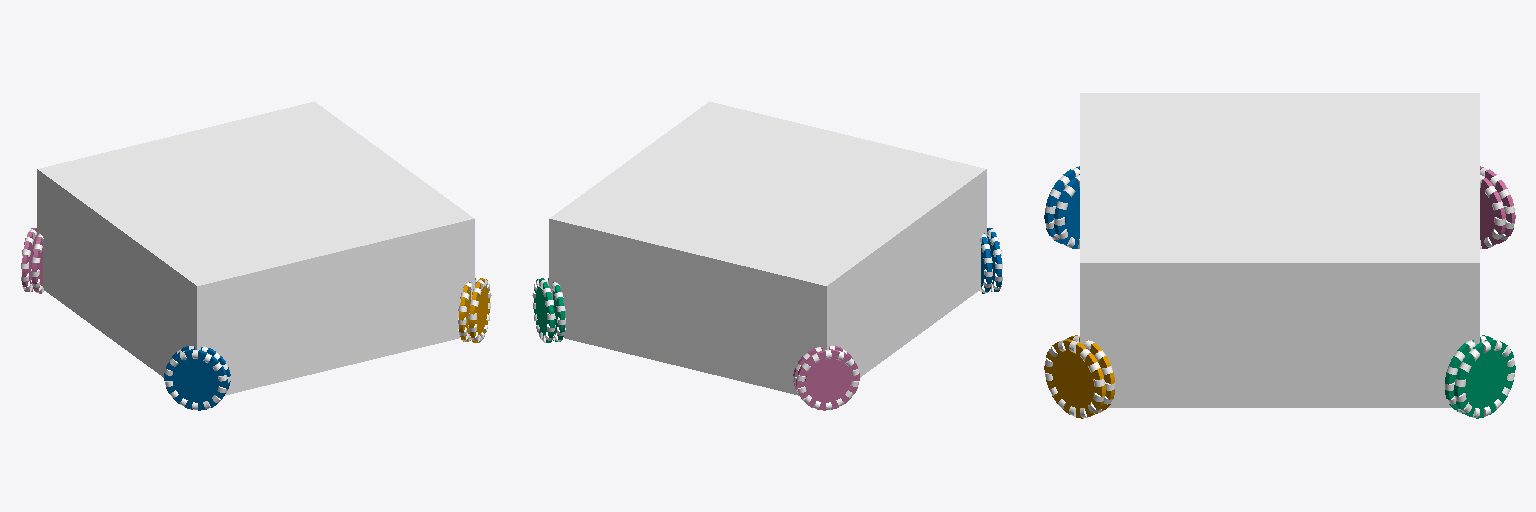
--- What the picture shows (computed from the rendered views, not written in the file) ---
3 views of the same robot in one strip: view 1: azimuth 30°, elevation 25°; view 2: azimuth 150°, elevation 25°; view 3: azimuth 270°, elevation 25° (orthographic).
Model ul_omnibot with 122 links and 121 joints (116 continuous, 5 fixed), rooted at base_link, posed every joint at zero.
Visible links, largest first — view 1: chassis, RR_wheel_link, FR_wheel_link, RL_wheel_link; view 2: chassis, RL_wheel_link, FL_wheel_link, RR_wheel_link; view 3: chassis, FL_wheel_link, FR_wheel_link, RL_wheel_link, RR_wheel_link.
Link boxes in pixels (left/top/right/bottom): chassis: left=37, top=101, right=474, bottom=395; RR_wheel_link: left=164, top=346, right=230, bottom=410; FR_wheel_link: left=459, top=278, right=489, bottom=342; RL_wheel_link: left=22, top=228, right=42, bottom=293; chassis: left=549, top=101, right=986, bottom=395; RL_wheel_link: left=793, top=346, right=859, bottom=410; FL_wheel_link: left=534, top=278, right=564, bottom=342; RR_wheel_link: left=981, top=228, right=1001, bottom=293; chassis: left=1080, top=93, right=1479, bottom=407; FL_wheel_link: left=1445, top=335, right=1515, bottom=418; FR_wheel_link: left=1044, top=335, right=1114, bottom=418; RL_wheel_link: left=1480, top=166, right=1515, bottom=248; RR_wheel_link: left=1044, top=166, right=1079, bottom=248.
Bounding box of the posed robot: 0.8828 × 0.8828 × 0.3127 m (x, y, z).
Meshes: 2 distinct files referenced, 116 mesh visuals loaded (2 Collada DAE).

URDF robot description (ul_omnibot):
<?xml version="1.0" ?>
<!-- =================================================================================== -->
<!-- |    This document was autogenerated by xacro from ul_omnibot.urdf.xacro          | -->
<!-- |    EDITING THIS FILE BY HAND IS NOT RECOMMENDED                                 | -->
<!-- =================================================================================== -->
<robot name="ul_omnibot" xmlns:xacro="http://www.ros.org/wiki/xacro">
  <!-- Specify some standard inertial calculations https://en.wikipedia.org/wiki/List_of_moments_of_inertia -->
  <!-- These make use of xacro's mathematical functionality -->
  <!--materials-->
  <material name="white">
    <color rgba="1. 1. 1. 1."/>
  </material>
  <material name="red">
    <color rgba="1 0.2 0.2 1"/>
  </material>
  <material name="blue">
    <color rgba="0.2 0.2 1 1"/>
  </material>
  <material name="grey">
    <color rgba="0.5 0.5 0.5 1."/>
  </material>
  <!---->
  <!--BASE-->
  <link name="base_link">
        </link>
  <!--CHASSIS-->
  <joint name="chassis_joint" type="fixed">
    <parent link="base_link"/>
    <child link="chassis"/>
    <origin xyz="-0.375 0.0 0.0"/>
  </joint>
  <link name="chassis">
    <visual>
      <origin xyz="0.375 0.0 0.15"/>
      <geometry>
        <box size="0.75 0.75 0.3"/>
      </geometry>
      <material name="white"/>
    </visual>
    <collision>
      <origin xyz="0.375 0.0 0.15"/>
      <geometry>
        <box size="0.75 0.75 0.3"/>
      </geometry>
    </collision>
    <inertial>
      <origin rpy="0.0 0.0 0.0" xyz="0.375 0.0 0.15"/>
      <mass value="100"/>
      <inertia ixx="5.437499999999999" ixy="0.0" ixz="0.0" iyy="5.437499999999999" iyz="0.0" izz="9.374999999999998"/>
    </inertial>
  </link>
  <!-- Gazebo colors -->
  <gazebo reference="chassis">
    <material>Gazebo/White</material>
  </gazebo>
  <joint name="FL_wheel_joint" type="continuous">
    <origin rpy="1.5707963267948966 0.0 2.356194490192345" xyz="0.375 0.375 0.0635"/>
    <parent link="base_link"/>
    <child link="FL_wheel_link"/>
    <limit effort="100" velocity="100"/>
    <axis xyz="0.0 0.0 -1."/>
  </joint>
  <link name="FL_wheel_link">
    <visual>
      <geometry>
        <mesh filename="package://ul_omnibot/description/meshes/hub.dae"/>
      </geometry>
    </visual>
    <collision>
      <geometry>
        <mesh filename="package://ul_omnibot/description/meshes/hub.stl"/>
      </geometry>
    </collision>
    <inertial>
      <origin xyz="0.0 -0.011 -0.0"/>
      <mass value="0.5"/>
      <inertia ixx="0.166667" ixy="0" ixz="0" iyy="0.166667" iyz="0" izz="0.166667"/>
    </inertial>
    <surface>
      <friction>
        <ode>
          <mu1>1</mu1>
          <mu2>1</mu2>
          <kp>1e15</kp>
          <kd>1e13</kd>
        </ode>
      </friction>
      <bounce>
        <restitution_coefficient>0</restitution_coefficient>
        <threshold>1e+06</threshold>
      </bounce>
      <contact>
        <ode>
          <max_vel>10</max_vel>
        </ode>
      </contact>
    </surface>
  </link>
  <joint name="FL_roller_group_joint" type="fixed">
    <origin rpy="-1.5707963267948966 0.0 0" xyz="0 0 0"/>
    <!-- <limit effort="1000.0" lower="0.0" upper="0.0" velocity="0.0"/>
                <axis xyz="0 0 0"/> -->
    <parent link="FL_wheel_link"/>
    <child link="FL_roller_group_link"/>
  </joint>
  <link name="FL_roller_group_link">
    <inertial>
      <mass value="0.00001"/>
      <inertia ixx="4.000000000000001e-12" ixy="0.0" ixz="0.0" iyy="4.000000000000001e-12" iyz="0.0" izz="4.000000000000001e-12"/>
      <origin xyz="0.0 0.0 0.0"/>
    </inertial>
  </link>
  <gazebo reference="FL_roller_group_link">
    <selfCollide>false</selfCollide>
    <material>Gazebo/Red</material>
  </gazebo>
  <joint name="FL_r1_roller_joint" type="continuous">
    <origin rpy="0 0 0" xyz="0 -0.0127 0.066041"/>
    <parent link="FL_roller_group_link"/>
    <child link="FL_r1_roller_link"/>
    <axis xyz="1 0 0"/>
  </joint>
  <link name="FL_r1_roller_link">
    <visual>
      <geometry>
        <mesh filename="package://ul_omnibot/description/meshes/roller.dae"/>
      </geometry>
      <material name="white"/>
    </visual>
    <collision>
      <max_contacts>10</max_contacts>
      <geometry>
        <mesh filename="package://ul_omnibot/description/meshes/roller.stl"/>
      </geometry>
    </collision>
    <inertial>
      <origin xyz="0.0 0.0 0.0"/>
      <mass value="0.009"/>
      <inertia ixx="0.166667" ixy="0" ixz="0" iyy="0.166667" iyz="0" izz="0.166667"/>
    </inertial>
    <surface>
      <friction>
        <ode>
          <mu>1</mu>
          <mu2>1</mu2>
          <kp>1e15</kp>
          <kd>1e13</kd>
        </ode>
        <torsional>
          <coefficient>1</coefficient>
          <patch_radius>0</patch_radius>
          <surface_radius>0</surface_radius>
          <use_patch_radius>1</use_patch_radius>
          <ode>
            <slip>0</slip>
          </ode>
        </torsional>
      </friction>
      <bounce>
        <restitution_coefficient>0</restitution_coefficient>
        <threshold>1e+06</threshold>
      </bounce>
      <contact>
        <ode>
          <max_vel>10</max_vel>
        </ode>
      </contact>
    </surface>
  </link>
  <joint name="FL_r2_roller_joint" type="continuous">
    <origin rpy="-3.14106 1.34635 -3.14117" xyz="0.064262 -0.0127 -0.014731"/>
    <parent link="FL_roller_group_link"/>
    <child link="FL_r2_roller_link"/>
    <axis xyz="1 0 0"/>
  </joint>
  <link name="FL_r2_roller_link">
    <visual>
      <geometry>
        <mesh filename="package://ul_omnibot/description/meshes/roller.dae"/>
      </geometry>
      <material name="white"/>
    </visual>
    <collision>
      <max_contacts>10</max_contacts>
      <geometry>
        <mesh filename="package://ul_omnibot/description/meshes/roller.stl"/>
      </geometry>
    </collision>
    <inertial>
      <origin xyz="0.0 0.0 0.0"/>
      <mass value="0.009"/>
      <inertia ixx="0.166667" ixy="0" ixz="0" iyy="0.166667" iyz="0" izz="0.166667"/>
    </inertial>
    <surface>
      <friction>
        <ode>
          <mu>1</mu>
          <mu2>1</mu2>
          <kp>1e15</kp>
          <kd>1e13</kd>
        </ode>
        <torsional>
          <coefficient>1</coefficient>
          <patch_radius>0</patch_radius>
          <surface_radius>0</surface_radius>
          <use_patch_radius>1</use_patch_radius>
          <ode>
            <slip>0</slip>
          </ode>
        </torsional>
      </friction>
      <bounce>
        <restitution_coefficient>0</restitution_coefficient>
        <threshold>1e+06</threshold>
      </bounce>
      <contact>
        <ode>
          <max_vel>10</max_vel>
        </ode>
      </contact>
    </surface>
  </link>
  <joint name="FL_r3_roller_joint" type="continuous">
    <origin rpy="-3.14106 -1.346396852 3.14117" xyz="-0.064262 -0.0127 -0.014731"/>
    <parent link="FL_roller_group_link"/>
    <child link="FL_r3_roller_link"/>
    <axis xyz="1 0 0"/>
  </joint>
  <link name="FL_r3_roller_link">
    <visual>
      <geometry>
        <mesh filename="package://ul_omnibot/description/meshes/roller.dae"/>
      </geometry>
      <material name="white"/>
    </visual>
    <collision>
      <max_contacts>10</max_contacts>
      <geometry>
        <mesh filename="package://ul_omnibot/description/meshes/roller.stl"/>
      </geometry>
    </collision>
    <inertial>
      <origin xyz="0.0 0.0 0.0"/>
      <mass value="0.009"/>
      <inertia ixx="0.166667" ixy="0" ixz="0" iyy="0.166667" iyz="0" izz="0.166667"/>
    </inertial>
    <surface>
      <friction>
        <ode>
          <mu>1</mu>
          <mu2>1</mu2>
          <kp>1e15</kp>
          <kd>1e13</kd>
        </ode>
        <torsional>
          <coefficient>1</coefficient>
          <patch_radius>0</patch_radius>
          <surface_radius>0</surface_radius>
          <use_patch_radius>1</use_patch_radius>
          <ode>
            <slip>0</slip>
          </ode>
        </torsional>
      </friction>
      <bounce>
        <restitution_coefficient>0</restitution_coefficient>
        <threshold>1e+06</threshold>
      </bounce>
      <contact>
        <ode>
          <max_vel>10</max_vel>
        </ode>
      </contact>
    </surface>
  </link>
  <joint name="FL_r4_roller_joint" type="continuous">
    <origin rpy="-3.14134 -0.897624 3.14147" xyz="-0.051562 -0.0127 -0.041147"/>
    <parent link="FL_roller_group_link"/>
    <child link="FL_r4_roller_link"/>
    <axis xyz="1 0 0"/>
  </joint>
  <link name="FL_r4_roller_link">
    <visual>
      <geometry>
        <mesh filename="package://ul_omnibot/description/meshes/roller.dae"/>
      </geometry>
      <material name="white"/>
    </visual>
    <collision>
      <max_contacts>10</max_contacts>
      <geometry>
        <mesh filename="package://ul_omnibot/description/meshes/roller.stl"/>
      </geometry>
    </collision>
    <inertial>
      <origin xyz="0.0 0.0 0.0"/>
      <mass value="0.009"/>
      <inertia ixx="0.166667" ixy="0" ixz="0" iyy="0.166667" iyz="0" izz="0.166667"/>
    </inertial>
    <surface>
      <friction>
        <ode>
          <mu>1</mu>
          <mu2>1</mu2>
          <kp>1e15</kp>
          <kd>1e13</kd>
        </ode>
        <torsional>
          <coefficient>1</coefficient>
          <patch_radius>0</patch_radius>
          <surface_radius>0</surface_radius>
          <use_patch_radius>1</use_patch_radius>
          <ode>
            <slip>0</slip>
          </ode>
        </torsional>
      </friction>
      <bounce>
        <restitution_coefficient>0</restitution_coefficient>
        <threshold>1e+06</threshold>
      </bounce>
      <contact>
        <ode>
          <max_vel>10</max_vel>
        </ode>
      </contact>
    </surface>
  </link>
  <joint name="FL_r5_roller_joint" type="continuous">
    <origin rpy="-3.14134 0.897624 -3.14147" xyz="0.051562 -0.0127 -0.041147"/>
    <parent link="FL_roller_group_link"/>
    <child link="FL_r5_roller_link"/>
    <axis xyz="1 0 0"/>
  </joint>
  <link name="FL_r5_roller_link">
    <visual>
      <geometry>
        <mesh filename="package://ul_omnibot/description/meshes/roller.dae"/>
      </geometry>
      <material name="white"/>
    </visual>
    <collision>
      <max_contacts>10</max_contacts>
      <geometry>
        <mesh filename="package://ul_omnibot/description/meshes/roller.stl"/>
      </geometry>
    </collision>
    <inertial>
      <origin xyz="0.0 0.0 0.0"/>
      <mass value="0.009"/>
      <inertia ixx="0.166667" ixy="0" ixz="0" iyy="0.166667" iyz="0" izz="0.166667"/>
    </inertial>
    <surface>
      <friction>
        <ode>
          <mu>1</mu>
          <mu2>1</mu2>
          <kp>1e15</kp>
          <kd>1e13</kd>
        </ode>
        <torsional>
          <coefficient>1</coefficient>
          <patch_radius>0</patch_radius>
          <surface_radius>0</surface_radius>
          <use_patch_radius>1</use_patch_radius>
          <ode>
            <slip>0</slip>
          </ode>
        </torsional>
      </friction>
      <bounce>
        <restitution_coefficient>0</restitution_coefficient>
        <threshold>1e+06</threshold>
      </bounce>
      <contact>
        <ode>
          <max_vel>10</max_vel>
        </ode>
      </contact>
    </surface>
  </link>
  <joint name="FL_r6_roller_joint" type="continuous">
    <origin rpy="-3.14139 -0.448725 3.14155" xyz="-0.028702 -0.0127 -0.059435"/>
    <parent link="FL_roller_group_link"/>
    <child link="FL_r6_roller_link"/>
    <axis xyz="1 0 0"/>
  </joint>
  <link name="FL_r6_roller_link">
    <visual>
      <geometry>
        <mesh filename="package://ul_omnibot/description/meshes/roller.dae"/>
      </geometry>
      <material name="white"/>
    </visual>
    <collision>
      <max_contacts>10</max_contacts>
      <geometry>
        <mesh filename="package://ul_omnibot/description/meshes/roller.stl"/>
      </geometry>
    </collision>
    <inertial>
      <origin xyz="0.0 0.0 0.0"/>
      <mass value="0.009"/>
      <inertia ixx="0.166667" ixy="0" ixz="0" iyy="0.166667" iyz="0" izz="0.166667"/>
    </inertial>
    <surface>
      <friction>
        <ode>
          <mu>1</mu>
          <mu2>1</mu2>
          <kp>1e15</kp>
          <kd>1e13</kd>
        </ode>
        <torsional>
          <coefficient>1</coefficient>
          <patch_radius>0</patch_radius>
          <surface_radius>0</surface_radius>
          <use_patch_radius>1</use_patch_radius>
          <ode>
            <slip>0</slip>
          </ode>
        </torsional>
      </friction>
      <bounce>
        <restitution_coefficient>0</restitution_coefficient>
        <threshold>1e+06</threshold>
      </bounce>
      <contact>
        <ode>
          <max_vel>10</max_vel>
        </ode>
      </contact>
    </surface>
  </link>
  <joint name="FL_r7_roller_joint" type="continuous">
    <origin rpy="-3.14139 0.448793 -3.14155" xyz="0.028702 -0.0127 -0.059435"/>
    <parent link="FL_roller_group_link"/>
    <child link="FL_r7_roller_link"/>
    <axis xyz="1 0 0"/>
  </joint>
  <link name="FL_r7_roller_link">
    <visual>
      <geometry>
        <mesh filename="package://ul_omnibot/description/meshes/roller.dae"/>
      </geometry>
      <material name="white"/>
    </visual>
    <collision>
      <max_contacts>10</max_contacts>
      <geometry>
        <mesh filename="package://ul_omnibot/description/meshes/roller.stl"/>
      </geometry>
    </collision>
    <inertial>
      <origin xyz="0.0 0.0 0.0"/>
      <mass value="0.009"/>
      <inertia ixx="0.166667" ixy="0" ixz="0" iyy="0.166667" iyz="0" izz="0.166667"/>
    </inertial>
    <surface>
      <friction>
        <ode>
          <mu>1</mu>
          <mu2>1</mu2>
          <kp>1e15</kp>
          <kd>1e13</kd>
        </ode>
        <torsional>
          <coefficient>1</coefficient>
          <patch_radius>0</patch_radius>
          <surface_radius>0</surface_radius>
          <use_patch_radius>1</use_patch_radius>
          <ode>
            <slip>0</slip>
          </ode>
        </torsional>
      </friction>
      <bounce>
        <restitution_coefficient>0</restitution_coefficient>
        <threshold>1e+06</threshold>
      </bounce>
      <contact>
        <ode>
          <max_vel>10</max_vel>
        </ode>
      </contact>
    </surface>
  </link>
  <joint name="FL_r8_roller_joint" type="continuous">
    <origin rpy="0 0.220958 0" xyz="0.014478 0.0127 0.064515"/>
    <parent link="FL_roller_group_link"/>
    <child link="FL_r8_roller_link"/>
    <axis xyz="1 0 0"/>
  </joint>
  <link name="FL_r8_roller_link">
    <visual>
      <geometry>
        <mesh filename="package://ul_omnibot/description/meshes/roller.dae"/>
      </geometry>
      <material name="white"/>
    </visual>
    <collision>
      <max_contacts>10</max_contacts>
      <geometry>
        <mesh filename="package://ul_omnibot/description/meshes/roller.stl"/>
      </geometry>
    </collision>
    <inertial>
      <origin xyz="0.0 0.0 0.0"/>
      <mass value="0.009"/>
      <inertia ixx="0.166667" ixy="0" ixz="0" iyy="0.166667" iyz="0" izz="0.166667"/>
    </inertial>
    <surface>
      <friction>
        <ode>
          <mu>1</mu>
          <mu2>1</mu2>
          <kp>1e15</kp>
          <kd>1e13</kd>
        </ode>
        <torsional>
          <coefficient>1</coefficient>
          <patch_radius>0</patch_radius>
          <surface_radius>0</surface_radius>
          <use_patch_radius>1</use_patch_radius>
          <ode>
            <slip>0</slip>
          </ode>
        </torsional>
      </friction>
      <bounce>
        <restitution_coefficient>0</restitution_coefficient>
        <threshold>1e+06</threshold>
      </bounce>
      <contact>
        <ode>
          <max_vel>10</max_vel>
        </ode>
      </contact>
    </surface>
  </link>
  <joint name="FL_r9_roller_joint" type="continuous">
    <origin rpy="-3.1414 -0.220957 3.14157" xyz="-0.014478 0.0127 -0.064517"/>
    <parent link="FL_roller_group_link"/>
    <child link="FL_r9_roller_link"/>
    <axis xyz="1 0 0"/>
  </joint>
  <link name="FL_r9_roller_link">
    <visual>
      <geometry>
        <mesh filename="package://ul_omnibot/description/meshes/roller.dae"/>
      </geometry>
      <material name="white"/>
    </visual>
    <collision>
      <max_contacts>10</max_contacts>
      <geometry>
        <mesh filename="package://ul_omnibot/description/meshes/roller.stl"/>
      </geometry>
    </collision>
    <inertial>
      <origin xyz="0.0 0.0 0.0"/>
      <mass value="0.009"/>
      <inertia ixx="0.166667" ixy="0" ixz="0" iyy="0.166667" iyz="0" izz="0.166667"/>
    </inertial>
    <surface>
      <friction>
        <ode>
          <mu>1</mu>
          <mu2>1</mu2>
          <kp>1e15</kp>
          <kd>1e13</kd>
        </ode>
        <torsional>
          <coefficient>1</coefficient>
          <patch_radius>0</patch_radius>
          <surface_radius>0</surface_radius>
          <use_patch_radius>1</use_patch_radius>
          <ode>
            <slip>0</slip>
          </ode>
        </torsional>
      </friction>
      <bounce>
        <restitution_coefficient>0</restitution_coefficient>
        <threshold>1e+06</threshold>
      </bounce>
      <contact>
        <ode>
          <max_vel>10</max_vel>
        </ode>
      </contact>
    </surface>
  </link>
  <joint name="FL_r10_roller_joint" type="continuous">
    <origin rpy="-2.7e-05 0.669682 -7.6e-05" xyz="0.040894 0.0127 0.051815"/>
    <parent link="FL_roller_group_link"/>
    <child link="FL_r10_roller_link"/>
    <axis xyz="1 0 0"/>
  </joint>
  <link name="FL_r10_roller_link">
    <visual>
      <geometry>
        <mesh filename="package://ul_omnibot/description/meshes/roller.dae"/>
      </geometry>
      <material name="white"/>
    </visual>
    <collision>
      <max_contacts>10</max_contacts>
      <geometry>
        <mesh filename="package://ul_omnibot/description/meshes/roller.stl"/>
      </geometry>
    </collision>
    <inertial>
      <origin xyz="0.0 0.0 0.0"/>
      <mass value="0.009"/>
      <inertia ixx="0.166667" ixy="0" ixz="0" iyy="0.166667" iyz="0" izz="0.166667"/>
    </inertial>
    <surface>
      <friction>
        <ode>
          <mu>1</mu>
          <mu2>1</mu2>
          <kp>1e15</kp>
          <kd>1e13</kd>
        </ode>
        <torsional>
          <coefficient>1</coefficient>
          <patch_radius>0</patch_radius>
          <surface_radius>0</surface_radius>
          <use_patch_radius>1</use_patch_radius>
          <ode>
            <slip>0</slip>
          </ode>
        </torsional>
      </friction>
      <bounce>
        <restitution_coefficient>0</restitution_coefficient>
        <threshold>1e+06</threshold>
      </bounce>
      <contact>
        <ode>
          <max_vel>10</max_vel>
        </ode>
      </contact>
    </surface>
  </link>
  <joint name="FL_r11_roller_joint" type="continuous">
    <origin rpy="-3.14137 -0.669677 3.14152" xyz="-0.040894 0.0127 -0.051817"/>
    <parent link="FL_roller_group_link"/>
    <child link="FL_r11_roller_link"/>
    <axis xyz="1 0 0"/>
  </joint>
  <link name="FL_r11_roller_link">
    <visual>
      <geometry>
        <mesh filename="package://ul_omnibot/description/meshes/roller.dae"/>
      </geometry>
      <material name="white"/>
    </visual>
    <collision>
      <max_contacts>10</max_contacts>
      <geometry>
        <mesh filename="package://ul_omnibot/description/meshes/roller.stl"/>
      </geometry>
    </collision>
    <inertial>
      <origin xyz="0.0 0.0 0.0"/>
      <mass value="0.009"/>
      <inertia ixx="0.166667" ixy="0" ixz="0" iyy="0.166667" iyz="0" izz="0.166667"/>
    </inertial>
    <surface>
      <friction>
        <ode>
          <mu>1</mu>
          <mu2>1</mu2>
          <kp>1e15</kp>
          <kd>1e13</kd>
        </ode>
        <torsional>
          <coefficient>1</coefficient>
          <patch_radius>0</patch_radius>
          <surface_radius>0</surface_radius>
          <use_patch_radius>1</use_patch_radius>
          <ode>
            <slip>0</slip>
          </ode>
        </torsional>
      </friction>
      <bounce>
        <restitution_coefficient>0</restitution_coefficient>
        <threshold>1e+06</threshold>
      </bounce>
      <contact>
        <ode>
          <max_vel>10</max_vel>
        </ode>
      </contact>
    </surface>
  </link>
  <joint name="FL_r12_roller_joint" type="continuous">
    <origin rpy="-0.000124 1.11858 -0.000198" xyz="0.059436 0.0127 0.028955"/>
    <parent link="FL_roller_group_link"/>
    <child link="FL_r12_roller_link"/>
    <axis xyz="1 0 0"/>
  </joint>
  <link name="FL_r12_roller_link">
    <visual>
      <geometry>
        <mesh filename="package://ul_omnibot/description/meshes/roller.dae"/>
      </geometry>
      <material name="white"/>
    </visual>
    <collision>
      <max_contacts>10</max_contacts>
      <geometry>
        <mesh filename="package://ul_omnibot/description/meshes/roller.stl"/>
      </geometry>
    </collision>
    <inertial>
      <origin xyz="0.0 0.0 0.0"/>
      <mass value="0.009"/>
      <inertia ixx="0.166667" ixy="0" ixz="0" iyy="0.166667" iyz="0" izz="0.166667"/>
    </inertial>
    <surface>
      <friction>
        <ode>
          <mu>1</mu>
          <mu2>1</mu2>
          <kp>1e15</kp>
          <kd>1e13</kd>
        </ode>
        <torsional>
          <coefficient>1</coefficient>
          <patch_radius>0</patch_radius>
          <surface_radius>0</surface_radius>
          <use_patch_radius>1</use_patch_radius>
          <ode>
            <slip>0</slip>
          </ode>
        </torsional>
      </friction>
      <bounce>
        <restitution_coefficient>0</restitution_coefficient>
        <threshold>1e+06</threshold>
      </bounce>
      <contact>
        <ode>
          <max_vel>10</max_vel>
        </ode>
      </contact>
    </surface>
  </link>
  <joint name="FL_r13_roller_joint" type="continuous">
    <origin rpy="-3.14128 -1.11858 3.14139" xyz="-0.059436 0.0127 -0.028957"/>
    <parent link="FL_roller_group_link"/>
    <child link="FL_r13_roller_link"/>
    <axis xyz="1 0 0"/>
  </joint>
  <link name="FL_r13_roller_link">
    <visual>
      <geometry>
        <mesh filename="package://ul_omnibot/description/meshes/roller.dae"/>
      </geometry>
      <material name="white"/>
    </visual>
    <collision>
      <max_contacts>10</max_contacts>
      <geometry>
        <mesh filename="package://ul_omnibot/description/meshes/roller.stl"/>
      </geometry>
    </collision>
    <inertial>
      <origin xyz="0.0 0.0 0.0"/>
      <mass value="0.009"/>
      <inertia ixx="0.166667" ixy="0" ixz="0" iyy="0.166667" iyz="0" izz="0.166667"/>
    </inertial>
    <surface>
      <friction>
        <ode>
          <mu>1</mu>
          <mu2>1</mu2>
          <kp>1e15</kp>
          <kd>1e13</kd>
        </ode>
        <torsional>
          <coefficient>1</coefficient>
          <patch_radius>0</patch_radius>
          <surface_radius>0</surface_radius>
          <use_patch_radius>1</use_patch_radius>
          <ode>
            <slip>0</slip>
          </ode>
        </torsional>
      </friction>
      <bounce>
        <restitution_coefficient>0</restitution_coefficient>
        <threshold>1e+06</threshold>
      </bounce>
      <contact>
        <ode>
          <max_vel>10</max_vel>
        </ode>
      </contact>
    </surface>
  </link>
  <joint name="FL_r14_roller_joint" type="continuous">
    <origin rpy="-0.785326 1.57066 -0.785422" xyz="0.06604 0.0127 -0.000001"/>
    <parent link="FL_roller_group_link"/>
    <child link="FL_r14_roller_link"/>
    <axis xyz="1 0 0"/>
  </joint>
  <link name="FL_r14_roller_link">
    <visual>
      <geometry>
        <mesh filename="package://ul_omnibot/description/meshes/roller.dae"/>
      </geometry>
      <material name="white"/>
    </visual>
    <collision>
      <max_contacts>10</max_contacts>
      <geometry>
        <mesh filename="package://ul_omnibot/description/meshes/roller.stl"/>
      </geometry>
    </collision>
    <inertial>
      <origin xyz="0.0 0.0 0.0"/>
      <mass value="0.009"/>
      <inertia ixx="0.166667" ixy="0" ixz="0" iyy="0.166667" iyz="0" izz="0.166667"/>
    </inertial>
    <surface>
      <friction>
        <ode>
          <mu>1</mu>
          <mu2>1</mu2>
          <kp>1e15</kp>
          <kd>1e13</kd>
        </ode>
        <torsional>
          <coefficient>1</coefficient>
          <patch_radius>0</patch_radius>
          <surface_radius>0</surface_radius>
          <use_patch_radius>1</use_patch_radius>
          <ode>
            <slip>0</slip>
          </ode>
        </torsional>
      </friction>
      <bounce>
        <restitution_coefficient>0</restitution_coefficient>
        <threshold>1e+06</threshold>
      </bounce>
      <contact>
        <ode>
          <max_vel>10</max_vel>
        </ode>
      </contact>
    </surface>
  </link>
  <joint name="FL_r15_roller_joint" type="continuous">
    <origin rpy="-0.785326 -1.57066 0.785422" xyz="-0.06604 0.0127 -0.000001"/>
    <parent link="FL_roller_group_link"/>
    <child link="FL_r15_roller_link"/>
    <axis xyz="1 0 0"/>
  </joint>
  <link name="FL_r15_roller_link">
    <visual>
      <geometry>
        <mesh filename="package://ul_omnibot/description/meshes/roller.dae"/>
      </geometry>
      <material name="white"/>
    </visual>
    <collision>
      <max_contacts>10</max_contacts>
      <geometry>
        <mesh filename="package://ul_omnibot/description/meshes/roller.stl"/>
      </geometry>
    </collision>
    <inertial>
      <origin xyz="0.0 0.0 0.0"/>
      <mass value="0.009"/>
      <inertia ixx="0.166667" ixy="0" ixz="0" iyy="0.166667" iyz="0" izz="0.166667"/>
    </inertial>
    <surface>
      <friction>
        <ode>
          <mu>1</mu>
          <mu2>1</mu2>
          <kp>1e15</kp>
          <kd>1e13</kd>
        </ode>
        <torsional>
          <coefficient>1</coefficient>
          <patch_radius>0</patch_radius>
          <surface_radius>0</surface_radius>
          <use_patch_radius>1</use_patch_radius>
          <ode>
            <slip>0</slip>
          </ode>
        </torsional>
      </friction>
      <bounce>
        <restitution_coefficient>0</restitution_coefficient>
        <threshold>1e+06</threshold>
      </bounce>
      <contact>
        <ode>
          <max_vel>10</max_vel>
        </ode>
      </contact>
    </surface>
  </link>
  <joint name="FL_r16_roller_joint" type="continuous">
    <origin rpy="-3e-06 -0.22794 2.2e-05" xyz="-0.014986 0.0127 0.064261"/>
    <parent link="FL_roller_group_link"/>
    <child link="FL_r16_roller_link"/>
    <axis xyz="1 0 0"/>
  </joint>
  <link name="FL_r16_roller_link">
    <visual>
      <geometry>
        <mesh filename="package://ul_omnibot/description/meshes/roller.dae"/>
      </geometry>
      <material name="white"/>
    </visual>
    <collision>
      <max_contacts>10</max_contacts>
      <geometry>
        <mesh filename="package://ul_omnibot/description/meshes/roller.stl"/>
      </geometry>
    </collision>
    <inertial>
      <origin xyz="0.0 0.0 0.0"/>
      <mass value="0.009"/>
      <inertia ixx="0.166667" ixy="0" ixz="0" iyy="0.166667" iyz="0" izz="0.166667"/>
    </inertial>
    <surface>
      <friction>
        <ode>
          <mu>1</mu>
          <mu2>1</mu2>
          <kp>1e15</kp>
          <kd>1e13</kd>
        </ode>
        <torsional>
          <coefficient>1</coefficient>
          <patch_radius>0</patch_radius>
          <surface_radius>0</surface_radius>
          <use_patch_radius>1</use_patch_radius>
          <ode>
            <slip>0</slip>
          </ode>
        </torsional>
      </friction>
      <bounce>
        <restitution_coefficient>0</restitution_coefficient>
        <threshold>1e+06</threshold>
      </bounce>
      <contact>
        <ode>
          <max_vel>10</max_vel>
        </ode>
      </contact>
    </surface>
  </link>
  <joint name="FL_r17_roller_joint" type="continuous">
    <origin rpy="-3.1414 0.227937 -3.14157" xyz="0.014986 0.0127 -0.064263"/>
    <parent link="FL_roller_group_link"/>
    <child link="FL_r17_roller_link"/>
    <axis xyz="1 0 0"/>
  </joint>
  <link name="FL_r17_roller_link">
    <visual>
      <geometry>
        <mesh filename="package://ul_omnibot/description/meshes/roller.dae"/>
      </geometry>
      <material name="white"/>
    </visual>
    <collision>
      <max_contacts>10</max_contacts>
      <geometry>
        <mesh filename="package://ul_omnibot/description/meshes/roller.stl"/>
      </geometry>
    </collision>
    <inertial>
      <origin xyz="0.0 0.0 0.0"/>
      <mass value="0.009"/>
      <inertia ixx="0.166667" ixy="0" ixz="0" iyy="0.166667" iyz="0" izz="0.166667"/>
    </inertial>
    <surface>
      <friction>
        <ode>
          <mu>1</mu>
          <mu2>1</mu2>
          <kp>1e15</kp>
          <kd>1e13</kd>
        </ode>
        <torsional>
          <coefficient>1</coefficient>
          <patch_radius>0</patch_radius>
          <surface_radius>0</surface_radius>
          <use_patch_radius>1</use_patch_radius>
          <ode>
            <slip>0</slip>
          </ode>
        </torsional>
      </friction>
      <bounce>
        <restitution_coefficient>0</restitution_coefficient>
        <threshold>1e+06</threshold>
      </bounce>
      <contact>
        <ode>
          <max_vel>10</max_vel>
        </ode>
      </contact>
    </surface>
  </link>
  <joint name="FL_r18_roller_joint" type="continuous">
    <origin rpy="-2.7e-05 -0.676664 7.7e-05" xyz="-0.041402 0.0127 0.051561"/>
    <parent link="FL_roller_group_link"/>
    <child link="FL_r18_roller_link"/>
    <axis xyz="1 0 0"/>
  </joint>
  <link name="FL_r18_roller_link">
    <visual>
      <geometry>
        <mesh filename="package://ul_omnibot/description/meshes/roller.dae"/>
      </geometry>
      <material name="white"/>
    </visual>
    <collision>
      <max_contacts>10</max_contacts>
      <geometry>
        <mesh filename="package://ul_omnibot/description/meshes/roller.stl"/>
      </geometry>
    </collision>
    <inertial>
      <origin xyz="0.0 0.0 0.0"/>
      <mass value="0.009"/>
      <inertia ixx="0.166667" ixy="0" ixz="0" iyy="0.166667" iyz="0" izz="0.166667"/>
    </inertial>
    <surface>
      <friction>
        <ode>
          <mu>1</mu>
          <mu2>1</mu2>
          <kp>1e15</kp>
          <kd>1e13</kd>
        </ode>
        <torsional>
          <coefficient>1</coefficient>
          <patch_radius>0</patch_radius>
          <surface_radius>0</surface_radius>
          <use_patch_radius>1</use_patch_radius>
          <ode>
            <slip>0</slip>
          </ode>
        </torsional>
      </friction>
      <bounce>
        <restitution_coefficient>0</restitution_coefficient>
        <threshold>1e+06</threshold>
      </bounce>
      <contact>
        <ode>
          <max_vel>10</max_vel>
        </ode>
      </contact>
    </surface>
  </link>
  <joint name="FL_r19_roller_joint" type="continuous">
    <origin rpy="-3.14137 0.676607 -3.14152" xyz="0.041402 0.0127 -0.051563"/>
    <parent link="FL_roller_group_link"/>
    <child link="FL_r19_roller_link"/>
    <axis xyz="1 0 0"/>
  </joint>
  <link name="FL_r19_roller_link">
    <visual>
      <geometry>
        <mesh filename="package://ul_omnibot/description/meshes/roller.dae"/>
      </geometry>
      <material name="white"/>
    </visual>
    <collision>
      <max_contacts>10</max_contacts>
      <geometry>
        <mesh filename="package://ul_omnibot/description/meshes/roller.stl"/>
      </geometry>
    </collision>
    <inertial>
      <origin xyz="0.0 0.0 0.0"/>
      <mass value="0.009"/>
      <inertia ixx="0.166667" ixy="0" ixz="0" iyy="0.166667" iyz="0" izz="0.166667"/>
    </inertial>
    <surface>
      <friction>
        <ode>
          <mu>1</mu>
          <mu2>1</mu2>
          <kp>1e15</kp>
          <kd>1e13</kd>
        </ode>
        <torsional>
          <coefficient>1</coefficient>
          <patch_radius>0</patch_radius>
          <surface_radius>0</surface_radius>
          <use_patch_radius>1</use_patch_radius>
          <ode>
            <slip>0</slip>
          </ode>
        </torsional>
      </friction>
      <bounce>
        <restitution_coefficient>0</restitution_coefficient>
        <threshold>1e+06</threshold>
      </bounce>
      <contact>
        <ode>
          <max_vel>10</max_vel>
        </ode>
      </contact>
    </surface>
  </link>
  <joint name="FL_r20_roller_joint" type="continuous">
    <origin rpy="-3.14123 1.1952 -3.14135" xyz="0.05969 0.0127 -0.028449"/>
    <parent link="FL_roller_group_link"/>
    <child link="FL_r20_roller_link"/>
    <axis xyz="1 0 0"/>
  </joint>
  <link name="FL_r20_roller_link">
    <visual>
      <geometry>
        <mesh filename="package://ul_omnibot/description/meshes/roller.dae"/>
      </geometry>
      <material name="white"/>
    </visual>
    <collision>
      <max_contacts>10</max_contacts>
      <geometry>
        <mesh filename="package://ul_omnibot/description/meshes/roller.stl"/>
      </geometry>
    </collision>
    <inertial>
      <origin xyz="0.0 0.0 0.0"/>
      <mass value="0.009"/>
      <inertia ixx="0.166667" ixy="0" ixz="0" iyy="0.166667" iyz="0" izz="0.166667"/>
    </inertial>
    <surface>
      <friction>
        <ode>
          <mu>1</mu>
          <mu2>1</mu2>
          <kp>1e15</kp>
          <kd>1e13</kd>
        </ode>
        <torsional>
          <coefficient>1</coefficient>
          <patch_radius>0</patch_radius>
          <surface_radius>0</surface_radius>
          <use_patch_radius>1</use_patch_radius>
          <ode>
            <slip>0</slip>
          </ode>
        </torsional>
      </friction>
      <bounce>
        <restitution_coefficient>0</restitution_coefficient>
        <threshold>1e+06</threshold>
      </bounce>
      <contact>
        <ode>
          <max_vel>10</max_vel>
        </ode>
      </contact>
    </surface>
  </link>
  <joint name="FL_r21_roller_joint" type="continuous">
    <origin rpy="-1.1e-05 -0.448724 4.6e-05" xyz="-0.028702 -0.0127 0.059437"/>
    <parent link="FL_roller_group_link"/>
    <child link="FL_r21_roller_link"/>
    <axis xyz="1 0 0"/>
  </joint>
  <link name="FL_r21_roller_link">
    <visual>
      <geometry>
        <mesh filename="package://ul_omnibot/description/meshes/roller.dae"/>
      </geometry>
      <material name="white"/>
    </visual>
    <collision>
      <max_contacts>10</max_contacts>
      <geometry>
        <mesh filename="package://ul_omnibot/description/meshes/roller.stl"/>
      </geometry>
    </collision>
    <inertial>
      <origin xyz="0.0 0.0 0.0"/>
      <mass value="0.009"/>
      <inertia ixx="0.166667" ixy="0" ixz="0" iyy="0.166667" iyz="0" izz="0.166667"/>
    </inertial>
    <surface>
      <friction>
        <ode>
          <mu>1</mu>
          <mu2>1</mu2>
          <kp>1e15</kp>
          <kd>1e13</kd>
        </ode>
        <torsional>
          <coefficient>1</coefficient>
          <patch_radius>0</patch_radius>
          <surface_radius>0</surface_radius>
          <use_patch_radius>1</use_patch_radius>
          <ode>
            <slip>0</slip>
          </ode>
        </torsional>
      </friction>
      <bounce>
        <restitution_coefficient>0</restitution_coefficient>
        <threshold>1e+06</threshold>
      </bounce>
      <contact>
        <ode>
          <max_vel>10</max_vel>
        </ode>
      </contact>
    </surface>
  </link>
  <joint name="FL_r22_roller_joint" type="continuous">
    <origin rpy="-0.000123 -1.11701 0.000198" xyz="-0.05969 0.0127 0.028447"/>
    <parent link="FL_roller_group_link"/>
    <child link="FL_r22_roller_link"/>
    <axis xyz="1 0 0"/>
  </joint>
  <link name="FL_r22_roller_link">
    <visual>
      <geometry>
        <mesh filename="package://ul_omnibot/description/meshes/roller.dae"/>
      </geometry>
      <material name="white"/>
    </visual>
    <collision>
      <max_contacts>10</max_contacts>
      <geometry>
        <mesh filename="package://ul_omnibot/description/meshes/roller.stl"/>
      </geometry>
    </collision>
    <inertial>
      <origin xyz="0.0 0.0 0.0"/>
      <mass value="0.009"/>
      <inertia ixx="0.166667" ixy="0" ixz="0" iyy="0.166667" iyz="0" izz="0.166667"/>
    </inertial>
    <surface>
      <friction>
        <ode>
          <mu>1</mu>
          <mu2>1</mu2>
          <kp>1e15</kp>
          <kd>1e13</kd>
        </ode>
        <torsional>
          <coefficient>1</coefficient>
          <patch_radius>0</patch_radius>
          <surface_radius>0</surface_radius>
          <use_patch_radius>1</use_patch_radius>
          <ode>
            <slip>0</slip>
          </ode>
        </torsional>
      </friction>
      <bounce>
        <restitution_coefficient>0</restitution_coefficient>
        <threshold>1e+06</threshold>
      </bounce>
      <contact>
        <ode>
          <max_vel>10</max_vel>
        </ode>
      </contact>
    </surface>
  </link>
  <joint name="FL_r23_roller_joint" type="continuous">
    <origin rpy="-1.1e-05 0.448724 -4.6e-05" xyz="0.028702 -0.0127 0.059437"/>
    <parent link="FL_roller_group_link"/>
    <child link="FL_r23_roller_link"/>
    <axis xyz="1 0 0"/>
  </joint>
  <link name="FL_r23_roller_link">
    <visual>
      <geometry>
        <mesh filename="package://ul_omnibot/description/meshes/roller.dae"/>
      </geometry>
      <material name="white"/>
    </visual>
    <collision>
      <max_contacts>10</max_contacts>
      <geometry>
        <mesh filename="package://ul_omnibot/description/meshes/roller.stl"/>
      </geometry>
    </collision>
    <inertial>
      <origin xyz="0.0 0.0 0.0"/>
      <mass value="0.009"/>
      <inertia ixx="0.166667" ixy="0" ixz="0" iyy="0.166667" iyz="0" izz="0.166667"/>
    </inertial>
    <surface>
      <friction>
        <ode>
          <mu>1</mu>
          <mu2>1</mu2>
          <kp>1e15</kp>
          <kd>1e13</kd>
        </ode>
        <torsional>
          <coefficient>1</coefficient>
          <patch_radius>0</patch_radius>
          <surface_radius>0</surface_radius>
          <use_patch_radius>1</use_patch_radius>
          <ode>
            <slip>0</slip>
          </ode>
        </torsional>
      </friction>
      <bounce>
        <restitution_coefficient>0</restitution_coefficient>
        <threshold>1e+06</threshold>
      </bounce>
      <contact>
        <ode>
          <max_vel>10</max_vel>
        </ode>
      </contact>
    </surface>
  </link>
  <joint name="FL_r24_roller_joint" type="continuous">
    <origin rpy="-5.8e-05 -0.897622 0.000121" xyz="-0.051562 -0.0127 0.041149"/>
    <parent link="FL_roller_group_link"/>
    <child link="FL_r24_roller_link"/>
    <axis xyz="1 0 0"/>
  </joint>
  <link name="FL_r24_roller_link">
    <visual>
      <geometry>
        <mesh filename="package://ul_omnibot/description/meshes/roller.dae"/>
      </geometry>
      <material name="white"/>
    </visual>
    <collision>
      <max_contacts>10</max_contacts>
      <geometry>
        <mesh filename="package://ul_omnibot/description/meshes/roller.stl"/>
      </geometry>
    </collision>
    <inertial>
      <origin xyz="0.0 0.0 0.0"/>
      <mass value="0.009"/>
      <inertia ixx="0.166667" ixy="0" ixz="0" iyy="0.166667" iyz="0" izz="0.166667"/>
    </inertial>
    <surface>
      <friction>
        <ode>
          <mu>1</mu>
          <mu2>1</mu2>
          <kp>1e15</kp>
          <kd>1e13</kd>
        </ode>
        <torsional>
          <coefficient>1</coefficient>
          <patch_radius>0</patch_radius>
          <surface_radius>0</surface_radius>
          <use_patch_radius>1</use_patch_radius>
          <ode>
            <slip>0</slip>
          </ode>
        </torsional>
      </friction>
      <bounce>
        <restitution_coefficient>0</restitution_coefficient>
        <threshold>1e+06</threshold>
      </bounce>
      <contact>
        <ode>
          <max_vel>10</max_vel>
        </ode>
      </contact>
    </surface>
  </link>
  <joint name="FL_r25_roller_joint" type="continuous">
    <origin rpy="-5.8e-05 0.897622 -0.000121" xyz="0.051562 -0.0127 0.041149"/>
    <parent link="FL_roller_group_link"/>
    <child link="FL_r25_roller_link"/>
    <axis xyz="1 0 0"/>
  </joint>
  <link name="FL_r25_roller_link">
    <visual>
      <geometry>
        <mesh filename="package://ul_omnibot/description/meshes/roller.dae"/>
      </geometry>
      <material name="white"/>
    </visual>
    <collision>
      <max_contacts>10</max_contacts>
      <geometry>
        <mesh filename="package://ul_omnibot/description/meshes/roller.stl"/>
      </geometry>
    </collision>
    <inertial>
      <origin xyz="0.0 0.0 0.0"/>
      <mass value="0.009"/>
      <inertia ixx="0.166667" ixy="0" ixz="0" iyy="0.166667" iyz="0" izz="0.166667"/>
    </inertial>
    <surface>
      <friction>
        <ode>
          <mu>1</mu>
          <mu2>1</mu2>
          <kp>1e15</kp>
          <kd>1e13</kd>
        </ode>
        <torsional>
          <coefficient>1</coefficient>
          <patch_radius>0</patch_radius>
          <surface_radius>0</surface_radius>
          <use_patch_radius>1</use_patch_radius>
          <ode>
            <slip>0</slip>
          </ode>
        </torsional>
      </friction>
      <bounce>
        <restitution_coefficient>0</restitution_coefficient>
        <threshold>1e+06</threshold>
      </bounce>
      <contact>
        <ode>
          <max_vel>10</max_vel>
        </ode>
      </contact>
    </surface>
  </link>
  <joint name="FL_r26_roller_joint" type="continuous">
    <origin rpy="-0.000337 -1.34635 0.000422" xyz="-0.064262 -0.0127 0.014733"/>
    <parent link="FL_roller_group_link"/>
    <child link="FL_r26_roller_link"/>
    <axis xyz="1 0 0"/>
  </joint>
  <link name="FL_r26_roller_link">
    <visual>
      <geometry>
        <mesh filename="package://ul_omnibot/description/meshes/roller.dae"/>
      </geometry>
      <material name="white"/>
    </visual>
    <collision>
      <max_contacts>10</max_contacts>
      <geometry>
        <mesh filename="package://ul_omnibot/description/meshes/roller.stl"/>
      </geometry>
    </collision>
    <inertial>
      <origin xyz="0.0 0.0 0.0"/>
      <mass value="0.009"/>
      <inertia ixx="0.166667" ixy="0" ixz="0" iyy="0.166667" iyz="0" izz="0.166667"/>
    </inertial>
    <surface>
      <friction>
        <ode>
          <mu>1</mu>
          <mu2>1</mu2>
          <kp>1e15</kp>
          <kd>1e13</kd>
        </ode>
        <torsional>
          <coefficient>1</coefficient>
          <patch_radius>0</patch_radius>
          <surface_radius>0</surface_radius>
          <use_patch_radius>1</use_patch_radius>
          <ode>
            <slip>0</slip>
          </ode>
        </torsional>
      </friction>
      <bounce>
        <restitution_coefficient>0</restitution_coefficient>
        <threshold>1e+06</threshold>
      </bounce>
      <contact>
        <ode>
          <max_vel>10</max_vel>
        </ode>
      </contact>
    </surface>
  </link>
  <joint name="FL_r27_roller_joint" type="continuous">
    <origin rpy="-0.000337 1.34635 -0.000422" xyz="0.064262 -0.0127 0.014733"/>
    <parent link="FL_roller_group_link"/>
    <child link="FL_r27_roller_link"/>
    <axis xyz="1 0 0"/>
  </joint>
  <link name="FL_r27_roller_link">
    <visual>
      <geometry>
        <mesh filename="package://ul_omnibot/description/meshes/roller.dae"/>
      </geometry>
      <material name="white"/>
    </visual>
    <collision>
      <max_contacts>10</max_contacts>
      <geometry>
        <mesh filename="package://ul_omnibot/description/meshes/roller.stl"/>
      </geometry>
    </collision>
    <inertial>
      <origin xyz="0.0 0.0 0.0"/>
      <mass value="0.009"/>
      <inertia ixx="0.166667" ixy="0" ixz="0" iyy="0.166667" iyz="0" izz="0.166667"/>
    </inertial>
    <surface>
      <friction>
        <ode>
          <mu>1</mu>
          <mu2>1</mu2>
          <kp>1e15</kp>
          <kd>1e13</kd>
        </ode>
        <torsional>
          <coefficient>1</coefficient>
          <patch_radius>0</patch_radius>
          <surface_radius>0</surface_radius>
          <use_patch_radius>1</use_patch_radius>
          <ode>
            <slip>0</slip>
          </ode>
        </torsional>
      </friction>
      <bounce>
        <restitution_coefficient>0</restitution_coefficient>
        <threshold>1e+06</threshold>
      </bounce>
      <contact>
        <ode>
          <max_vel>10</max_vel>
        </ode>
      </contact>
    </surface>
  </link>
  <joint name="FL_r28_roller_joint" type="continuous">
    <origin rpy="-3.1414 3e-06 -3.14159" xyz="0 -0.0127 -0.066039"/>
    <parent link="FL_roller_group_link"/>
    <child link="FL_r28_roller_link"/>
    <axis xyz="1 0 0"/>
  </joint>
  <link name="FL_r28_roller_link">
    <visual>
      <geometry>
        <mesh filename="package://ul_omnibot/description/meshes/roller.dae"/>
      </geometry>
      <material name="white"/>
    </visual>
    <collision>
      <max_contacts>10</max_contacts>
      <geometry>
        <mesh filename="package://ul_omnibot/description/meshes/roller.stl"/>
      </geometry>
    </collision>
    <inertial>
      <origin xyz="0.0 0.0 0.0"/>
      <mass value="0.009"/>
      <inertia ixx="0.166667" ixy="0" ixz="0" iyy="0.166667" iyz="0" izz="0.166667"/>
    </inertial>
    <surface>
      <friction>
        <ode>
          <mu>1</mu>
          <mu2>1</mu2>
          <kp>1e15</kp>
          <kd>1e13</kd>
        </ode>
        <torsional>
          <coefficient>1</coefficient>
          <patch_radius>0</patch_radius>
          <surface_radius>0</surface_radius>
          <use_patch_radius>1</use_patch_radius>
          <ode>
            <slip>0</slip>
          </ode>
        </torsional>
      </friction>
      <bounce>
        <restitution_coefficient>0</restitution_coefficient>
        <threshold>1e+06</threshold>
      </bounce>
      <contact>
        <ode>
          <max_vel>10</max_vel>
        </ode>
      </contact>
    </surface>
  </link>
  <transmission name="FL_wheel_trans">
    <type>transmission_interface/SimpleTransmission</type>
    <joint name="FL_wheel_joint">
      <hardware_interface>hardware_interface/VelocityJointInterface</hardware_interface>
    </joint>
    <actuator name="FL_wheel_motor">
      <hardware_interface>hardware_interface/VelocityJointInterface</hardware_interface>
      <mechanicalReduction>30</mechanicalReduction>
    </actuator>
  </transmission>
  <gazebo reference="FL_wheel_link">
    <selfCollide>false</selfCollide>
    <mu1 value="0.8"/>
    <mu2 value="0.8"/>
    <material>Gazebo/Red</material>
  </gazebo>
  <joint name="FR_wheel_joint" type="continuous">
    <origin rpy="1.5707963267948966 0.0 0.7853981633974483" xyz="0.375 -0.375 0.0635"/>
    <parent link="base_link"/>
    <child link="FR_wheel_link"/>
    <limit effort="100" velocity="100"/>
    <axis xyz="0.0 0.0 -1."/>
  </joint>
  <link name="FR_wheel_link">
    <visual>
      <geometry>
        <mesh filename="package://ul_omnibot/description/meshes/hub.dae"/>
      </geometry>
    </visual>
    <collision>
      <geometry>
        <mesh filename="package://ul_omnibot/description/meshes/hub.stl"/>
      </geometry>
    </collision>
    <inertial>
      <origin xyz="0.0 -0.011 -0.0"/>
      <mass value="0.5"/>
      <inertia ixx="0.166667" ixy="0" ixz="0" iyy="0.166667" iyz="0" izz="0.166667"/>
    </inertial>
    <surface>
      <friction>
        <ode>
          <mu1>1</mu1>
          <mu2>1</mu2>
          <kp>1e15</kp>
          <kd>1e13</kd>
        </ode>
      </friction>
      <bounce>
        <restitution_coefficient>0</restitution_coefficient>
        <threshold>1e+06</threshold>
      </bounce>
      <contact>
        <ode>
          <max_vel>10</max_vel>
        </ode>
      </contact>
    </surface>
  </link>
  <joint name="FR_roller_group_joint" type="fixed">
    <origin rpy="-1.5707963267948966 0.0 0" xyz="0 0 0"/>
    <!-- <limit effort="1000.0" lower="0.0" upper="0.0" velocity="0.0"/>
                <axis xyz="0 0 0"/> -->
    <parent link="FR_wheel_link"/>
    <child link="FR_roller_group_link"/>
  </joint>
  <link name="FR_roller_group_link">
    <inertial>
      <mass value="0.00001"/>
      <inertia ixx="4.000000000000001e-12" ixy="0.0" ixz="0.0" iyy="4.000000000000001e-12" iyz="0.0" izz="4.000000000000001e-12"/>
      <origin xyz="0.0 0.0 0.0"/>
    </inertial>
  </link>
  <gazebo reference="FR_roller_group_link">
    <selfCollide>false</selfCollide>
    <material>Gazebo/Red</material>
  </gazebo>
  <joint name="FR_r1_roller_joint" type="continuous">
    <origin rpy="0 0 0" xyz="0 -0.0127 0.066041"/>
    <parent link="FR_roller_group_link"/>
    <child link="FR_r1_roller_link"/>
    <axis xyz="1 0 0"/>
  </joint>
  <link name="FR_r1_roller_link">
    <visual>
      <geometry>
        <mesh filename="package://ul_omnibot/description/meshes/roller.dae"/>
      </geometry>
      <material name="white"/>
    </visual>
    <collision>
      <max_contacts>10</max_contacts>
      <geometry>
        <mesh filename="package://ul_omnibot/description/meshes/roller.stl"/>
      </geometry>
    </collision>
    <inertial>
      <origin xyz="0.0 0.0 0.0"/>
      <mass value="0.009"/>
      <inertia ixx="0.166667" ixy="0" ixz="0" iyy="0.166667" iyz="0" izz="0.166667"/>
    </inertial>
    <surface>
      <friction>
        <ode>
          <mu>1</mu>
          <mu2>1</mu2>
          <kp>1e15</kp>
          <kd>1e13</kd>
        </ode>
        <torsional>
          <coefficient>1</coefficient>
          <patch_radius>0</patch_radius>
          <surface_radius>0</surface_radius>
          <use_patch_radius>1</use_patch_radius>
          <ode>
            <slip>0</slip>
          </ode>
        </torsional>
      </friction>
      <bounce>
        <restitution_coefficient>0</restitution_coefficient>
        <threshold>1e+06</threshold>
      </bounce>
      <contact>
        <ode>
          <max_vel>10</max_vel>
        </ode>
      </contact>
    </surface>
  </link>
  <joint name="FR_r2_roller_joint" type="continuous">
    <origin rpy="-3.14106 1.34635 -3.14117" xyz="0.064262 -0.0127 -0.014731"/>
    <parent link="FR_roller_group_link"/>
    <child link="FR_r2_roller_link"/>
    <axis xyz="1 0 0"/>
  </joint>
  <link name="FR_r2_roller_link">
    <visual>
      <geometry>
        <mesh filename="package://ul_omnibot/description/meshes/roller.dae"/>
      </geometry>
      <material name="white"/>
    </visual>
    <collision>
      <max_contacts>10</max_contacts>
      <geometry>
        <mesh filename="package://ul_omnibot/description/meshes/roller.stl"/>
      </geometry>
    </collision>
    <inertial>
      <origin xyz="0.0 0.0 0.0"/>
      <mass value="0.009"/>
      <inertia ixx="0.166667" ixy="0" ixz="0" iyy="0.166667" iyz="0" izz="0.166667"/>
    </inertial>
    <surface>
      <friction>
        <ode>
          <mu>1</mu>
          <mu2>1</mu2>
          <kp>1e15</kp>
          <kd>1e13</kd>
        </ode>
        <torsional>
          <coefficient>1</coefficient>
          <patch_radius>0</patch_radius>
          <surface_radius>0</surface_radius>
          <use_patch_radius>1</use_patch_radius>
          <ode>
            <slip>0</slip>
          </ode>
        </torsional>
      </friction>
      <bounce>
        <restitution_coefficient>0</restitution_coefficient>
        <threshold>1e+06</threshold>
      </bounce>
      <contact>
        <ode>
          <max_vel>10</max_vel>
        </ode>
      </contact>
    </surface>
  </link>
  <joint name="FR_r3_roller_joint" type="continuous">
    <origin rpy="-3.14106 -1.346396852 3.14117" xyz="-0.064262 -0.0127 -0.014731"/>
    <parent link="FR_roller_group_link"/>
    <child link="FR_r3_roller_link"/>
    <axis xyz="1 0 0"/>
  </joint>
  <link name="FR_r3_roller_link">
    <visual>
      <geometry>
        <mesh filename="package://ul_omnibot/description/meshes/roller.dae"/>
      </geometry>
      <material name="white"/>
    </visual>
    <collision>
      <max_contacts>10</max_contacts>
      <geometry>
        <mesh filename="package://ul_omnibot/description/meshes/roller.stl"/>
      </geometry>
    </collision>
    <inertial>
      <origin xyz="0.0 0.0 0.0"/>
      <mass value="0.009"/>
      <inertia ixx="0.166667" ixy="0" ixz="0" iyy="0.166667" iyz="0" izz="0.166667"/>
    </inertial>
    <surface>
      <friction>
        <ode>
          <mu>1</mu>
          <mu2>1</mu2>
          <kp>1e15</kp>
          <kd>1e13</kd>
        </ode>
        <torsional>
          <coefficient>1</coefficient>
          <patch_radius>0</patch_radius>
          <surface_radius>0</surface_radius>
          <use_patch_radius>1</use_patch_radius>
          <ode>
            <slip>0</slip>
          </ode>
        </torsional>
      </friction>
      <bounce>
        <restitution_coefficient>0</restitution_coefficient>
        <threshold>1e+06</threshold>
      </bounce>
      <contact>
        <ode>
          <max_vel>10</max_vel>
        </ode>
      </contact>
    </surface>
  </link>
  <joint name="FR_r4_roller_joint" type="continuous">
    <origin rpy="-3.14134 -0.897624 3.14147" xyz="-0.051562 -0.0127 -0.041147"/>
    <parent link="FR_roller_group_link"/>
    <child link="FR_r4_roller_link"/>
    <axis xyz="1 0 0"/>
  </joint>
  <link name="FR_r4_roller_link">
    <visual>
      <geometry>
        <mesh filename="package://ul_omnibot/description/meshes/roller.dae"/>
      </geometry>
      <material name="white"/>
    </visual>
    <collision>
      <max_contacts>10</max_contacts>
      <geometry>
        <mesh filename="package://ul_omnibot/description/meshes/roller.stl"/>
      </geometry>
    </collision>
    <inertial>
      <origin xyz="0.0 0.0 0.0"/>
      <mass value="0.009"/>
      <inertia ixx="0.166667" ixy="0" ixz="0" iyy="0.166667" iyz="0" izz="0.166667"/>
    </inertial>
    <surface>
      <friction>
        <ode>
          <mu>1</mu>
          <mu2>1</mu2>
          <kp>1e15</kp>
          <kd>1e13</kd>
        </ode>
        <torsional>
          <coefficient>1</coefficient>
          <patch_radius>0</patch_radius>
          <surface_radius>0</surface_radius>
          <use_patch_radius>1</use_patch_radius>
          <ode>
            <slip>0</slip>
          </ode>
        </torsional>
      </friction>
      <bounce>
        <restitution_coefficient>0</restitution_coefficient>
        <threshold>1e+06</threshold>
      </bounce>
      <contact>
        <ode>
          <max_vel>10</max_vel>
        </ode>
      </contact>
    </surface>
  </link>
  <joint name="FR_r5_roller_joint" type="continuous">
    <origin rpy="-3.14134 0.897624 -3.14147" xyz="0.051562 -0.0127 -0.041147"/>
    <parent link="FR_roller_group_link"/>
    <child link="FR_r5_roller_link"/>
    <axis xyz="1 0 0"/>
  </joint>
  <link name="FR_r5_roller_link">
    <visual>
      <geometry>
        <mesh filename="package://ul_omnibot/description/meshes/roller.dae"/>
      </geometry>
      <material name="white"/>
    </visual>
    <collision>
      <max_contacts>10</max_contacts>
      <geometry>
        <mesh filename="package://ul_omnibot/description/meshes/roller.stl"/>
      </geometry>
    </collision>
    <inertial>
      <origin xyz="0.0 0.0 0.0"/>
      <mass value="0.009"/>
      <inertia ixx="0.166667" ixy="0" ixz="0" iyy="0.166667" iyz="0" izz="0.166667"/>
    </inertial>
    <surface>
      <friction>
        <ode>
          <mu>1</mu>
          <mu2>1</mu2>
          <kp>1e15</kp>
          <kd>1e13</kd>
        </ode>
        <torsional>
          <coefficient>1</coefficient>
          <patch_radius>0</patch_radius>
          <surface_radius>0</surface_radius>
          <use_patch_radius>1</use_patch_radius>
          <ode>
            <slip>0</slip>
          </ode>
        </torsional>
      </friction>
      <bounce>
        <restitution_coefficient>0</restitution_coefficient>
        <threshold>1e+06</threshold>
      </bounce>
      <contact>
        <ode>
          <max_vel>10</max_vel>
        </ode>
      </contact>
    </surface>
  </link>
  <joint name="FR_r6_roller_joint" type="continuous">
    <origin rpy="-3.14139 -0.448725 3.14155" xyz="-0.028702 -0.0127 -0.059435"/>
    <parent link="FR_roller_group_link"/>
    <child link="FR_r6_roller_link"/>
    <axis xyz="1 0 0"/>
  </joint>
  <link name="FR_r6_roller_link">
    <visual>
      <geometry>
        <mesh filename="package://ul_omnibot/description/meshes/roller.dae"/>
      </geometry>
      <material name="white"/>
    </visual>
    <collision>
      <max_contacts>10</max_contacts>
      <geometry>
        <mesh filename="package://ul_omnibot/description/meshes/roller.stl"/>
      </geometry>
    </collision>
    <inertial>
      <origin xyz="0.0 0.0 0.0"/>
      <mass value="0.009"/>
      <inertia ixx="0.166667" ixy="0" ixz="0" iyy="0.166667" iyz="0" izz="0.166667"/>
    </inertial>
    <surface>
      <friction>
        <ode>
          <mu>1</mu>
          <mu2>1</mu2>
          <kp>1e15</kp>
          <kd>1e13</kd>
        </ode>
        <torsional>
          <coefficient>1</coefficient>
          <patch_radius>0</patch_radius>
          <surface_radius>0</surface_radius>
          <use_patch_radius>1</use_patch_radius>
          <ode>
            <slip>0</slip>
          </ode>
        </torsional>
      </friction>
      <bounce>
        <restitution_coefficient>0</restitution_coefficient>
        <threshold>1e+06</threshold>
      </bounce>
      <contact>
        <ode>
          <max_vel>10</max_vel>
        </ode>
      </contact>
    </surface>
  </link>
  <joint name="FR_r7_roller_joint" type="continuous">
    <origin rpy="-3.14139 0.448793 -3.14155" xyz="0.028702 -0.0127 -0.059435"/>
    <parent link="FR_roller_group_link"/>
    <child link="FR_r7_roller_link"/>
    <axis xyz="1 0 0"/>
  </joint>
  <link name="FR_r7_roller_link">
    <visual>
      <geometry>
        <mesh filename="package://ul_omnibot/description/meshes/roller.dae"/>
      </geometry>
      <material name="white"/>
    </visual>
    <collision>
      <max_contacts>10</max_contacts>
      <geometry>
        <mesh filename="package://ul_omnibot/description/meshes/roller.stl"/>
      </geometry>
    </collision>
    <inertial>
      <origin xyz="0.0 0.0 0.0"/>
      <mass value="0.009"/>
      <inertia ixx="0.166667" ixy="0" ixz="0" iyy="0.166667" iyz="0" izz="0.166667"/>
    </inertial>
    <surface>
      <friction>
        <ode>
          <mu>1</mu>
          <mu2>1</mu2>
          <kp>1e15</kp>
          <kd>1e13</kd>
        </ode>
        <torsional>
          <coefficient>1</coefficient>
          <patch_radius>0</patch_radius>
          <surface_radius>0</surface_radius>
          <use_patch_radius>1</use_patch_radius>
          <ode>
            <slip>0</slip>
          </ode>
        </torsional>
      </friction>
      <bounce>
        <restitution_coefficient>0</restitution_coefficient>
        <threshold>1e+06</threshold>
      </bounce>
      <contact>
        <ode>
          <max_vel>10</max_vel>
        </ode>
      </contact>
    </surface>
  </link>
  <joint name="FR_r8_roller_joint" type="continuous">
    <origin rpy="0 0.220958 0" xyz="0.014478 0.0127 0.064515"/>
    <parent link="FR_roller_group_link"/>
    <child link="FR_r8_roller_link"/>
    <axis xyz="1 0 0"/>
  </joint>
  <link name="FR_r8_roller_link">
    <visual>
      <geometry>
        <mesh filename="package://ul_omnibot/description/meshes/roller.dae"/>
      </geometry>
      <material name="white"/>
    </visual>
    <collision>
      <max_contacts>10</max_contacts>
      <geometry>
        <mesh filename="package://ul_omnibot/description/meshes/roller.stl"/>
      </geometry>
    </collision>
    <inertial>
      <origin xyz="0.0 0.0 0.0"/>
      <mass value="0.009"/>
      <inertia ixx="0.166667" ixy="0" ixz="0" iyy="0.166667" iyz="0" izz="0.166667"/>
    </inertial>
    <surface>
      <friction>
        <ode>
          <mu>1</mu>
          <mu2>1</mu2>
          <kp>1e15</kp>
          <kd>1e13</kd>
        </ode>
        <torsional>
          <coefficient>1</coefficient>
          <patch_radius>0</patch_radius>
          <surface_radius>0</surface_radius>
          <use_patch_radius>1</use_patch_radius>
          <ode>
            <slip>0</slip>
          </ode>
        </torsional>
      </friction>
      <bounce>
        <restitution_coefficient>0</restitution_coefficient>
        <threshold>1e+06</threshold>
      </bounce>
      <contact>
        <ode>
          <max_vel>10</max_vel>
        </ode>
      </contact>
    </surface>
  </link>
  <joint name="FR_r9_roller_joint" type="continuous">
    <origin rpy="-3.1414 -0.220957 3.14157" xyz="-0.014478 0.0127 -0.064517"/>
    <parent link="FR_roller_group_link"/>
    <child link="FR_r9_roller_link"/>
    <axis xyz="1 0 0"/>
  </joint>
  <link name="FR_r9_roller_link">
    <visual>
      <geometry>
        <mesh filename="package://ul_omnibot/description/meshes/roller.dae"/>
      </geometry>
      <material name="white"/>
    </visual>
    <collision>
      <max_contacts>10</max_contacts>
      <geometry>
        <mesh filename="package://ul_omnibot/description/meshes/roller.stl"/>
      </geometry>
    </collision>
    <inertial>
      <origin xyz="0.0 0.0 0.0"/>
      <mass value="0.009"/>
      <inertia ixx="0.166667" ixy="0" ixz="0" iyy="0.166667" iyz="0" izz="0.166667"/>
    </inertial>
    <surface>
      <friction>
        <ode>
          <mu>1</mu>
          <mu2>1</mu2>
          <kp>1e15</kp>
          <kd>1e13</kd>
        </ode>
        <torsional>
          <coefficient>1</coefficient>
          <patch_radius>0</patch_radius>
          <surface_radius>0</surface_radius>
          <use_patch_radius>1</use_patch_radius>
          <ode>
            <slip>0</slip>
          </ode>
        </torsional>
      </friction>
      <bounce>
        <restitution_coefficient>0</restitution_coefficient>
        <threshold>1e+06</threshold>
      </bounce>
      <contact>
        <ode>
          <max_vel>10</max_vel>
        </ode>
      </contact>
    </surface>
  </link>
  <joint name="FR_r10_roller_joint" type="continuous">
    <origin rpy="-2.7e-05 0.669682 -7.6e-05" xyz="0.040894 0.0127 0.051815"/>
    <parent link="FR_roller_group_link"/>
    <child link="FR_r10_roller_link"/>
    <axis xyz="1 0 0"/>
  </joint>
  <link name="FR_r10_roller_link">
    <visual>
      <geometry>
        <mesh filename="package://ul_omnibot/description/meshes/roller.dae"/>
      </geometry>
      <material name="white"/>
    </visual>
    <collision>
      <max_contacts>10</max_contacts>
      <geometry>
        <mesh filename="package://ul_omnibot/description/meshes/roller.stl"/>
      </geometry>
    </collision>
    <inertial>
      <origin xyz="0.0 0.0 0.0"/>
      <mass value="0.009"/>
      <inertia ixx="0.166667" ixy="0" ixz="0" iyy="0.166667" iyz="0" izz="0.166667"/>
    </inertial>
    <surface>
      <friction>
        <ode>
          <mu>1</mu>
          <mu2>1</mu2>
          <kp>1e15</kp>
          <kd>1e13</kd>
        </ode>
        <torsional>
          <coefficient>1</coefficient>
          <patch_radius>0</patch_radius>
          <surface_radius>0</surface_radius>
          <use_patch_radius>1</use_patch_radius>
          <ode>
            <slip>0</slip>
          </ode>
        </torsional>
      </friction>
      <bounce>
        <restitution_coefficient>0</restitution_coefficient>
        <threshold>1e+06</threshold>
      </bounce>
      <contact>
        <ode>
          <max_vel>10</max_vel>
        </ode>
      </contact>
    </surface>
  </link>
  <joint name="FR_r11_roller_joint" type="continuous">
    <origin rpy="-3.14137 -0.669677 3.14152" xyz="-0.040894 0.0127 -0.051817"/>
    <parent link="FR_roller_group_link"/>
    <child link="FR_r11_roller_link"/>
    <axis xyz="1 0 0"/>
  </joint>
  <link name="FR_r11_roller_link">
    <visual>
      <geometry>
        <mesh filename="package://ul_omnibot/description/meshes/roller.dae"/>
      </geometry>
      <material name="white"/>
    </visual>
    <collision>
      <max_contacts>10</max_contacts>
      <geometry>
        <mesh filename="package://ul_omnibot/description/meshes/roller.stl"/>
      </geometry>
    </collision>
    <inertial>
      <origin xyz="0.0 0.0 0.0"/>
      <mass value="0.009"/>
      <inertia ixx="0.166667" ixy="0" ixz="0" iyy="0.166667" iyz="0" izz="0.166667"/>
    </inertial>
    <surface>
      <friction>
        <ode>
          <mu>1</mu>
          <mu2>1</mu2>
          <kp>1e15</kp>
          <kd>1e13</kd>
        </ode>
        <torsional>
          <coefficient>1</coefficient>
          <patch_radius>0</patch_radius>
          <surface_radius>0</surface_radius>
          <use_patch_radius>1</use_patch_radius>
          <ode>
            <slip>0</slip>
          </ode>
        </torsional>
      </friction>
      <bounce>
        <restitution_coefficient>0</restitution_coefficient>
        <threshold>1e+06</threshold>
      </bounce>
      <contact>
        <ode>
          <max_vel>10</max_vel>
        </ode>
      </contact>
    </surface>
  </link>
  <joint name="FR_r12_roller_joint" type="continuous">
    <origin rpy="-0.000124 1.11858 -0.000198" xyz="0.059436 0.0127 0.028955"/>
    <parent link="FR_roller_group_link"/>
    <child link="FR_r12_roller_link"/>
    <axis xyz="1 0 0"/>
  </joint>
  <link name="FR_r12_roller_link">
    <visual>
      <geometry>
        <mesh filename="package://ul_omnibot/description/meshes/roller.dae"/>
      </geometry>
      <material name="white"/>
    </visual>
    <collision>
      <max_contacts>10</max_contacts>
      <geometry>
        <mesh filename="package://ul_omnibot/description/meshes/roller.stl"/>
      </geometry>
    </collision>
    <inertial>
      <origin xyz="0.0 0.0 0.0"/>
      <mass value="0.009"/>
      <inertia ixx="0.166667" ixy="0" ixz="0" iyy="0.166667" iyz="0" izz="0.166667"/>
    </inertial>
    <surface>
      <friction>
        <ode>
          <mu>1</mu>
          <mu2>1</mu2>
          <kp>1e15</kp>
          <kd>1e13</kd>
        </ode>
        <torsional>
          <coefficient>1</coefficient>
          <patch_radius>0</patch_radius>
          <surface_radius>0</surface_radius>
          <use_patch_radius>1</use_patch_radius>
          <ode>
            <slip>0</slip>
          </ode>
        </torsional>
      </friction>
      <bounce>
        <restitution_coefficient>0</restitution_coefficient>
        <threshold>1e+06</threshold>
      </bounce>
      <contact>
        <ode>
          <max_vel>10</max_vel>
        </ode>
      </contact>
    </surface>
  </link>
  <joint name="FR_r13_roller_joint" type="continuous">
    <origin rpy="-3.14128 -1.11858 3.14139" xyz="-0.059436 0.0127 -0.028957"/>
    <parent link="FR_roller_group_link"/>
    <child link="FR_r13_roller_link"/>
    <axis xyz="1 0 0"/>
  </joint>
  <link name="FR_r13_roller_link">
    <visual>
      <geometry>
        <mesh filename="package://ul_omnibot/description/meshes/roller.dae"/>
      </geometry>
      <material name="white"/>
    </visual>
    <collision>
      <max_contacts>10</max_contacts>
      <geometry>
        <mesh filename="package://ul_omnibot/description/meshes/roller.stl"/>
      </geometry>
    </collision>
    <inertial>
      <origin xyz="0.0 0.0 0.0"/>
      <mass value="0.009"/>
      <inertia ixx="0.166667" ixy="0" ixz="0" iyy="0.166667" iyz="0" izz="0.166667"/>
    </inertial>
    <surface>
      <friction>
        <ode>
          <mu>1</mu>
          <mu2>1</mu2>
          <kp>1e15</kp>
          <kd>1e13</kd>
        </ode>
        <torsional>
          <coefficient>1</coefficient>
          <patch_radius>0</patch_radius>
          <surface_radius>0</surface_radius>
          <use_patch_radius>1</use_patch_radius>
          <ode>
            <slip>0</slip>
          </ode>
        </torsional>
      </friction>
      <bounce>
        <restitution_coefficient>0</restitution_coefficient>
        <threshold>1e+06</threshold>
      </bounce>
      <contact>
        <ode>
          <max_vel>10</max_vel>
        </ode>
      </contact>
    </surface>
  </link>
  <joint name="FR_r14_roller_joint" type="continuous">
    <origin rpy="-0.785326 1.57066 -0.785422" xyz="0.06604 0.0127 -0.000001"/>
    <parent link="FR_roller_group_link"/>
    <child link="FR_r14_roller_link"/>
    <axis xyz="1 0 0"/>
  </joint>
  <link name="FR_r14_roller_link">
    <visual>
      <geometry>
        <mesh filename="package://ul_omnibot/description/meshes/roller.dae"/>
      </geometry>
      <material name="white"/>
    </visual>
    <collision>
      <max_contacts>10</max_contacts>
      <geometry>
        <mesh filename="package://ul_omnibot/description/meshes/roller.stl"/>
      </geometry>
    </collision>
    <inertial>
      <origin xyz="0.0 0.0 0.0"/>
      <mass value="0.009"/>
      <inertia ixx="0.166667" ixy="0" ixz="0" iyy="0.166667" iyz="0" izz="0.166667"/>
    </inertial>
    <surface>
      <friction>
        <ode>
          <mu>1</mu>
          <mu2>1</mu2>
          <kp>1e15</kp>
          <kd>1e13</kd>
        </ode>
        <torsional>
          <coefficient>1</coefficient>
          <patch_radius>0</patch_radius>
          <surface_radius>0</surface_radius>
          <use_patch_radius>1</use_patch_radius>
          <ode>
            <slip>0</slip>
          </ode>
        </torsional>
      </friction>
      <bounce>
        <restitution_coefficient>0</restitution_coefficient>
        <threshold>1e+06</threshold>
      </bounce>
      <contact>
        <ode>
          <max_vel>10</max_vel>
        </ode>
      </contact>
    </surface>
  </link>
  <joint name="FR_r15_roller_joint" type="continuous">
    <origin rpy="-0.785326 -1.57066 0.785422" xyz="-0.06604 0.0127 -0.000001"/>
    <parent link="FR_roller_group_link"/>
    <child link="FR_r15_roller_link"/>
    <axis xyz="1 0 0"/>
  </joint>
  <link name="FR_r15_roller_link">
    <visual>
      <geometry>
        <mesh filename="package://ul_omnibot/description/meshes/roller.dae"/>
      </geometry>
      <material name="white"/>
    </visual>
    <collision>
      <max_contacts>10</max_contacts>
      <geometry>
        <mesh filename="package://ul_omnibot/description/meshes/roller.stl"/>
      </geometry>
    </collision>
    <inertial>
      <origin xyz="0.0 0.0 0.0"/>
      <mass value="0.009"/>
      <inertia ixx="0.166667" ixy="0" ixz="0" iyy="0.166667" iyz="0" izz="0.166667"/>
    </inertial>
    <surface>
      <friction>
        <ode>
          <mu>1</mu>
          <mu2>1</mu2>
          <kp>1e15</kp>
          <kd>1e13</kd>
        </ode>
        <torsional>
          <coefficient>1</coefficient>
          <patch_radius>0</patch_radius>
          <surface_radius>0</surface_radius>
          <use_patch_radius>1</use_patch_radius>
          <ode>
            <slip>0</slip>
          </ode>
        </torsional>
      </friction>
      <bounce>
        <restitution_coefficient>0</restitution_coefficient>
        <threshold>1e+06</threshold>
      </bounce>
      <contact>
        <ode>
          <max_vel>10</max_vel>
        </ode>
      </contact>
    </surface>
  </link>
  <joint name="FR_r16_roller_joint" type="continuous">
    <origin rpy="-3e-06 -0.22794 2.2e-05" xyz="-0.014986 0.0127 0.064261"/>
    <parent link="FR_roller_group_link"/>
    <child link="FR_r16_roller_link"/>
    <axis xyz="1 0 0"/>
  </joint>
  <link name="FR_r16_roller_link">
    <visual>
      <geometry>
        <mesh filename="package://ul_omnibot/description/meshes/roller.dae"/>
      </geometry>
      <material name="white"/>
    </visual>
    <collision>
      <max_contacts>10</max_contacts>
      <geometry>
        <mesh filename="package://ul_omnibot/description/meshes/roller.stl"/>
      </geometry>
    </collision>
    <inertial>
      <origin xyz="0.0 0.0 0.0"/>
      <mass value="0.009"/>
      <inertia ixx="0.166667" ixy="0" ixz="0" iyy="0.166667" iyz="0" izz="0.166667"/>
    </inertial>
    <surface>
      <friction>
        <ode>
          <mu>1</mu>
          <mu2>1</mu2>
          <kp>1e15</kp>
          <kd>1e13</kd>
        </ode>
        <torsional>
          <coefficient>1</coefficient>
          <patch_radius>0</patch_radius>
          <surface_radius>0</surface_radius>
          <use_patch_radius>1</use_patch_radius>
          <ode>
            <slip>0</slip>
          </ode>
        </torsional>
      </friction>
      <bounce>
        <restitution_coefficient>0</restitution_coefficient>
        <threshold>1e+06</threshold>
      </bounce>
      <contact>
        <ode>
          <max_vel>10</max_vel>
        </ode>
      </contact>
    </surface>
  </link>
  <joint name="FR_r17_roller_joint" type="continuous">
    <origin rpy="-3.1414 0.227937 -3.14157" xyz="0.014986 0.0127 -0.064263"/>
    <parent link="FR_roller_group_link"/>
    <child link="FR_r17_roller_link"/>
    <axis xyz="1 0 0"/>
  </joint>
  <link name="FR_r17_roller_link">
    <visual>
      <geometry>
        <mesh filename="package://ul_omnibot/description/meshes/roller.dae"/>
      </geometry>
      <material name="white"/>
    </visual>
    <collision>
      <max_contacts>10</max_contacts>
      <geometry>
        <mesh filename="package://ul_omnibot/description/meshes/roller.stl"/>
      </geometry>
    </collision>
    <inertial>
      <origin xyz="0.0 0.0 0.0"/>
      <mass value="0.009"/>
      <inertia ixx="0.166667" ixy="0" ixz="0" iyy="0.166667" iyz="0" izz="0.166667"/>
    </inertial>
    <surface>
      <friction>
        <ode>
          <mu>1</mu>
          <mu2>1</mu2>
          <kp>1e15</kp>
          <kd>1e13</kd>
        </ode>
        <torsional>
          <coefficient>1</coefficient>
          <patch_radius>0</patch_radius>
          <surface_radius>0</surface_radius>
          <use_patch_radius>1</use_patch_radius>
          <ode>
            <slip>0</slip>
          </ode>
        </torsional>
      </friction>
      <bounce>
        <restitution_coefficient>0</restitution_coefficient>
        <threshold>1e+06</threshold>
      </bounce>
      <contact>
        <ode>
          <max_vel>10</max_vel>
        </ode>
      </contact>
    </surface>
  </link>
  <joint name="FR_r18_roller_joint" type="continuous">
    <origin rpy="-2.7e-05 -0.676664 7.7e-05" xyz="-0.041402 0.0127 0.051561"/>
    <parent link="FR_roller_group_link"/>
    <child link="FR_r18_roller_link"/>
    <axis xyz="1 0 0"/>
  </joint>
  <link name="FR_r18_roller_link">
    <visual>
      <geometry>
        <mesh filename="package://ul_omnibot/description/meshes/roller.dae"/>
      </geometry>
      <material name="white"/>
    </visual>
    <collision>
      <max_contacts>10</max_contacts>
      <geometry>
        <mesh filename="package://ul_omnibot/description/meshes/roller.stl"/>
      </geometry>
    </collision>
    <inertial>
      <origin xyz="0.0 0.0 0.0"/>
      <mass value="0.009"/>
      <inertia ixx="0.166667" ixy="0" ixz="0" iyy="0.166667" iyz="0" izz="0.166667"/>
    </inertial>
    <surface>
      <friction>
        <ode>
          <mu>1</mu>
          <mu2>1</mu2>
          <kp>1e15</kp>
          <kd>1e13</kd>
        </ode>
        <torsional>
          <coefficient>1</coefficient>
          <patch_radius>0</patch_radius>
          <surface_radius>0</surface_radius>
          <use_patch_radius>1</use_patch_radius>
          <ode>
            <slip>0</slip>
          </ode>
        </torsional>
      </friction>
      <bounce>
        <restitution_coefficient>0</restitution_coefficient>
        <threshold>1e+06</threshold>
      </bounce>
      <contact>
        <ode>
          <max_vel>10</max_vel>
        </ode>
      </contact>
    </surface>
  </link>
  <joint name="FR_r19_roller_joint" type="continuous">
    <origin rpy="-3.14137 0.676607 -3.14152" xyz="0.041402 0.0127 -0.051563"/>
    <parent link="FR_roller_group_link"/>
    <child link="FR_r19_roller_link"/>
    <axis xyz="1 0 0"/>
  </joint>
  <link name="FR_r19_roller_link">
    <visual>
      <geometry>
        <mesh filename="package://ul_omnibot/description/meshes/roller.dae"/>
      </geometry>
      <material name="white"/>
    </visual>
    <collision>
      <max_contacts>10</max_contacts>
      <geometry>
        <mesh filename="package://ul_omnibot/description/meshes/roller.stl"/>
      </geometry>
    </collision>
    <inertial>
      <origin xyz="0.0 0.0 0.0"/>
      <mass value="0.009"/>
      <inertia ixx="0.166667" ixy="0" ixz="0" iyy="0.166667" iyz="0" izz="0.166667"/>
    </inertial>
    <surface>
      <friction>
        <ode>
          <mu>1</mu>
          <mu2>1</mu2>
          <kp>1e15</kp>
          <kd>1e13</kd>
        </ode>
        <torsional>
          <coefficient>1</coefficient>
          <patch_radius>0</patch_radius>
          <surface_radius>0</surface_radius>
          <use_patch_radius>1</use_patch_radius>
          <ode>
            <slip>0</slip>
          </ode>
        </torsional>
      </friction>
      <bounce>
        <restitution_coefficient>0</restitution_coefficient>
        <threshold>1e+06</threshold>
      </bounce>
      <contact>
        <ode>
          <max_vel>10</max_vel>
        </ode>
      </contact>
    </surface>
  </link>
  <joint name="FR_r20_roller_joint" type="continuous">
    <origin rpy="-3.14123 1.1952 -3.14135" xyz="0.05969 0.0127 -0.028449"/>
    <parent link="FR_roller_group_link"/>
    <child link="FR_r20_roller_link"/>
    <axis xyz="1 0 0"/>
  </joint>
  <link name="FR_r20_roller_link">
    <visual>
      <geometry>
        <mesh filename="package://ul_omnibot/description/meshes/roller.dae"/>
      </geometry>
      <material name="white"/>
    </visual>
    <collision>
      <max_contacts>10</max_contacts>
      <geometry>
        <mesh filename="package://ul_omnibot/description/meshes/roller.stl"/>
      </geometry>
    </collision>
    <inertial>
      <origin xyz="0.0 0.0 0.0"/>
      <mass value="0.009"/>
      <inertia ixx="0.166667" ixy="0" ixz="0" iyy="0.166667" iyz="0" izz="0.166667"/>
    </inertial>
    <surface>
      <friction>
        <ode>
          <mu>1</mu>
          <mu2>1</mu2>
          <kp>1e15</kp>
          <kd>1e13</kd>
        </ode>
        <torsional>
          <coefficient>1</coefficient>
          <patch_radius>0</patch_radius>
          <surface_radius>0</surface_radius>
          <use_patch_radius>1</use_patch_radius>
          <ode>
            <slip>0</slip>
          </ode>
        </torsional>
      </friction>
      <bounce>
        <restitution_coefficient>0</restitution_coefficient>
        <threshold>1e+06</threshold>
      </bounce>
      <contact>
        <ode>
          <max_vel>10</max_vel>
        </ode>
      </contact>
    </surface>
  </link>
  <joint name="FR_r21_roller_joint" type="continuous">
    <origin rpy="-1.1e-05 -0.448724 4.6e-05" xyz="-0.028702 -0.0127 0.059437"/>
    <parent link="FR_roller_group_link"/>
    <child link="FR_r21_roller_link"/>
    <axis xyz="1 0 0"/>
  </joint>
  <link name="FR_r21_roller_link">
    <visual>
      <geometry>
        <mesh filename="package://ul_omnibot/description/meshes/roller.dae"/>
      </geometry>
      <material name="white"/>
    </visual>
    <collision>
      <max_contacts>10</max_contacts>
      <geometry>
        <mesh filename="package://ul_omnibot/description/meshes/roller.stl"/>
      </geometry>
    </collision>
    <inertial>
      <origin xyz="0.0 0.0 0.0"/>
      <mass value="0.009"/>
      <inertia ixx="0.166667" ixy="0" ixz="0" iyy="0.166667" iyz="0" izz="0.166667"/>
    </inertial>
    <surface>
      <friction>
        <ode>
          <mu>1</mu>
          <mu2>1</mu2>
          <kp>1e15</kp>
          <kd>1e13</kd>
        </ode>
        <torsional>
          <coefficient>1</coefficient>
          <patch_radius>0</patch_radius>
          <surface_radius>0</surface_radius>
          <use_patch_radius>1</use_patch_radius>
          <ode>
            <slip>0</slip>
          </ode>
        </torsional>
      </friction>
      <bounce>
        <restitution_coefficient>0</restitution_coefficient>
        <threshold>1e+06</threshold>
      </bounce>
      <contact>
        <ode>
          <max_vel>10</max_vel>
        </ode>
      </contact>
    </surface>
  </link>
  <joint name="FR_r22_roller_joint" type="continuous">
    <origin rpy="-0.000123 -1.11701 0.000198" xyz="-0.05969 0.0127 0.028447"/>
    <parent link="FR_roller_group_link"/>
    <child link="FR_r22_roller_link"/>
    <axis xyz="1 0 0"/>
  </joint>
  <link name="FR_r22_roller_link">
    <visual>
      <geometry>
        <mesh filename="package://ul_omnibot/description/meshes/roller.dae"/>
      </geometry>
      <material name="white"/>
    </visual>
    <collision>
      <max_contacts>10</max_contacts>
      <geometry>
        <mesh filename="package://ul_omnibot/description/meshes/roller.stl"/>
      </geometry>
    </collision>
    <inertial>
      <origin xyz="0.0 0.0 0.0"/>
      <mass value="0.009"/>
      <inertia ixx="0.166667" ixy="0" ixz="0" iyy="0.166667" iyz="0" izz="0.166667"/>
    </inertial>
    <surface>
      <friction>
        <ode>
          <mu>1</mu>
          <mu2>1</mu2>
          <kp>1e15</kp>
          <kd>1e13</kd>
        </ode>
        <torsional>
          <coefficient>1</coefficient>
          <patch_radius>0</patch_radius>
          <surface_radius>0</surface_radius>
          <use_patch_radius>1</use_patch_radius>
          <ode>
            <slip>0</slip>
          </ode>
        </torsional>
      </friction>
      <bounce>
        <restitution_coefficient>0</restitution_coefficient>
        <threshold>1e+06</threshold>
      </bounce>
      <contact>
        <ode>
          <max_vel>10</max_vel>
        </ode>
      </contact>
    </surface>
  </link>
  <joint name="FR_r23_roller_joint" type="continuous">
    <origin rpy="-1.1e-05 0.448724 -4.6e-05" xyz="0.028702 -0.0127 0.059437"/>
    <parent link="FR_roller_group_link"/>
    <child link="FR_r23_roller_link"/>
    <axis xyz="1 0 0"/>
  </joint>
  <link name="FR_r23_roller_link">
    <visual>
      <geometry>
        <mesh filename="package://ul_omnibot/description/meshes/roller.dae"/>
      </geometry>
      <material name="white"/>
    </visual>
    <collision>
      <max_contacts>10</max_contacts>
      <geometry>
        <mesh filename="package://ul_omnibot/description/meshes/roller.stl"/>
      </geometry>
    </collision>
    <inertial>
      <origin xyz="0.0 0.0 0.0"/>
      <mass value="0.009"/>
      <inertia ixx="0.166667" ixy="0" ixz="0" iyy="0.166667" iyz="0" izz="0.166667"/>
    </inertial>
    <surface>
      <friction>
        <ode>
          <mu>1</mu>
          <mu2>1</mu2>
          <kp>1e15</kp>
          <kd>1e13</kd>
        </ode>
        <torsional>
          <coefficient>1</coefficient>
          <patch_radius>0</patch_radius>
          <surface_radius>0</surface_radius>
          <use_patch_radius>1</use_patch_radius>
          <ode>
            <slip>0</slip>
          </ode>
        </torsional>
      </friction>
      <bounce>
        <restitution_coefficient>0</restitution_coefficient>
        <threshold>1e+06</threshold>
      </bounce>
      <contact>
        <ode>
          <max_vel>10</max_vel>
        </ode>
      </contact>
    </surface>
  </link>
  <joint name="FR_r24_roller_joint" type="continuous">
    <origin rpy="-5.8e-05 -0.897622 0.000121" xyz="-0.051562 -0.0127 0.041149"/>
    <parent link="FR_roller_group_link"/>
    <child link="FR_r24_roller_link"/>
    <axis xyz="1 0 0"/>
  </joint>
  <link name="FR_r24_roller_link">
    <visual>
      <geometry>
        <mesh filename="package://ul_omnibot/description/meshes/roller.dae"/>
      </geometry>
      <material name="white"/>
    </visual>
    <collision>
      <max_contacts>10</max_contacts>
      <geometry>
        <mesh filename="package://ul_omnibot/description/meshes/roller.stl"/>
      </geometry>
    </collision>
    <inertial>
      <origin xyz="0.0 0.0 0.0"/>
      <mass value="0.009"/>
      <inertia ixx="0.166667" ixy="0" ixz="0" iyy="0.166667" iyz="0" izz="0.166667"/>
    </inertial>
    <surface>
      <friction>
        <ode>
          <mu>1</mu>
          <mu2>1</mu2>
          <kp>1e15</kp>
          <kd>1e13</kd>
        </ode>
        <torsional>
          <coefficient>1</coefficient>
          <patch_radius>0</patch_radius>
          <surface_radius>0</surface_radius>
          <use_patch_radius>1</use_patch_radius>
          <ode>
            <slip>0</slip>
          </ode>
        </torsional>
      </friction>
      <bounce>
        <restitution_coefficient>0</restitution_coefficient>
        <threshold>1e+06</threshold>
      </bounce>
      <contact>
        <ode>
          <max_vel>10</max_vel>
        </ode>
      </contact>
    </surface>
  </link>
  <joint name="FR_r25_roller_joint" type="continuous">
    <origin rpy="-5.8e-05 0.897622 -0.000121" xyz="0.051562 -0.0127 0.041149"/>
    <parent link="FR_roller_group_link"/>
    <child link="FR_r25_roller_link"/>
    <axis xyz="1 0 0"/>
  </joint>
  <link name="FR_r25_roller_link">
    <visual>
      <geometry>
        <mesh filename="package://ul_omnibot/description/meshes/roller.dae"/>
      </geometry>
      <material name="white"/>
    </visual>
    <collision>
      <max_contacts>10</max_contacts>
      <geometry>
        <mesh filename="package://ul_omnibot/description/meshes/roller.stl"/>
      </geometry>
    </collision>
    <inertial>
      <origin xyz="0.0 0.0 0.0"/>
      <mass value="0.009"/>
      <inertia ixx="0.166667" ixy="0" ixz="0" iyy="0.166667" iyz="0" izz="0.166667"/>
    </inertial>
    <surface>
      <friction>
        <ode>
          <mu>1</mu>
          <mu2>1</mu2>
          <kp>1e15</kp>
          <kd>1e13</kd>
        </ode>
        <torsional>
          <coefficient>1</coefficient>
          <patch_radius>0</patch_radius>
          <surface_radius>0</surface_radius>
          <use_patch_radius>1</use_patch_radius>
          <ode>
            <slip>0</slip>
          </ode>
        </torsional>
      </friction>
      <bounce>
        <restitution_coefficient>0</restitution_coefficient>
        <threshold>1e+06</threshold>
      </bounce>
      <contact>
        <ode>
          <max_vel>10</max_vel>
        </ode>
      </contact>
    </surface>
  </link>
  <joint name="FR_r26_roller_joint" type="continuous">
    <origin rpy="-0.000337 -1.34635 0.000422" xyz="-0.064262 -0.0127 0.014733"/>
    <parent link="FR_roller_group_link"/>
    <child link="FR_r26_roller_link"/>
    <axis xyz="1 0 0"/>
  </joint>
  <link name="FR_r26_roller_link">
    <visual>
      <geometry>
        <mesh filename="package://ul_omnibot/description/meshes/roller.dae"/>
      </geometry>
      <material name="white"/>
    </visual>
    <collision>
      <max_contacts>10</max_contacts>
      <geometry>
        <mesh filename="package://ul_omnibot/description/meshes/roller.stl"/>
      </geometry>
    </collision>
    <inertial>
      <origin xyz="0.0 0.0 0.0"/>
      <mass value="0.009"/>
      <inertia ixx="0.166667" ixy="0" ixz="0" iyy="0.166667" iyz="0" izz="0.166667"/>
    </inertial>
    <surface>
      <friction>
        <ode>
          <mu>1</mu>
          <mu2>1</mu2>
          <kp>1e15</kp>
          <kd>1e13</kd>
        </ode>
        <torsional>
          <coefficient>1</coefficient>
          <patch_radius>0</patch_radius>
          <surface_radius>0</surface_radius>
          <use_patch_radius>1</use_patch_radius>
          <ode>
            <slip>0</slip>
          </ode>
        </torsional>
      </friction>
      <bounce>
        <restitution_coefficient>0</restitution_coefficient>
        <threshold>1e+06</threshold>
      </bounce>
      <contact>
        <ode>
          <max_vel>10</max_vel>
        </ode>
      </contact>
    </surface>
  </link>
  <joint name="FR_r27_roller_joint" type="continuous">
    <origin rpy="-0.000337 1.34635 -0.000422" xyz="0.064262 -0.0127 0.014733"/>
    <parent link="FR_roller_group_link"/>
    <child link="FR_r27_roller_link"/>
    <axis xyz="1 0 0"/>
  </joint>
  <link name="FR_r27_roller_link">
    <visual>
      <geometry>
        <mesh filename="package://ul_omnibot/description/meshes/roller.dae"/>
      </geometry>
      <material name="white"/>
    </visual>
    <collision>
      <max_contacts>10</max_contacts>
      <geometry>
        <mesh filename="package://ul_omnibot/description/meshes/roller.stl"/>
      </geometry>
    </collision>
    <inertial>
      <origin xyz="0.0 0.0 0.0"/>
      <mass value="0.009"/>
      <inertia ixx="0.166667" ixy="0" ixz="0" iyy="0.166667" iyz="0" izz="0.166667"/>
    </inertial>
    <surface>
      <friction>
        <ode>
          <mu>1</mu>
          <mu2>1</mu2>
          <kp>1e15</kp>
          <kd>1e13</kd>
        </ode>
        <torsional>
          <coefficient>1</coefficient>
          <patch_radius>0</patch_radius>
          <surface_radius>0</surface_radius>
          <use_patch_radius>1</use_patch_radius>
          <ode>
            <slip>0</slip>
          </ode>
        </torsional>
      </friction>
      <bounce>
        <restitution_coefficient>0</restitution_coefficient>
        <threshold>1e+06</threshold>
      </bounce>
      <contact>
        <ode>
          <max_vel>10</max_vel>
        </ode>
      </contact>
    </surface>
  </link>
  <joint name="FR_r28_roller_joint" type="continuous">
    <origin rpy="-3.1414 3e-06 -3.14159" xyz="0 -0.0127 -0.066039"/>
    <parent link="FR_roller_group_link"/>
    <child link="FR_r28_roller_link"/>
    <axis xyz="1 0 0"/>
  </joint>
  <link name="FR_r28_roller_link">
    <visual>
      <geometry>
        <mesh filename="package://ul_omnibot/description/meshes/roller.dae"/>
      </geometry>
      <material name="white"/>
    </visual>
    <collision>
      <max_contacts>10</max_contacts>
      <geometry>
        <mesh filename="package://ul_omnibot/description/meshes/roller.stl"/>
      </geometry>
    </collision>
    <inertial>
      <origin xyz="0.0 0.0 0.0"/>
      <mass value="0.009"/>
      <inertia ixx="0.166667" ixy="0" ixz="0" iyy="0.166667" iyz="0" izz="0.166667"/>
    </inertial>
    <surface>
      <friction>
        <ode>
          <mu>1</mu>
          <mu2>1</mu2>
          <kp>1e15</kp>
          <kd>1e13</kd>
        </ode>
        <torsional>
          <coefficient>1</coefficient>
          <patch_radius>0</patch_radius>
          <surface_radius>0</surface_radius>
          <use_patch_radius>1</use_patch_radius>
          <ode>
            <slip>0</slip>
          </ode>
        </torsional>
      </friction>
      <bounce>
        <restitution_coefficient>0</restitution_coefficient>
        <threshold>1e+06</threshold>
      </bounce>
      <contact>
        <ode>
          <max_vel>10</max_vel>
        </ode>
      </contact>
    </surface>
  </link>
  <transmission name="FR_wheel_trans">
    <type>transmission_interface/SimpleTransmission</type>
    <joint name="FR_wheel_joint">
      <hardware_interface>hardware_interface/VelocityJointInterface</hardware_interface>
    </joint>
    <actuator name="FR_wheel_motor">
      <hardware_interface>hardware_interface/VelocityJointInterface</hardware_interface>
      <mechanicalReduction>30</mechanicalReduction>
    </actuator>
  </transmission>
  <gazebo reference="FR_wheel_link">
    <selfCollide>false</selfCollide>
    <mu1 value="0.8"/>
    <mu2 value="0.8"/>
    <material>Gazebo/Red</material>
  </gazebo>
  <joint name="RL_wheel_joint" type="continuous">
    <origin rpy="1.5707963267948966 0.0 -2.356194490192345" xyz="-0.375 0.375 0.0635"/>
    <parent link="base_link"/>
    <child link="RL_wheel_link"/>
    <limit effort="100" velocity="100"/>
    <axis xyz="0.0 0.0 -1."/>
  </joint>
  <link name="RL_wheel_link">
    <visual>
      <geometry>
        <mesh filename="package://ul_omnibot/description/meshes/hub.dae"/>
      </geometry>
    </visual>
    <collision>
      <geometry>
        <mesh filename="package://ul_omnibot/description/meshes/hub.stl"/>
      </geometry>
    </collision>
    <inertial>
      <origin xyz="0.0 -0.011 -0.0"/>
      <mass value="0.5"/>
      <inertia ixx="0.166667" ixy="0" ixz="0" iyy="0.166667" iyz="0" izz="0.166667"/>
    </inertial>
    <surface>
      <friction>
        <ode>
          <mu1>1</mu1>
          <mu2>1</mu2>
          <kp>1e15</kp>
          <kd>1e13</kd>
        </ode>
      </friction>
      <bounce>
        <restitution_coefficient>0</restitution_coefficient>
        <threshold>1e+06</threshold>
      </bounce>
      <contact>
        <ode>
          <max_vel>10</max_vel>
        </ode>
      </contact>
    </surface>
  </link>
  <joint name="RL_roller_group_joint" type="fixed">
    <origin rpy="-1.5707963267948966 0.0 0" xyz="0 0 0"/>
    <!-- <limit effort="1000.0" lower="0.0" upper="0.0" velocity="0.0"/>
                <axis xyz="0 0 0"/> -->
    <parent link="RL_wheel_link"/>
    <child link="RL_roller_group_link"/>
  </joint>
  <link name="RL_roller_group_link">
    <inertial>
      <mass value="0.00001"/>
      <inertia ixx="4.000000000000001e-12" ixy="0.0" ixz="0.0" iyy="4.000000000000001e-12" iyz="0.0" izz="4.000000000000001e-12"/>
      <origin xyz="0.0 0.0 0.0"/>
    </inertial>
  </link>
  <gazebo reference="RL_roller_group_link">
    <selfCollide>false</selfCollide>
    <material>Gazebo/Red</material>
  </gazebo>
  <joint name="RL_r1_roller_joint" type="continuous">
    <origin rpy="0 0 0" xyz="0 -0.0127 0.066041"/>
    <parent link="RL_roller_group_link"/>
    <child link="RL_r1_roller_link"/>
    <axis xyz="1 0 0"/>
  </joint>
  <link name="RL_r1_roller_link">
    <visual>
      <geometry>
        <mesh filename="package://ul_omnibot/description/meshes/roller.dae"/>
      </geometry>
      <material name="white"/>
    </visual>
    <collision>
      <max_contacts>10</max_contacts>
      <geometry>
        <mesh filename="package://ul_omnibot/description/meshes/roller.stl"/>
      </geometry>
    </collision>
    <inertial>
      <origin xyz="0.0 0.0 0.0"/>
      <mass value="0.009"/>
      <inertia ixx="0.166667" ixy="0" ixz="0" iyy="0.166667" iyz="0" izz="0.166667"/>
    </inertial>
    <surface>
      <friction>
        <ode>
          <mu>1</mu>
          <mu2>1</mu2>
          <kp>1e15</kp>
          <kd>1e13</kd>
        </ode>
        <torsional>
          <coefficient>1</coefficient>
          <patch_radius>0</patch_radius>
          <surface_radius>0</surface_radius>
          <use_patch_radius>1</use_patch_radius>
          <ode>
            <slip>0</slip>
          </ode>
        </torsional>
      </friction>
      <bounce>
        <restitution_coefficient>0</restitution_coefficient>
        <threshold>1e+06</threshold>
      </bounce>
      <contact>
        <ode>
          <max_vel>10</max_vel>
        </ode>
      </contact>
    </surface>
  </link>
  <joint name="RL_r2_roller_joint" type="continuous">
    <origin rpy="-3.14106 1.34635 -3.14117" xyz="0.064262 -0.0127 -0.014731"/>
    <parent link="RL_roller_group_link"/>
    <child link="RL_r2_roller_link"/>
    <axis xyz="1 0 0"/>
  </joint>
  <link name="RL_r2_roller_link">
    <visual>
      <geometry>
        <mesh filename="package://ul_omnibot/description/meshes/roller.dae"/>
      </geometry>
      <material name="white"/>
    </visual>
    <collision>
      <max_contacts>10</max_contacts>
      <geometry>
        <mesh filename="package://ul_omnibot/description/meshes/roller.stl"/>
      </geometry>
    </collision>
    <inertial>
      <origin xyz="0.0 0.0 0.0"/>
      <mass value="0.009"/>
      <inertia ixx="0.166667" ixy="0" ixz="0" iyy="0.166667" iyz="0" izz="0.166667"/>
    </inertial>
    <surface>
      <friction>
        <ode>
          <mu>1</mu>
          <mu2>1</mu2>
          <kp>1e15</kp>
          <kd>1e13</kd>
        </ode>
        <torsional>
          <coefficient>1</coefficient>
          <patch_radius>0</patch_radius>
          <surface_radius>0</surface_radius>
          <use_patch_radius>1</use_patch_radius>
          <ode>
            <slip>0</slip>
          </ode>
        </torsional>
      </friction>
      <bounce>
        <restitution_coefficient>0</restitution_coefficient>
        <threshold>1e+06</threshold>
      </bounce>
      <contact>
        <ode>
          <max_vel>10</max_vel>
        </ode>
      </contact>
    </surface>
  </link>
  <joint name="RL_r3_roller_joint" type="continuous">
    <origin rpy="-3.14106 -1.346396852 3.14117" xyz="-0.064262 -0.0127 -0.014731"/>
    <parent link="RL_roller_group_link"/>
    <child link="RL_r3_roller_link"/>
    <axis xyz="1 0 0"/>
  </joint>
  <link name="RL_r3_roller_link">
    <visual>
      <geometry>
        <mesh filename="package://ul_omnibot/description/meshes/roller.dae"/>
      </geometry>
      <material name="white"/>
    </visual>
    <collision>
      <max_contacts>10</max_contacts>
      <geometry>
        <mesh filename="package://ul_omnibot/description/meshes/roller.stl"/>
      </geometry>
    </collision>
    <inertial>
      <origin xyz="0.0 0.0 0.0"/>
      <mass value="0.009"/>
      <inertia ixx="0.166667" ixy="0" ixz="0" iyy="0.166667" iyz="0" izz="0.166667"/>
    </inertial>
    <surface>
      <friction>
        <ode>
          <mu>1</mu>
          <mu2>1</mu2>
          <kp>1e15</kp>
          <kd>1e13</kd>
        </ode>
        <torsional>
          <coefficient>1</coefficient>
          <patch_radius>0</patch_radius>
          <surface_radius>0</surface_radius>
          <use_patch_radius>1</use_patch_radius>
          <ode>
            <slip>0</slip>
          </ode>
        </torsional>
      </friction>
      <bounce>
        <restitution_coefficient>0</restitution_coefficient>
        <threshold>1e+06</threshold>
      </bounce>
      <contact>
        <ode>
          <max_vel>10</max_vel>
        </ode>
      </contact>
    </surface>
  </link>
  <joint name="RL_r4_roller_joint" type="continuous">
    <origin rpy="-3.14134 -0.897624 3.14147" xyz="-0.051562 -0.0127 -0.041147"/>
    <parent link="RL_roller_group_link"/>
    <child link="RL_r4_roller_link"/>
    <axis xyz="1 0 0"/>
  </joint>
  <link name="RL_r4_roller_link">
    <visual>
      <geometry>
        <mesh filename="package://ul_omnibot/description/meshes/roller.dae"/>
      </geometry>
      <material name="white"/>
    </visual>
    <collision>
      <max_contacts>10</max_contacts>
      <geometry>
        <mesh filename="package://ul_omnibot/description/meshes/roller.stl"/>
      </geometry>
    </collision>
    <inertial>
      <origin xyz="0.0 0.0 0.0"/>
      <mass value="0.009"/>
      <inertia ixx="0.166667" ixy="0" ixz="0" iyy="0.166667" iyz="0" izz="0.166667"/>
    </inertial>
    <surface>
      <friction>
        <ode>
          <mu>1</mu>
          <mu2>1</mu2>
          <kp>1e15</kp>
          <kd>1e13</kd>
        </ode>
        <torsional>
          <coefficient>1</coefficient>
          <patch_radius>0</patch_radius>
          <surface_radius>0</surface_radius>
          <use_patch_radius>1</use_patch_radius>
          <ode>
            <slip>0</slip>
          </ode>
        </torsional>
      </friction>
      <bounce>
        <restitution_coefficient>0</restitution_coefficient>
        <threshold>1e+06</threshold>
      </bounce>
      <contact>
        <ode>
          <max_vel>10</max_vel>
        </ode>
      </contact>
    </surface>
  </link>
  <joint name="RL_r5_roller_joint" type="continuous">
    <origin rpy="-3.14134 0.897624 -3.14147" xyz="0.051562 -0.0127 -0.041147"/>
    <parent link="RL_roller_group_link"/>
    <child link="RL_r5_roller_link"/>
    <axis xyz="1 0 0"/>
  </joint>
  <link name="RL_r5_roller_link">
    <visual>
      <geometry>
        <mesh filename="package://ul_omnibot/description/meshes/roller.dae"/>
      </geometry>
      <material name="white"/>
    </visual>
    <collision>
      <max_contacts>10</max_contacts>
      <geometry>
        <mesh filename="package://ul_omnibot/description/meshes/roller.stl"/>
      </geometry>
    </collision>
    <inertial>
      <origin xyz="0.0 0.0 0.0"/>
      <mass value="0.009"/>
      <inertia ixx="0.166667" ixy="0" ixz="0" iyy="0.166667" iyz="0" izz="0.166667"/>
    </inertial>
    <surface>
      <friction>
        <ode>
          <mu>1</mu>
          <mu2>1</mu2>
          <kp>1e15</kp>
          <kd>1e13</kd>
        </ode>
        <torsional>
          <coefficient>1</coefficient>
          <patch_radius>0</patch_radius>
          <surface_radius>0</surface_radius>
          <use_patch_radius>1</use_patch_radius>
          <ode>
            <slip>0</slip>
          </ode>
        </torsional>
      </friction>
      <bounce>
        <restitution_coefficient>0</restitution_coefficient>
        <threshold>1e+06</threshold>
      </bounce>
      <contact>
        <ode>
          <max_vel>10</max_vel>
        </ode>
      </contact>
    </surface>
  </link>
  <joint name="RL_r6_roller_joint" type="continuous">
    <origin rpy="-3.14139 -0.448725 3.14155" xyz="-0.028702 -0.0127 -0.059435"/>
    <parent link="RL_roller_group_link"/>
    <child link="RL_r6_roller_link"/>
    <axis xyz="1 0 0"/>
  </joint>
  <link name="RL_r6_roller_link">
    <visual>
      <geometry>
        <mesh filename="package://ul_omnibot/description/meshes/roller.dae"/>
      </geometry>
      <material name="white"/>
    </visual>
    <collision>
      <max_contacts>10</max_contacts>
      <geometry>
        <mesh filename="package://ul_omnibot/description/meshes/roller.stl"/>
      </geometry>
    </collision>
    <inertial>
      <origin xyz="0.0 0.0 0.0"/>
      <mass value="0.009"/>
      <inertia ixx="0.166667" ixy="0" ixz="0" iyy="0.166667" iyz="0" izz="0.166667"/>
    </inertial>
    <surface>
      <friction>
        <ode>
          <mu>1</mu>
          <mu2>1</mu2>
          <kp>1e15</kp>
          <kd>1e13</kd>
        </ode>
        <torsional>
          <coefficient>1</coefficient>
          <patch_radius>0</patch_radius>
          <surface_radius>0</surface_radius>
          <use_patch_radius>1</use_patch_radius>
          <ode>
            <slip>0</slip>
          </ode>
        </torsional>
      </friction>
      <bounce>
        <restitution_coefficient>0</restitution_coefficient>
        <threshold>1e+06</threshold>
      </bounce>
      <contact>
        <ode>
          <max_vel>10</max_vel>
        </ode>
      </contact>
    </surface>
  </link>
  <joint name="RL_r7_roller_joint" type="continuous">
    <origin rpy="-3.14139 0.448793 -3.14155" xyz="0.028702 -0.0127 -0.059435"/>
    <parent link="RL_roller_group_link"/>
    <child link="RL_r7_roller_link"/>
    <axis xyz="1 0 0"/>
  </joint>
  <link name="RL_r7_roller_link">
    <visual>
      <geometry>
        <mesh filename="package://ul_omnibot/description/meshes/roller.dae"/>
      </geometry>
      <material name="white"/>
    </visual>
    <collision>
      <max_contacts>10</max_contacts>
      <geometry>
        <mesh filename="package://ul_omnibot/description/meshes/roller.stl"/>
      </geometry>
    </collision>
    <inertial>
      <origin xyz="0.0 0.0 0.0"/>
      <mass value="0.009"/>
      <inertia ixx="0.166667" ixy="0" ixz="0" iyy="0.166667" iyz="0" izz="0.166667"/>
    </inertial>
    <surface>
      <friction>
        <ode>
          <mu>1</mu>
          <mu2>1</mu2>
          <kp>1e15</kp>
          <kd>1e13</kd>
        </ode>
        <torsional>
          <coefficient>1</coefficient>
          <patch_radius>0</patch_radius>
          <surface_radius>0</surface_radius>
          <use_patch_radius>1</use_patch_radius>
          <ode>
            <slip>0</slip>
          </ode>
        </torsional>
      </friction>
      <bounce>
        <restitution_coefficient>0</restitution_coefficient>
        <threshold>1e+06</threshold>
      </bounce>
      <contact>
        <ode>
          <max_vel>10</max_vel>
        </ode>
      </contact>
    </surface>
  </link>
  <joint name="RL_r8_roller_joint" type="continuous">
    <origin rpy="0 0.220958 0" xyz="0.014478 0.0127 0.064515"/>
    <parent link="RL_roller_group_link"/>
    <child link="RL_r8_roller_link"/>
    <axis xyz="1 0 0"/>
  </joint>
  <link name="RL_r8_roller_link">
    <visual>
      <geometry>
        <mesh filename="package://ul_omnibot/description/meshes/roller.dae"/>
      </geometry>
      <material name="white"/>
    </visual>
    <collision>
      <max_contacts>10</max_contacts>
      <geometry>
        <mesh filename="package://ul_omnibot/description/meshes/roller.stl"/>
      </geometry>
    </collision>
    <inertial>
      <origin xyz="0.0 0.0 0.0"/>
      <mass value="0.009"/>
      <inertia ixx="0.166667" ixy="0" ixz="0" iyy="0.166667" iyz="0" izz="0.166667"/>
    </inertial>
    <surface>
      <friction>
        <ode>
          <mu>1</mu>
          <mu2>1</mu2>
          <kp>1e15</kp>
          <kd>1e13</kd>
        </ode>
        <torsional>
          <coefficient>1</coefficient>
          <patch_radius>0</patch_radius>
          <surface_radius>0</surface_radius>
          <use_patch_radius>1</use_patch_radius>
          <ode>
            <slip>0</slip>
          </ode>
        </torsional>
      </friction>
      <bounce>
        <restitution_coefficient>0</restitution_coefficient>
        <threshold>1e+06</threshold>
      </bounce>
      <contact>
        <ode>
          <max_vel>10</max_vel>
        </ode>
      </contact>
    </surface>
  </link>
  <joint name="RL_r9_roller_joint" type="continuous">
    <origin rpy="-3.1414 -0.220957 3.14157" xyz="-0.014478 0.0127 -0.064517"/>
    <parent link="RL_roller_group_link"/>
    <child link="RL_r9_roller_link"/>
    <axis xyz="1 0 0"/>
  </joint>
  <link name="RL_r9_roller_link">
    <visual>
      <geometry>
        <mesh filename="package://ul_omnibot/description/meshes/roller.dae"/>
      </geometry>
      <material name="white"/>
    </visual>
    <collision>
      <max_contacts>10</max_contacts>
      <geometry>
        <mesh filename="package://ul_omnibot/description/meshes/roller.stl"/>
      </geometry>
    </collision>
    <inertial>
      <origin xyz="0.0 0.0 0.0"/>
      <mass value="0.009"/>
      <inertia ixx="0.166667" ixy="0" ixz="0" iyy="0.166667" iyz="0" izz="0.166667"/>
    </inertial>
    <surface>
      <friction>
        <ode>
          <mu>1</mu>
          <mu2>1</mu2>
          <kp>1e15</kp>
          <kd>1e13</kd>
        </ode>
        <torsional>
          <coefficient>1</coefficient>
          <patch_radius>0</patch_radius>
          <surface_radius>0</surface_radius>
          <use_patch_radius>1</use_patch_radius>
          <ode>
            <slip>0</slip>
          </ode>
        </torsional>
      </friction>
      <bounce>
        <restitution_coefficient>0</restitution_coefficient>
        <threshold>1e+06</threshold>
      </bounce>
      <contact>
        <ode>
          <max_vel>10</max_vel>
        </ode>
      </contact>
    </surface>
  </link>
  <joint name="RL_r10_roller_joint" type="continuous">
    <origin rpy="-2.7e-05 0.669682 -7.6e-05" xyz="0.040894 0.0127 0.051815"/>
    <parent link="RL_roller_group_link"/>
    <child link="RL_r10_roller_link"/>
    <axis xyz="1 0 0"/>
  </joint>
  <link name="RL_r10_roller_link">
    <visual>
      <geometry>
        <mesh filename="package://ul_omnibot/description/meshes/roller.dae"/>
      </geometry>
      <material name="white"/>
    </visual>
    <collision>
      <max_contacts>10</max_contacts>
      <geometry>
        <mesh filename="package://ul_omnibot/description/meshes/roller.stl"/>
      </geometry>
    </collision>
    <inertial>
      <origin xyz="0.0 0.0 0.0"/>
      <mass value="0.009"/>
      <inertia ixx="0.166667" ixy="0" ixz="0" iyy="0.166667" iyz="0" izz="0.166667"/>
    </inertial>
    <surface>
      <friction>
        <ode>
          <mu>1</mu>
          <mu2>1</mu2>
          <kp>1e15</kp>
          <kd>1e13</kd>
        </ode>
        <torsional>
          <coefficient>1</coefficient>
          <patch_radius>0</patch_radius>
          <surface_radius>0</surface_radius>
          <use_patch_radius>1</use_patch_radius>
          <ode>
            <slip>0</slip>
          </ode>
        </torsional>
      </friction>
      <bounce>
        <restitution_coefficient>0</restitution_coefficient>
        <threshold>1e+06</threshold>
      </bounce>
      <contact>
        <ode>
          <max_vel>10</max_vel>
        </ode>
      </contact>
    </surface>
  </link>
  <joint name="RL_r11_roller_joint" type="continuous">
    <origin rpy="-3.14137 -0.669677 3.14152" xyz="-0.040894 0.0127 -0.051817"/>
    <parent link="RL_roller_group_link"/>
    <child link="RL_r11_roller_link"/>
    <axis xyz="1 0 0"/>
  </joint>
  <link name="RL_r11_roller_link">
    <visual>
      <geometry>
        <mesh filename="package://ul_omnibot/description/meshes/roller.dae"/>
      </geometry>
      <material name="white"/>
    </visual>
    <collision>
      <max_contacts>10</max_contacts>
      <geometry>
        <mesh filename="package://ul_omnibot/description/meshes/roller.stl"/>
      </geometry>
    </collision>
    <inertial>
      <origin xyz="0.0 0.0 0.0"/>
      <mass value="0.009"/>
      <inertia ixx="0.166667" ixy="0" ixz="0" iyy="0.166667" iyz="0" izz="0.166667"/>
    </inertial>
    <surface>
      <friction>
        <ode>
          <mu>1</mu>
          <mu2>1</mu2>
          <kp>1e15</kp>
          <kd>1e13</kd>
        </ode>
        <torsional>
          <coefficient>1</coefficient>
          <patch_radius>0</patch_radius>
          <surface_radius>0</surface_radius>
          <use_patch_radius>1</use_patch_radius>
          <ode>
            <slip>0</slip>
          </ode>
        </torsional>
      </friction>
      <bounce>
        <restitution_coefficient>0</restitution_coefficient>
        <threshold>1e+06</threshold>
      </bounce>
      <contact>
        <ode>
          <max_vel>10</max_vel>
        </ode>
      </contact>
    </surface>
  </link>
  <joint name="RL_r12_roller_joint" type="continuous">
    <origin rpy="-0.000124 1.11858 -0.000198" xyz="0.059436 0.0127 0.028955"/>
    <parent link="RL_roller_group_link"/>
    <child link="RL_r12_roller_link"/>
    <axis xyz="1 0 0"/>
  </joint>
  <link name="RL_r12_roller_link">
    <visual>
      <geometry>
        <mesh filename="package://ul_omnibot/description/meshes/roller.dae"/>
      </geometry>
      <material name="white"/>
    </visual>
    <collision>
      <max_contacts>10</max_contacts>
      <geometry>
        <mesh filename="package://ul_omnibot/description/meshes/roller.stl"/>
      </geometry>
    </collision>
    <inertial>
      <origin xyz="0.0 0.0 0.0"/>
      <mass value="0.009"/>
      <inertia ixx="0.166667" ixy="0" ixz="0" iyy="0.166667" iyz="0" izz="0.166667"/>
    </inertial>
    <surface>
      <friction>
        <ode>
          <mu>1</mu>
          <mu2>1</mu2>
          <kp>1e15</kp>
          <kd>1e13</kd>
        </ode>
        <torsional>
          <coefficient>1</coefficient>
          <patch_radius>0</patch_radius>
          <surface_radius>0</surface_radius>
          <use_patch_radius>1</use_patch_radius>
          <ode>
            <slip>0</slip>
          </ode>
        </torsional>
      </friction>
      <bounce>
        <restitution_coefficient>0</restitution_coefficient>
        <threshold>1e+06</threshold>
      </bounce>
      <contact>
        <ode>
          <max_vel>10</max_vel>
        </ode>
      </contact>
    </surface>
  </link>
  <joint name="RL_r13_roller_joint" type="continuous">
    <origin rpy="-3.14128 -1.11858 3.14139" xyz="-0.059436 0.0127 -0.028957"/>
    <parent link="RL_roller_group_link"/>
    <child link="RL_r13_roller_link"/>
    <axis xyz="1 0 0"/>
  </joint>
  <link name="RL_r13_roller_link">
    <visual>
      <geometry>
        <mesh filename="package://ul_omnibot/description/meshes/roller.dae"/>
      </geometry>
      <material name="white"/>
    </visual>
    <collision>
      <max_contacts>10</max_contacts>
      <geometry>
        <mesh filename="package://ul_omnibot/description/meshes/roller.stl"/>
      </geometry>
    </collision>
    <inertial>
      <origin xyz="0.0 0.0 0.0"/>
      <mass value="0.009"/>
      <inertia ixx="0.166667" ixy="0" ixz="0" iyy="0.166667" iyz="0" izz="0.166667"/>
    </inertial>
    <surface>
      <friction>
        <ode>
          <mu>1</mu>
          <mu2>1</mu2>
          <kp>1e15</kp>
          <kd>1e13</kd>
        </ode>
        <torsional>
          <coefficient>1</coefficient>
          <patch_radius>0</patch_radius>
          <surface_radius>0</surface_radius>
          <use_patch_radius>1</use_patch_radius>
          <ode>
            <slip>0</slip>
          </ode>
        </torsional>
      </friction>
      <bounce>
        <restitution_coefficient>0</restitution_coefficient>
        <threshold>1e+06</threshold>
      </bounce>
      <contact>
        <ode>
          <max_vel>10</max_vel>
        </ode>
      </contact>
    </surface>
  </link>
  <joint name="RL_r14_roller_joint" type="continuous">
    <origin rpy="-0.785326 1.57066 -0.785422" xyz="0.06604 0.0127 -0.000001"/>
    <parent link="RL_roller_group_link"/>
    <child link="RL_r14_roller_link"/>
    <axis xyz="1 0 0"/>
  </joint>
  <link name="RL_r14_roller_link">
    <visual>
      <geometry>
        <mesh filename="package://ul_omnibot/description/meshes/roller.dae"/>
      </geometry>
      <material name="white"/>
    </visual>
    <collision>
      <max_contacts>10</max_contacts>
      <geometry>
        <mesh filename="package://ul_omnibot/description/meshes/roller.stl"/>
      </geometry>
    </collision>
    <inertial>
      <origin xyz="0.0 0.0 0.0"/>
      <mass value="0.009"/>
      <inertia ixx="0.166667" ixy="0" ixz="0" iyy="0.166667" iyz="0" izz="0.166667"/>
    </inertial>
    <surface>
      <friction>
        <ode>
          <mu>1</mu>
          <mu2>1</mu2>
          <kp>1e15</kp>
          <kd>1e13</kd>
        </ode>
        <torsional>
          <coefficient>1</coefficient>
          <patch_radius>0</patch_radius>
          <surface_radius>0</surface_radius>
          <use_patch_radius>1</use_patch_radius>
          <ode>
            <slip>0</slip>
          </ode>
        </torsional>
      </friction>
      <bounce>
        <restitution_coefficient>0</restitution_coefficient>
        <threshold>1e+06</threshold>
      </bounce>
      <contact>
        <ode>
          <max_vel>10</max_vel>
        </ode>
      </contact>
    </surface>
  </link>
  <joint name="RL_r15_roller_joint" type="continuous">
    <origin rpy="-0.785326 -1.57066 0.785422" xyz="-0.06604 0.0127 -0.000001"/>
    <parent link="RL_roller_group_link"/>
    <child link="RL_r15_roller_link"/>
    <axis xyz="1 0 0"/>
  </joint>
  <link name="RL_r15_roller_link">
    <visual>
      <geometry>
        <mesh filename="package://ul_omnibot/description/meshes/roller.dae"/>
      </geometry>
      <material name="white"/>
    </visual>
    <collision>
      <max_contacts>10</max_contacts>
      <geometry>
        <mesh filename="package://ul_omnibot/description/meshes/roller.stl"/>
      </geometry>
    </collision>
    <inertial>
      <origin xyz="0.0 0.0 0.0"/>
      <mass value="0.009"/>
      <inertia ixx="0.166667" ixy="0" ixz="0" iyy="0.166667" iyz="0" izz="0.166667"/>
    </inertial>
    <surface>
      <friction>
        <ode>
          <mu>1</mu>
          <mu2>1</mu2>
          <kp>1e15</kp>
          <kd>1e13</kd>
        </ode>
        <torsional>
          <coefficient>1</coefficient>
          <patch_radius>0</patch_radius>
          <surface_radius>0</surface_radius>
          <use_patch_radius>1</use_patch_radius>
          <ode>
            <slip>0</slip>
          </ode>
        </torsional>
      </friction>
      <bounce>
        <restitution_coefficient>0</restitution_coefficient>
        <threshold>1e+06</threshold>
      </bounce>
      <contact>
        <ode>
          <max_vel>10</max_vel>
        </ode>
      </contact>
    </surface>
  </link>
  <joint name="RL_r16_roller_joint" type="continuous">
    <origin rpy="-3e-06 -0.22794 2.2e-05" xyz="-0.014986 0.0127 0.064261"/>
    <parent link="RL_roller_group_link"/>
    <child link="RL_r16_roller_link"/>
    <axis xyz="1 0 0"/>
  </joint>
  <link name="RL_r16_roller_link">
    <visual>
      <geometry>
        <mesh filename="package://ul_omnibot/description/meshes/roller.dae"/>
      </geometry>
      <material name="white"/>
    </visual>
    <collision>
      <max_contacts>10</max_contacts>
      <geometry>
        <mesh filename="package://ul_omnibot/description/meshes/roller.stl"/>
      </geometry>
    </collision>
    <inertial>
      <origin xyz="0.0 0.0 0.0"/>
      <mass value="0.009"/>
      <inertia ixx="0.166667" ixy="0" ixz="0" iyy="0.166667" iyz="0" izz="0.166667"/>
    </inertial>
    <surface>
      <friction>
        <ode>
          <mu>1</mu>
          <mu2>1</mu2>
          <kp>1e15</kp>
          <kd>1e13</kd>
        </ode>
        <torsional>
          <coefficient>1</coefficient>
          <patch_radius>0</patch_radius>
          <surface_radius>0</surface_radius>
          <use_patch_radius>1</use_patch_radius>
          <ode>
            <slip>0</slip>
          </ode>
        </torsional>
      </friction>
      <bounce>
        <restitution_coefficient>0</restitution_coefficient>
        <threshold>1e+06</threshold>
      </bounce>
      <contact>
        <ode>
          <max_vel>10</max_vel>
        </ode>
      </contact>
    </surface>
  </link>
  <joint name="RL_r17_roller_joint" type="continuous">
    <origin rpy="-3.1414 0.227937 -3.14157" xyz="0.014986 0.0127 -0.064263"/>
    <parent link="RL_roller_group_link"/>
    <child link="RL_r17_roller_link"/>
    <axis xyz="1 0 0"/>
  </joint>
  <link name="RL_r17_roller_link">
    <visual>
      <geometry>
        <mesh filename="package://ul_omnibot/description/meshes/roller.dae"/>
      </geometry>
      <material name="white"/>
    </visual>
    <collision>
      <max_contacts>10</max_contacts>
      <geometry>
        <mesh filename="package://ul_omnibot/description/meshes/roller.stl"/>
      </geometry>
    </collision>
    <inertial>
      <origin xyz="0.0 0.0 0.0"/>
      <mass value="0.009"/>
      <inertia ixx="0.166667" ixy="0" ixz="0" iyy="0.166667" iyz="0" izz="0.166667"/>
    </inertial>
    <surface>
      <friction>
        <ode>
          <mu>1</mu>
          <mu2>1</mu2>
          <kp>1e15</kp>
          <kd>1e13</kd>
        </ode>
        <torsional>
          <coefficient>1</coefficient>
          <patch_radius>0</patch_radius>
          <surface_radius>0</surface_radius>
          <use_patch_radius>1</use_patch_radius>
          <ode>
            <slip>0</slip>
          </ode>
        </torsional>
      </friction>
      <bounce>
        <restitution_coefficient>0</restitution_coefficient>
        <threshold>1e+06</threshold>
      </bounce>
      <contact>
        <ode>
          <max_vel>10</max_vel>
        </ode>
      </contact>
    </surface>
  </link>
  <joint name="RL_r18_roller_joint" type="continuous">
    <origin rpy="-2.7e-05 -0.676664 7.7e-05" xyz="-0.041402 0.0127 0.051561"/>
    <parent link="RL_roller_group_link"/>
    <child link="RL_r18_roller_link"/>
    <axis xyz="1 0 0"/>
  </joint>
  <link name="RL_r18_roller_link">
    <visual>
      <geometry>
        <mesh filename="package://ul_omnibot/description/meshes/roller.dae"/>
      </geometry>
      <material name="white"/>
    </visual>
    <collision>
      <max_contacts>10</max_contacts>
      <geometry>
        <mesh filename="package://ul_omnibot/description/meshes/roller.stl"/>
      </geometry>
    </collision>
    <inertial>
      <origin xyz="0.0 0.0 0.0"/>
      <mass value="0.009"/>
      <inertia ixx="0.166667" ixy="0" ixz="0" iyy="0.166667" iyz="0" izz="0.166667"/>
    </inertial>
    <surface>
      <friction>
        <ode>
          <mu>1</mu>
          <mu2>1</mu2>
          <kp>1e15</kp>
          <kd>1e13</kd>
        </ode>
        <torsional>
          <coefficient>1</coefficient>
          <patch_radius>0</patch_radius>
          <surface_radius>0</surface_radius>
          <use_patch_radius>1</use_patch_radius>
          <ode>
            <slip>0</slip>
          </ode>
        </torsional>
      </friction>
      <bounce>
        <restitution_coefficient>0</restitution_coefficient>
        <threshold>1e+06</threshold>
      </bounce>
      <contact>
        <ode>
          <max_vel>10</max_vel>
        </ode>
      </contact>
    </surface>
  </link>
  <joint name="RL_r19_roller_joint" type="continuous">
    <origin rpy="-3.14137 0.676607 -3.14152" xyz="0.041402 0.0127 -0.051563"/>
    <parent link="RL_roller_group_link"/>
    <child link="RL_r19_roller_link"/>
    <axis xyz="1 0 0"/>
  </joint>
  <link name="RL_r19_roller_link">
    <visual>
      <geometry>
        <mesh filename="package://ul_omnibot/description/meshes/roller.dae"/>
      </geometry>
      <material name="white"/>
    </visual>
    <collision>
      <max_contacts>10</max_contacts>
      <geometry>
        <mesh filename="package://ul_omnibot/description/meshes/roller.stl"/>
      </geometry>
    </collision>
    <inertial>
      <origin xyz="0.0 0.0 0.0"/>
      <mass value="0.009"/>
      <inertia ixx="0.166667" ixy="0" ixz="0" iyy="0.166667" iyz="0" izz="0.166667"/>
    </inertial>
    <surface>
      <friction>
        <ode>
          <mu>1</mu>
          <mu2>1</mu2>
          <kp>1e15</kp>
          <kd>1e13</kd>
        </ode>
        <torsional>
          <coefficient>1</coefficient>
          <patch_radius>0</patch_radius>
          <surface_radius>0</surface_radius>
          <use_patch_radius>1</use_patch_radius>
          <ode>
            <slip>0</slip>
          </ode>
        </torsional>
      </friction>
      <bounce>
        <restitution_coefficient>0</restitution_coefficient>
        <threshold>1e+06</threshold>
      </bounce>
      <contact>
        <ode>
          <max_vel>10</max_vel>
        </ode>
      </contact>
    </surface>
  </link>
  <joint name="RL_r20_roller_joint" type="continuous">
    <origin rpy="-3.14123 1.1952 -3.14135" xyz="0.05969 0.0127 -0.028449"/>
    <parent link="RL_roller_group_link"/>
    <child link="RL_r20_roller_link"/>
    <axis xyz="1 0 0"/>
  </joint>
  <link name="RL_r20_roller_link">
    <visual>
      <geometry>
        <mesh filename="package://ul_omnibot/description/meshes/roller.dae"/>
      </geometry>
      <material name="white"/>
    </visual>
    <collision>
      <max_contacts>10</max_contacts>
      <geometry>
        <mesh filename="package://ul_omnibot/description/meshes/roller.stl"/>
      </geometry>
    </collision>
    <inertial>
      <origin xyz="0.0 0.0 0.0"/>
      <mass value="0.009"/>
      <inertia ixx="0.166667" ixy="0" ixz="0" iyy="0.166667" iyz="0" izz="0.166667"/>
    </inertial>
    <surface>
      <friction>
        <ode>
          <mu>1</mu>
          <mu2>1</mu2>
          <kp>1e15</kp>
          <kd>1e13</kd>
        </ode>
        <torsional>
          <coefficient>1</coefficient>
          <patch_radius>0</patch_radius>
          <surface_radius>0</surface_radius>
          <use_patch_radius>1</use_patch_radius>
          <ode>
            <slip>0</slip>
          </ode>
        </torsional>
      </friction>
      <bounce>
        <restitution_coefficient>0</restitution_coefficient>
        <threshold>1e+06</threshold>
      </bounce>
      <contact>
        <ode>
          <max_vel>10</max_vel>
        </ode>
      </contact>
    </surface>
  </link>
  <joint name="RL_r21_roller_joint" type="continuous">
    <origin rpy="-1.1e-05 -0.448724 4.6e-05" xyz="-0.028702 -0.0127 0.059437"/>
    <parent link="RL_roller_group_link"/>
    <child link="RL_r21_roller_link"/>
    <axis xyz="1 0 0"/>
  </joint>
  <link name="RL_r21_roller_link">
    <visual>
      <geometry>
        <mesh filename="package://ul_omnibot/description/meshes/roller.dae"/>
      </geometry>
      <material name="white"/>
    </visual>
    <collision>
      <max_contacts>10</max_contacts>
      <geometry>
        <mesh filename="package://ul_omnibot/description/meshes/roller.stl"/>
      </geometry>
    </collision>
    <inertial>
      <origin xyz="0.0 0.0 0.0"/>
      <mass value="0.009"/>
      <inertia ixx="0.166667" ixy="0" ixz="0" iyy="0.166667" iyz="0" izz="0.166667"/>
    </inertial>
    <surface>
      <friction>
        <ode>
          <mu>1</mu>
          <mu2>1</mu2>
          <kp>1e15</kp>
          <kd>1e13</kd>
        </ode>
        <torsional>
          <coefficient>1</coefficient>
          <patch_radius>0</patch_radius>
          <surface_radius>0</surface_radius>
          <use_patch_radius>1</use_patch_radius>
          <ode>
            <slip>0</slip>
          </ode>
        </torsional>
      </friction>
      <bounce>
        <restitution_coefficient>0</restitution_coefficient>
        <threshold>1e+06</threshold>
      </bounce>
      <contact>
        <ode>
          <max_vel>10</max_vel>
        </ode>
      </contact>
    </surface>
  </link>
  <joint name="RL_r22_roller_joint" type="continuous">
    <origin rpy="-0.000123 -1.11701 0.000198" xyz="-0.05969 0.0127 0.028447"/>
    <parent link="RL_roller_group_link"/>
    <child link="RL_r22_roller_link"/>
    <axis xyz="1 0 0"/>
  </joint>
  <link name="RL_r22_roller_link">
    <visual>
      <geometry>
        <mesh filename="package://ul_omnibot/description/meshes/roller.dae"/>
      </geometry>
      <material name="white"/>
    </visual>
    <collision>
      <max_contacts>10</max_contacts>
      <geometry>
        <mesh filename="package://ul_omnibot/description/meshes/roller.stl"/>
      </geometry>
    </collision>
    <inertial>
      <origin xyz="0.0 0.0 0.0"/>
      <mass value="0.009"/>
      <inertia ixx="0.166667" ixy="0" ixz="0" iyy="0.166667" iyz="0" izz="0.166667"/>
    </inertial>
    <surface>
      <friction>
        <ode>
          <mu>1</mu>
          <mu2>1</mu2>
          <kp>1e15</kp>
          <kd>1e13</kd>
        </ode>
        <torsional>
          <coefficient>1</coefficient>
          <patch_radius>0</patch_radius>
          <surface_radius>0</surface_radius>
          <use_patch_radius>1</use_patch_radius>
          <ode>
            <slip>0</slip>
          </ode>
        </torsional>
      </friction>
      <bounce>
        <restitution_coefficient>0</restitution_coefficient>
        <threshold>1e+06</threshold>
      </bounce>
      <contact>
        <ode>
          <max_vel>10</max_vel>
        </ode>
      </contact>
    </surface>
  </link>
  <joint name="RL_r23_roller_joint" type="continuous">
    <origin rpy="-1.1e-05 0.448724 -4.6e-05" xyz="0.028702 -0.0127 0.059437"/>
    <parent link="RL_roller_group_link"/>
    <child link="RL_r23_roller_link"/>
    <axis xyz="1 0 0"/>
  </joint>
  <link name="RL_r23_roller_link">
    <visual>
      <geometry>
        <mesh filename="package://ul_omnibot/description/meshes/roller.dae"/>
      </geometry>
      <material name="white"/>
    </visual>
    <collision>
      <max_contacts>10</max_contacts>
      <geometry>
        <mesh filename="package://ul_omnibot/description/meshes/roller.stl"/>
      </geometry>
    </collision>
    <inertial>
      <origin xyz="0.0 0.0 0.0"/>
      <mass value="0.009"/>
      <inertia ixx="0.166667" ixy="0" ixz="0" iyy="0.166667" iyz="0" izz="0.166667"/>
    </inertial>
    <surface>
      <friction>
        <ode>
          <mu>1</mu>
          <mu2>1</mu2>
          <kp>1e15</kp>
          <kd>1e13</kd>
        </ode>
        <torsional>
          <coefficient>1</coefficient>
          <patch_radius>0</patch_radius>
          <surface_radius>0</surface_radius>
          <use_patch_radius>1</use_patch_radius>
          <ode>
            <slip>0</slip>
          </ode>
        </torsional>
      </friction>
      <bounce>
        <restitution_coefficient>0</restitution_coefficient>
        <threshold>1e+06</threshold>
      </bounce>
      <contact>
        <ode>
          <max_vel>10</max_vel>
        </ode>
      </contact>
    </surface>
  </link>
  <joint name="RL_r24_roller_joint" type="continuous">
    <origin rpy="-5.8e-05 -0.897622 0.000121" xyz="-0.051562 -0.0127 0.041149"/>
    <parent link="RL_roller_group_link"/>
    <child link="RL_r24_roller_link"/>
    <axis xyz="1 0 0"/>
  </joint>
  <link name="RL_r24_roller_link">
    <visual>
      <geometry>
        <mesh filename="package://ul_omnibot/description/meshes/roller.dae"/>
      </geometry>
      <material name="white"/>
    </visual>
    <collision>
      <max_contacts>10</max_contacts>
      <geometry>
        <mesh filename="package://ul_omnibot/description/meshes/roller.stl"/>
      </geometry>
    </collision>
    <inertial>
      <origin xyz="0.0 0.0 0.0"/>
      <mass value="0.009"/>
      <inertia ixx="0.166667" ixy="0" ixz="0" iyy="0.166667" iyz="0" izz="0.166667"/>
    </inertial>
    <surface>
      <friction>
        <ode>
          <mu>1</mu>
          <mu2>1</mu2>
          <kp>1e15</kp>
          <kd>1e13</kd>
        </ode>
        <torsional>
          <coefficient>1</coefficient>
          <patch_radius>0</patch_radius>
          <surface_radius>0</surface_radius>
          <use_patch_radius>1</use_patch_radius>
          <ode>
            <slip>0</slip>
          </ode>
        </torsional>
      </friction>
      <bounce>
        <restitution_coefficient>0</restitution_coefficient>
        <threshold>1e+06</threshold>
      </bounce>
      <contact>
        <ode>
          <max_vel>10</max_vel>
        </ode>
      </contact>
    </surface>
  </link>
  <joint name="RL_r25_roller_joint" type="continuous">
    <origin rpy="-5.8e-05 0.897622 -0.000121" xyz="0.051562 -0.0127 0.041149"/>
    <parent link="RL_roller_group_link"/>
    <child link="RL_r25_roller_link"/>
    <axis xyz="1 0 0"/>
  </joint>
  <link name="RL_r25_roller_link">
    <visual>
      <geometry>
        <mesh filename="package://ul_omnibot/description/meshes/roller.dae"/>
      </geometry>
      <material name="white"/>
    </visual>
    <collision>
      <max_contacts>10</max_contacts>
      <geometry>
        <mesh filename="package://ul_omnibot/description/meshes/roller.stl"/>
      </geometry>
    </collision>
    <inertial>
      <origin xyz="0.0 0.0 0.0"/>
      <mass value="0.009"/>
      <inertia ixx="0.166667" ixy="0" ixz="0" iyy="0.166667" iyz="0" izz="0.166667"/>
    </inertial>
    <surface>
      <friction>
        <ode>
          <mu>1</mu>
          <mu2>1</mu2>
          <kp>1e15</kp>
          <kd>1e13</kd>
        </ode>
        <torsional>
          <coefficient>1</coefficient>
          <patch_radius>0</patch_radius>
          <surface_radius>0</surface_radius>
          <use_patch_radius>1</use_patch_radius>
          <ode>
            <slip>0</slip>
          </ode>
        </torsional>
      </friction>
      <bounce>
        <restitution_coefficient>0</restitution_coefficient>
        <threshold>1e+06</threshold>
      </bounce>
      <contact>
        <ode>
          <max_vel>10</max_vel>
        </ode>
      </contact>
    </surface>
  </link>
  <joint name="RL_r26_roller_joint" type="continuous">
    <origin rpy="-0.000337 -1.34635 0.000422" xyz="-0.064262 -0.0127 0.014733"/>
    <parent link="RL_roller_group_link"/>
    <child link="RL_r26_roller_link"/>
    <axis xyz="1 0 0"/>
  </joint>
  <link name="RL_r26_roller_link">
    <visual>
      <geometry>
        <mesh filename="package://ul_omnibot/description/meshes/roller.dae"/>
      </geometry>
      <material name="white"/>
    </visual>
    <collision>
      <max_contacts>10</max_contacts>
      <geometry>
        <mesh filename="package://ul_omnibot/description/meshes/roller.stl"/>
      </geometry>
    </collision>
    <inertial>
      <origin xyz="0.0 0.0 0.0"/>
      <mass value="0.009"/>
      <inertia ixx="0.166667" ixy="0" ixz="0" iyy="0.166667" iyz="0" izz="0.166667"/>
    </inertial>
    <surface>
      <friction>
        <ode>
          <mu>1</mu>
          <mu2>1</mu2>
          <kp>1e15</kp>
          <kd>1e13</kd>
        </ode>
        <torsional>
          <coefficient>1</coefficient>
          <patch_radius>0</patch_radius>
          <surface_radius>0</surface_radius>
          <use_patch_radius>1</use_patch_radius>
          <ode>
            <slip>0</slip>
          </ode>
        </torsional>
      </friction>
      <bounce>
        <restitution_coefficient>0</restitution_coefficient>
        <threshold>1e+06</threshold>
      </bounce>
      <contact>
        <ode>
          <max_vel>10</max_vel>
        </ode>
      </contact>
    </surface>
  </link>
  <joint name="RL_r27_roller_joint" type="continuous">
    <origin rpy="-0.000337 1.34635 -0.000422" xyz="0.064262 -0.0127 0.014733"/>
    <parent link="RL_roller_group_link"/>
    <child link="RL_r27_roller_link"/>
    <axis xyz="1 0 0"/>
  </joint>
  <link name="RL_r27_roller_link">
    <visual>
      <geometry>
        <mesh filename="package://ul_omnibot/description/meshes/roller.dae"/>
      </geometry>
      <material name="white"/>
    </visual>
    <collision>
      <max_contacts>10</max_contacts>
      <geometry>
        <mesh filename="package://ul_omnibot/description/meshes/roller.stl"/>
      </geometry>
    </collision>
    <inertial>
      <origin xyz="0.0 0.0 0.0"/>
      <mass value="0.009"/>
      <inertia ixx="0.166667" ixy="0" ixz="0" iyy="0.166667" iyz="0" izz="0.166667"/>
    </inertial>
    <surface>
      <friction>
        <ode>
          <mu>1</mu>
          <mu2>1</mu2>
          <kp>1e15</kp>
          <kd>1e13</kd>
        </ode>
        <torsional>
          <coefficient>1</coefficient>
          <patch_radius>0</patch_radius>
          <surface_radius>0</surface_radius>
          <use_patch_radius>1</use_patch_radius>
          <ode>
            <slip>0</slip>
          </ode>
        </torsional>
      </friction>
      <bounce>
        <restitution_coefficient>0</restitution_coefficient>
        <threshold>1e+06</threshold>
      </bounce>
      <contact>
        <ode>
          <max_vel>10</max_vel>
        </ode>
      </contact>
    </surface>
  </link>
  <joint name="RL_r28_roller_joint" type="continuous">
    <origin rpy="-3.1414 3e-06 -3.14159" xyz="0 -0.0127 -0.066039"/>
    <parent link="RL_roller_group_link"/>
    <child link="RL_r28_roller_link"/>
    <axis xyz="1 0 0"/>
  </joint>
  <link name="RL_r28_roller_link">
    <visual>
      <geometry>
        <mesh filename="package://ul_omnibot/description/meshes/roller.dae"/>
      </geometry>
      <material name="white"/>
    </visual>
    <collision>
      <max_contacts>10</max_contacts>
      <geometry>
        <mesh filename="package://ul_omnibot/description/meshes/roller.stl"/>
      </geometry>
    </collision>
    <inertial>
      <origin xyz="0.0 0.0 0.0"/>
      <mass value="0.009"/>
      <inertia ixx="0.166667" ixy="0" ixz="0" iyy="0.166667" iyz="0" izz="0.166667"/>
    </inertial>
    <surface>
      <friction>
        <ode>
          <mu>1</mu>
          <mu2>1</mu2>
          <kp>1e15</kp>
          <kd>1e13</kd>
        </ode>
        <torsional>
          <coefficient>1</coefficient>
          <patch_radius>0</patch_radius>
          <surface_radius>0</surface_radius>
          <use_patch_radius>1</use_patch_radius>
          <ode>
            <slip>0</slip>
          </ode>
        </torsional>
      </friction>
      <bounce>
        <restitution_coefficient>0</restitution_coefficient>
        <threshold>1e+06</threshold>
      </bounce>
      <contact>
        <ode>
          <max_vel>10</max_vel>
        </ode>
      </contact>
    </surface>
  </link>
  <transmission name="RL_wheel_trans">
    <type>transmission_interface/SimpleTransmission</type>
    <joint name="RL_wheel_joint">
      <hardware_interface>hardware_interface/VelocityJointInterface</hardware_interface>
    </joint>
    <actuator name="RL_wheel_motor">
      <hardware_interface>hardware_interface/VelocityJointInterface</hardware_interface>
      <mechanicalReduction>30</mechanicalReduction>
    </actuator>
  </transmission>
  <gazebo reference="RL_wheel_link">
    <selfCollide>false</selfCollide>
    <mu1 value="0.8"/>
    <mu2 value="0.8"/>
    <material>Gazebo/Red</material>
  </gazebo>
  <joint name="RR_wheel_joint" type="continuous">
    <origin rpy="1.5707963267948966 0.0 -0.7853981633974483" xyz="-0.375 -0.375 0.0635"/>
    <parent link="base_link"/>
    <child link="RR_wheel_link"/>
    <limit effort="100" velocity="100"/>
    <axis xyz="0.0 0.0 -1."/>
  </joint>
  <link name="RR_wheel_link">
    <visual>
      <geometry>
        <mesh filename="package://ul_omnibot/description/meshes/hub.dae"/>
      </geometry>
    </visual>
    <collision>
      <geometry>
        <mesh filename="package://ul_omnibot/description/meshes/hub.stl"/>
      </geometry>
    </collision>
    <inertial>
      <origin xyz="0.0 -0.011 -0.0"/>
      <mass value="0.5"/>
      <inertia ixx="0.166667" ixy="0" ixz="0" iyy="0.166667" iyz="0" izz="0.166667"/>
    </inertial>
    <surface>
      <friction>
        <ode>
          <mu1>1</mu1>
          <mu2>1</mu2>
          <kp>1e15</kp>
          <kd>1e13</kd>
        </ode>
      </friction>
      <bounce>
        <restitution_coefficient>0</restitution_coefficient>
        <threshold>1e+06</threshold>
      </bounce>
      <contact>
        <ode>
          <max_vel>10</max_vel>
        </ode>
      </contact>
    </surface>
  </link>
  <joint name="RR_roller_group_joint" type="fixed">
    <origin rpy="-1.5707963267948966 0.0 0" xyz="0 0 0"/>
    <!-- <limit effort="1000.0" lower="0.0" upper="0.0" velocity="0.0"/>
                <axis xyz="0 0 0"/> -->
    <parent link="RR_wheel_link"/>
    <child link="RR_roller_group_link"/>
  </joint>
  <link name="RR_roller_group_link">
    <inertial>
      <mass value="0.00001"/>
      <inertia ixx="4.000000000000001e-12" ixy="0.0" ixz="0.0" iyy="4.000000000000001e-12" iyz="0.0" izz="4.000000000000001e-12"/>
      <origin xyz="0.0 0.0 0.0"/>
    </inertial>
  </link>
  <gazebo reference="RR_roller_group_link">
    <selfCollide>false</selfCollide>
    <material>Gazebo/Red</material>
  </gazebo>
  <joint name="RR_r1_roller_joint" type="continuous">
    <origin rpy="0 0 0" xyz="0 -0.0127 0.066041"/>
    <parent link="RR_roller_group_link"/>
    <child link="RR_r1_roller_link"/>
    <axis xyz="1 0 0"/>
  </joint>
  <link name="RR_r1_roller_link">
    <visual>
      <geometry>
        <mesh filename="package://ul_omnibot/description/meshes/roller.dae"/>
      </geometry>
      <material name="white"/>
    </visual>
    <collision>
      <max_contacts>10</max_contacts>
      <geometry>
        <mesh filename="package://ul_omnibot/description/meshes/roller.stl"/>
      </geometry>
    </collision>
    <inertial>
      <origin xyz="0.0 0.0 0.0"/>
      <mass value="0.009"/>
      <inertia ixx="0.166667" ixy="0" ixz="0" iyy="0.166667" iyz="0" izz="0.166667"/>
    </inertial>
    <surface>
      <friction>
        <ode>
          <mu>1</mu>
          <mu2>1</mu2>
          <kp>1e15</kp>
          <kd>1e13</kd>
        </ode>
        <torsional>
          <coefficient>1</coefficient>
          <patch_radius>0</patch_radius>
          <surface_radius>0</surface_radius>
          <use_patch_radius>1</use_patch_radius>
          <ode>
            <slip>0</slip>
          </ode>
        </torsional>
      </friction>
      <bounce>
        <restitution_coefficient>0</restitution_coefficient>
        <threshold>1e+06</threshold>
      </bounce>
      <contact>
        <ode>
          <max_vel>10</max_vel>
        </ode>
      </contact>
    </surface>
  </link>
  <joint name="RR_r2_roller_joint" type="continuous">
    <origin rpy="-3.14106 1.34635 -3.14117" xyz="0.064262 -0.0127 -0.014731"/>
    <parent link="RR_roller_group_link"/>
    <child link="RR_r2_roller_link"/>
    <axis xyz="1 0 0"/>
  </joint>
  <link name="RR_r2_roller_link">
    <visual>
      <geometry>
        <mesh filename="package://ul_omnibot/description/meshes/roller.dae"/>
      </geometry>
      <material name="white"/>
    </visual>
    <collision>
      <max_contacts>10</max_contacts>
      <geometry>
        <mesh filename="package://ul_omnibot/description/meshes/roller.stl"/>
      </geometry>
    </collision>
    <inertial>
      <origin xyz="0.0 0.0 0.0"/>
      <mass value="0.009"/>
      <inertia ixx="0.166667" ixy="0" ixz="0" iyy="0.166667" iyz="0" izz="0.166667"/>
    </inertial>
    <surface>
      <friction>
        <ode>
          <mu>1</mu>
          <mu2>1</mu2>
          <kp>1e15</kp>
          <kd>1e13</kd>
        </ode>
        <torsional>
          <coefficient>1</coefficient>
          <patch_radius>0</patch_radius>
          <surface_radius>0</surface_radius>
          <use_patch_radius>1</use_patch_radius>
          <ode>
            <slip>0</slip>
          </ode>
        </torsional>
      </friction>
      <bounce>
        <restitution_coefficient>0</restitution_coefficient>
        <threshold>1e+06</threshold>
      </bounce>
      <contact>
        <ode>
          <max_vel>10</max_vel>
        </ode>
      </contact>
    </surface>
  </link>
  <joint name="RR_r3_roller_joint" type="continuous">
    <origin rpy="-3.14106 -1.346396852 3.14117" xyz="-0.064262 -0.0127 -0.014731"/>
    <parent link="RR_roller_group_link"/>
    <child link="RR_r3_roller_link"/>
    <axis xyz="1 0 0"/>
  </joint>
  <link name="RR_r3_roller_link">
    <visual>
      <geometry>
        <mesh filename="package://ul_omnibot/description/meshes/roller.dae"/>
      </geometry>
      <material name="white"/>
    </visual>
    <collision>
      <max_contacts>10</max_contacts>
      <geometry>
        <mesh filename="package://ul_omnibot/description/meshes/roller.stl"/>
      </geometry>
    </collision>
    <inertial>
      <origin xyz="0.0 0.0 0.0"/>
      <mass value="0.009"/>
      <inertia ixx="0.166667" ixy="0" ixz="0" iyy="0.166667" iyz="0" izz="0.166667"/>
    </inertial>
    <surface>
      <friction>
        <ode>
          <mu>1</mu>
          <mu2>1</mu2>
          <kp>1e15</kp>
          <kd>1e13</kd>
        </ode>
        <torsional>
          <coefficient>1</coefficient>
          <patch_radius>0</patch_radius>
          <surface_radius>0</surface_radius>
          <use_patch_radius>1</use_patch_radius>
          <ode>
            <slip>0</slip>
          </ode>
        </torsional>
      </friction>
      <bounce>
        <restitution_coefficient>0</restitution_coefficient>
        <threshold>1e+06</threshold>
      </bounce>
      <contact>
        <ode>
          <max_vel>10</max_vel>
        </ode>
      </contact>
    </surface>
  </link>
  <joint name="RR_r4_roller_joint" type="continuous">
    <origin rpy="-3.14134 -0.897624 3.14147" xyz="-0.051562 -0.0127 -0.041147"/>
    <parent link="RR_roller_group_link"/>
    <child link="RR_r4_roller_link"/>
    <axis xyz="1 0 0"/>
  </joint>
  <link name="RR_r4_roller_link">
    <visual>
      <geometry>
        <mesh filename="package://ul_omnibot/description/meshes/roller.dae"/>
      </geometry>
      <material name="white"/>
    </visual>
    <collision>
      <max_contacts>10</max_contacts>
      <geometry>
        <mesh filename="package://ul_omnibot/description/meshes/roller.stl"/>
      </geometry>
    </collision>
    <inertial>
      <origin xyz="0.0 0.0 0.0"/>
      <mass value="0.009"/>
      <inertia ixx="0.166667" ixy="0" ixz="0" iyy="0.166667" iyz="0" izz="0.166667"/>
    </inertial>
    <surface>
      <friction>
        <ode>
          <mu>1</mu>
          <mu2>1</mu2>
          <kp>1e15</kp>
          <kd>1e13</kd>
        </ode>
        <torsional>
          <coefficient>1</coefficient>
          <patch_radius>0</patch_radius>
          <surface_radius>0</surface_radius>
          <use_patch_radius>1</use_patch_radius>
          <ode>
            <slip>0</slip>
          </ode>
        </torsional>
      </friction>
      <bounce>
        <restitution_coefficient>0</restitution_coefficient>
        <threshold>1e+06</threshold>
      </bounce>
      <contact>
        <ode>
          <max_vel>10</max_vel>
        </ode>
      </contact>
    </surface>
  </link>
  <joint name="RR_r5_roller_joint" type="continuous">
    <origin rpy="-3.14134 0.897624 -3.14147" xyz="0.051562 -0.0127 -0.041147"/>
    <parent link="RR_roller_group_link"/>
    <child link="RR_r5_roller_link"/>
    <axis xyz="1 0 0"/>
  </joint>
  <link name="RR_r5_roller_link">
    <visual>
      <geometry>
        <mesh filename="package://ul_omnibot/description/meshes/roller.dae"/>
      </geometry>
      <material name="white"/>
    </visual>
    <collision>
      <max_contacts>10</max_contacts>
      <geometry>
        <mesh filename="package://ul_omnibot/description/meshes/roller.stl"/>
      </geometry>
    </collision>
    <inertial>
      <origin xyz="0.0 0.0 0.0"/>
      <mass value="0.009"/>
      <inertia ixx="0.166667" ixy="0" ixz="0" iyy="0.166667" iyz="0" izz="0.166667"/>
    </inertial>
    <surface>
      <friction>
        <ode>
          <mu>1</mu>
          <mu2>1</mu2>
          <kp>1e15</kp>
          <kd>1e13</kd>
        </ode>
        <torsional>
          <coefficient>1</coefficient>
          <patch_radius>0</patch_radius>
          <surface_radius>0</surface_radius>
          <use_patch_radius>1</use_patch_radius>
          <ode>
            <slip>0</slip>
          </ode>
        </torsional>
      </friction>
      <bounce>
        <restitution_coefficient>0</restitution_coefficient>
        <threshold>1e+06</threshold>
      </bounce>
      <contact>
        <ode>
          <max_vel>10</max_vel>
        </ode>
      </contact>
    </surface>
  </link>
  <joint name="RR_r6_roller_joint" type="continuous">
    <origin rpy="-3.14139 -0.448725 3.14155" xyz="-0.028702 -0.0127 -0.059435"/>
    <parent link="RR_roller_group_link"/>
    <child link="RR_r6_roller_link"/>
    <axis xyz="1 0 0"/>
  </joint>
  <link name="RR_r6_roller_link">
    <visual>
      <geometry>
        <mesh filename="package://ul_omnibot/description/meshes/roller.dae"/>
      </geometry>
      <material name="white"/>
    </visual>
    <collision>
      <max_contacts>10</max_contacts>
      <geometry>
        <mesh filename="package://ul_omnibot/description/meshes/roller.stl"/>
      </geometry>
    </collision>
    <inertial>
      <origin xyz="0.0 0.0 0.0"/>
      <mass value="0.009"/>
      <inertia ixx="0.166667" ixy="0" ixz="0" iyy="0.166667" iyz="0" izz="0.166667"/>
    </inertial>
    <surface>
      <friction>
        <ode>
          <mu>1</mu>
          <mu2>1</mu2>
          <kp>1e15</kp>
          <kd>1e13</kd>
        </ode>
        <torsional>
          <coefficient>1</coefficient>
          <patch_radius>0</patch_radius>
          <surface_radius>0</surface_radius>
          <use_patch_radius>1</use_patch_radius>
          <ode>
            <slip>0</slip>
          </ode>
        </torsional>
      </friction>
      <bounce>
        <restitution_coefficient>0</restitution_coefficient>
        <threshold>1e+06</threshold>
      </bounce>
      <contact>
        <ode>
          <max_vel>10</max_vel>
        </ode>
      </contact>
    </surface>
  </link>
  <joint name="RR_r7_roller_joint" type="continuous">
    <origin rpy="-3.14139 0.448793 -3.14155" xyz="0.028702 -0.0127 -0.059435"/>
    <parent link="RR_roller_group_link"/>
    <child link="RR_r7_roller_link"/>
    <axis xyz="1 0 0"/>
  </joint>
  <link name="RR_r7_roller_link">
    <visual>
      <geometry>
        <mesh filename="package://ul_omnibot/description/meshes/roller.dae"/>
      </geometry>
      <material name="white"/>
    </visual>
    <collision>
      <max_contacts>10</max_contacts>
      <geometry>
        <mesh filename="package://ul_omnibot/description/meshes/roller.stl"/>
      </geometry>
    </collision>
    <inertial>
      <origin xyz="0.0 0.0 0.0"/>
      <mass value="0.009"/>
      <inertia ixx="0.166667" ixy="0" ixz="0" iyy="0.166667" iyz="0" izz="0.166667"/>
    </inertial>
    <surface>
      <friction>
        <ode>
          <mu>1</mu>
          <mu2>1</mu2>
          <kp>1e15</kp>
          <kd>1e13</kd>
        </ode>
        <torsional>
          <coefficient>1</coefficient>
          <patch_radius>0</patch_radius>
          <surface_radius>0</surface_radius>
          <use_patch_radius>1</use_patch_radius>
          <ode>
            <slip>0</slip>
          </ode>
        </torsional>
      </friction>
      <bounce>
        <restitution_coefficient>0</restitution_coefficient>
        <threshold>1e+06</threshold>
      </bounce>
      <contact>
        <ode>
          <max_vel>10</max_vel>
        </ode>
      </contact>
    </surface>
  </link>
  <joint name="RR_r8_roller_joint" type="continuous">
    <origin rpy="0 0.220958 0" xyz="0.014478 0.0127 0.064515"/>
    <parent link="RR_roller_group_link"/>
    <child link="RR_r8_roller_link"/>
    <axis xyz="1 0 0"/>
  </joint>
  <link name="RR_r8_roller_link">
    <visual>
      <geometry>
        <mesh filename="package://ul_omnibot/description/meshes/roller.dae"/>
      </geometry>
      <material name="white"/>
    </visual>
    <collision>
      <max_contacts>10</max_contacts>
      <geometry>
        <mesh filename="package://ul_omnibot/description/meshes/roller.stl"/>
      </geometry>
    </collision>
    <inertial>
      <origin xyz="0.0 0.0 0.0"/>
      <mass value="0.009"/>
      <inertia ixx="0.166667" ixy="0" ixz="0" iyy="0.166667" iyz="0" izz="0.166667"/>
    </inertial>
    <surface>
      <friction>
        <ode>
          <mu>1</mu>
          <mu2>1</mu2>
          <kp>1e15</kp>
          <kd>1e13</kd>
        </ode>
        <torsional>
          <coefficient>1</coefficient>
          <patch_radius>0</patch_radius>
          <surface_radius>0</surface_radius>
          <use_patch_radius>1</use_patch_radius>
          <ode>
            <slip>0</slip>
          </ode>
        </torsional>
      </friction>
      <bounce>
        <restitution_coefficient>0</restitution_coefficient>
        <threshold>1e+06</threshold>
      </bounce>
      <contact>
        <ode>
          <max_vel>10</max_vel>
        </ode>
      </contact>
    </surface>
  </link>
  <joint name="RR_r9_roller_joint" type="continuous">
    <origin rpy="-3.1414 -0.220957 3.14157" xyz="-0.014478 0.0127 -0.064517"/>
    <parent link="RR_roller_group_link"/>
    <child link="RR_r9_roller_link"/>
    <axis xyz="1 0 0"/>
  </joint>
  <link name="RR_r9_roller_link">
    <visual>
      <geometry>
        <mesh filename="package://ul_omnibot/description/meshes/roller.dae"/>
      </geometry>
      <material name="white"/>
    </visual>
    <collision>
      <max_contacts>10</max_contacts>
      <geometry>
        <mesh filename="package://ul_omnibot/description/meshes/roller.stl"/>
      </geometry>
    </collision>
    <inertial>
      <origin xyz="0.0 0.0 0.0"/>
      <mass value="0.009"/>
      <inertia ixx="0.166667" ixy="0" ixz="0" iyy="0.166667" iyz="0" izz="0.166667"/>
    </inertial>
    <surface>
      <friction>
        <ode>
          <mu>1</mu>
          <mu2>1</mu2>
          <kp>1e15</kp>
          <kd>1e13</kd>
        </ode>
        <torsional>
          <coefficient>1</coefficient>
          <patch_radius>0</patch_radius>
          <surface_radius>0</surface_radius>
          <use_patch_radius>1</use_patch_radius>
          <ode>
            <slip>0</slip>
          </ode>
        </torsional>
      </friction>
      <bounce>
        <restitution_coefficient>0</restitution_coefficient>
        <threshold>1e+06</threshold>
      </bounce>
      <contact>
        <ode>
          <max_vel>10</max_vel>
        </ode>
      </contact>
    </surface>
  </link>
  <joint name="RR_r10_roller_joint" type="continuous">
    <origin rpy="-2.7e-05 0.669682 -7.6e-05" xyz="0.040894 0.0127 0.051815"/>
    <parent link="RR_roller_group_link"/>
    <child link="RR_r10_roller_link"/>
    <axis xyz="1 0 0"/>
  </joint>
  <link name="RR_r10_roller_link">
    <visual>
      <geometry>
        <mesh filename="package://ul_omnibot/description/meshes/roller.dae"/>
      </geometry>
      <material name="white"/>
    </visual>
    <collision>
      <max_contacts>10</max_contacts>
      <geometry>
        <mesh filename="package://ul_omnibot/description/meshes/roller.stl"/>
      </geometry>
    </collision>
    <inertial>
      <origin xyz="0.0 0.0 0.0"/>
      <mass value="0.009"/>
      <inertia ixx="0.166667" ixy="0" ixz="0" iyy="0.166667" iyz="0" izz="0.166667"/>
    </inertial>
    <surface>
      <friction>
        <ode>
          <mu>1</mu>
          <mu2>1</mu2>
          <kp>1e15</kp>
          <kd>1e13</kd>
        </ode>
        <torsional>
          <coefficient>1</coefficient>
          <patch_radius>0</patch_radius>
          <surface_radius>0</surface_radius>
          <use_patch_radius>1</use_patch_radius>
          <ode>
            <slip>0</slip>
          </ode>
        </torsional>
      </friction>
      <bounce>
        <restitution_coefficient>0</restitution_coefficient>
        <threshold>1e+06</threshold>
      </bounce>
      <contact>
        <ode>
          <max_vel>10</max_vel>
        </ode>
      </contact>
    </surface>
  </link>
  <joint name="RR_r11_roller_joint" type="continuous">
    <origin rpy="-3.14137 -0.669677 3.14152" xyz="-0.040894 0.0127 -0.051817"/>
    <parent link="RR_roller_group_link"/>
    <child link="RR_r11_roller_link"/>
    <axis xyz="1 0 0"/>
  </joint>
  <link name="RR_r11_roller_link">
    <visual>
      <geometry>
        <mesh filename="package://ul_omnibot/description/meshes/roller.dae"/>
      </geometry>
      <material name="white"/>
    </visual>
    <collision>
      <max_contacts>10</max_contacts>
      <geometry>
        <mesh filename="package://ul_omnibot/description/meshes/roller.stl"/>
      </geometry>
    </collision>
    <inertial>
      <origin xyz="0.0 0.0 0.0"/>
      <mass value="0.009"/>
      <inertia ixx="0.166667" ixy="0" ixz="0" iyy="0.166667" iyz="0" izz="0.166667"/>
    </inertial>
    <surface>
      <friction>
        <ode>
          <mu>1</mu>
          <mu2>1</mu2>
          <kp>1e15</kp>
          <kd>1e13</kd>
        </ode>
        <torsional>
          <coefficient>1</coefficient>
          <patch_radius>0</patch_radius>
          <surface_radius>0</surface_radius>
          <use_patch_radius>1</use_patch_radius>
          <ode>
            <slip>0</slip>
          </ode>
        </torsional>
      </friction>
      <bounce>
        <restitution_coefficient>0</restitution_coefficient>
        <threshold>1e+06</threshold>
      </bounce>
      <contact>
        <ode>
          <max_vel>10</max_vel>
        </ode>
      </contact>
    </surface>
  </link>
  <joint name="RR_r12_roller_joint" type="continuous">
    <origin rpy="-0.000124 1.11858 -0.000198" xyz="0.059436 0.0127 0.028955"/>
    <parent link="RR_roller_group_link"/>
    <child link="RR_r12_roller_link"/>
    <axis xyz="1 0 0"/>
  </joint>
  <link name="RR_r12_roller_link">
    <visual>
      <geometry>
        <mesh filename="package://ul_omnibot/description/meshes/roller.dae"/>
      </geometry>
      <material name="white"/>
    </visual>
    <collision>
      <max_contacts>10</max_contacts>
      <geometry>
        <mesh filename="package://ul_omnibot/description/meshes/roller.stl"/>
      </geometry>
    </collision>
    <inertial>
      <origin xyz="0.0 0.0 0.0"/>
      <mass value="0.009"/>
      <inertia ixx="0.166667" ixy="0" ixz="0" iyy="0.166667" iyz="0" izz="0.166667"/>
    </inertial>
    <surface>
      <friction>
        <ode>
          <mu>1</mu>
          <mu2>1</mu2>
          <kp>1e15</kp>
          <kd>1e13</kd>
        </ode>
        <torsional>
          <coefficient>1</coefficient>
          <patch_radius>0</patch_radius>
          <surface_radius>0</surface_radius>
          <use_patch_radius>1</use_patch_radius>
          <ode>
            <slip>0</slip>
          </ode>
        </torsional>
      </friction>
      <bounce>
        <restitution_coefficient>0</restitution_coefficient>
        <threshold>1e+06</threshold>
      </bounce>
      <contact>
        <ode>
          <max_vel>10</max_vel>
        </ode>
      </contact>
    </surface>
  </link>
  <joint name="RR_r13_roller_joint" type="continuous">
    <origin rpy="-3.14128 -1.11858 3.14139" xyz="-0.059436 0.0127 -0.028957"/>
    <parent link="RR_roller_group_link"/>
    <child link="RR_r13_roller_link"/>
    <axis xyz="1 0 0"/>
  </joint>
  <link name="RR_r13_roller_link">
    <visual>
      <geometry>
        <mesh filename="package://ul_omnibot/description/meshes/roller.dae"/>
      </geometry>
      <material name="white"/>
    </visual>
    <collision>
      <max_contacts>10</max_contacts>
      <geometry>
        <mesh filename="package://ul_omnibot/description/meshes/roller.stl"/>
      </geometry>
    </collision>
    <inertial>
      <origin xyz="0.0 0.0 0.0"/>
      <mass value="0.009"/>
      <inertia ixx="0.166667" ixy="0" ixz="0" iyy="0.166667" iyz="0" izz="0.166667"/>
    </inertial>
    <surface>
      <friction>
        <ode>
          <mu>1</mu>
          <mu2>1</mu2>
          <kp>1e15</kp>
          <kd>1e13</kd>
        </ode>
        <torsional>
          <coefficient>1</coefficient>
          <patch_radius>0</patch_radius>
          <surface_radius>0</surface_radius>
          <use_patch_radius>1</use_patch_radius>
          <ode>
            <slip>0</slip>
          </ode>
        </torsional>
      </friction>
      <bounce>
        <restitution_coefficient>0</restitution_coefficient>
        <threshold>1e+06</threshold>
      </bounce>
      <contact>
        <ode>
          <max_vel>10</max_vel>
        </ode>
      </contact>
    </surface>
  </link>
  <joint name="RR_r14_roller_joint" type="continuous">
    <origin rpy="-0.785326 1.57066 -0.785422" xyz="0.06604 0.0127 -0.000001"/>
    <parent link="RR_roller_group_link"/>
    <child link="RR_r14_roller_link"/>
    <axis xyz="1 0 0"/>
  </joint>
  <link name="RR_r14_roller_link">
    <visual>
      <geometry>
        <mesh filename="package://ul_omnibot/description/meshes/roller.dae"/>
      </geometry>
      <material name="white"/>
    </visual>
    <collision>
      <max_contacts>10</max_contacts>
      <geometry>
        <mesh filename="package://ul_omnibot/description/meshes/roller.stl"/>
      </geometry>
    </collision>
    <inertial>
      <origin xyz="0.0 0.0 0.0"/>
      <mass value="0.009"/>
      <inertia ixx="0.166667" ixy="0" ixz="0" iyy="0.166667" iyz="0" izz="0.166667"/>
    </inertial>
    <surface>
      <friction>
        <ode>
          <mu>1</mu>
          <mu2>1</mu2>
          <kp>1e15</kp>
          <kd>1e13</kd>
        </ode>
        <torsional>
          <coefficient>1</coefficient>
          <patch_radius>0</patch_radius>
          <surface_radius>0</surface_radius>
          <use_patch_radius>1</use_patch_radius>
          <ode>
            <slip>0</slip>
          </ode>
        </torsional>
      </friction>
      <bounce>
        <restitution_coefficient>0</restitution_coefficient>
        <threshold>1e+06</threshold>
      </bounce>
      <contact>
        <ode>
          <max_vel>10</max_vel>
        </ode>
      </contact>
    </surface>
  </link>
  <joint name="RR_r15_roller_joint" type="continuous">
    <origin rpy="-0.785326 -1.57066 0.785422" xyz="-0.06604 0.0127 -0.000001"/>
    <parent link="RR_roller_group_link"/>
    <child link="RR_r15_roller_link"/>
    <axis xyz="1 0 0"/>
  </joint>
  <link name="RR_r15_roller_link">
    <visual>
      <geometry>
        <mesh filename="package://ul_omnibot/description/meshes/roller.dae"/>
      </geometry>
      <material name="white"/>
    </visual>
    <collision>
      <max_contacts>10</max_contacts>
      <geometry>
        <mesh filename="package://ul_omnibot/description/meshes/roller.stl"/>
      </geometry>
    </collision>
    <inertial>
      <origin xyz="0.0 0.0 0.0"/>
      <mass value="0.009"/>
      <inertia ixx="0.166667" ixy="0" ixz="0" iyy="0.166667" iyz="0" izz="0.166667"/>
    </inertial>
    <surface>
      <friction>
        <ode>
          <mu>1</mu>
          <mu2>1</mu2>
          <kp>1e15</kp>
          <kd>1e13</kd>
        </ode>
        <torsional>
          <coefficient>1</coefficient>
          <patch_radius>0</patch_radius>
          <surface_radius>0</surface_radius>
          <use_patch_radius>1</use_patch_radius>
          <ode>
            <slip>0</slip>
          </ode>
        </torsional>
      </friction>
      <bounce>
        <restitution_coefficient>0</restitution_coefficient>
        <threshold>1e+06</threshold>
      </bounce>
      <contact>
        <ode>
          <max_vel>10</max_vel>
        </ode>
      </contact>
    </surface>
  </link>
  <joint name="RR_r16_roller_joint" type="continuous">
    <origin rpy="-3e-06 -0.22794 2.2e-05" xyz="-0.014986 0.0127 0.064261"/>
    <parent link="RR_roller_group_link"/>
    <child link="RR_r16_roller_link"/>
    <axis xyz="1 0 0"/>
  </joint>
  <link name="RR_r16_roller_link">
    <visual>
      <geometry>
        <mesh filename="package://ul_omnibot/description/meshes/roller.dae"/>
      </geometry>
      <material name="white"/>
    </visual>
    <collision>
      <max_contacts>10</max_contacts>
      <geometry>
        <mesh filename="package://ul_omnibot/description/meshes/roller.stl"/>
      </geometry>
    </collision>
    <inertial>
      <origin xyz="0.0 0.0 0.0"/>
      <mass value="0.009"/>
      <inertia ixx="0.166667" ixy="0" ixz="0" iyy="0.166667" iyz="0" izz="0.166667"/>
    </inertial>
    <surface>
      <friction>
        <ode>
          <mu>1</mu>
          <mu2>1</mu2>
          <kp>1e15</kp>
          <kd>1e13</kd>
        </ode>
        <torsional>
          <coefficient>1</coefficient>
          <patch_radius>0</patch_radius>
          <surface_radius>0</surface_radius>
          <use_patch_radius>1</use_patch_radius>
          <ode>
            <slip>0</slip>
          </ode>
        </torsional>
      </friction>
      <bounce>
        <restitution_coefficient>0</restitution_coefficient>
        <threshold>1e+06</threshold>
      </bounce>
      <contact>
        <ode>
          <max_vel>10</max_vel>
        </ode>
      </contact>
    </surface>
  </link>
  <joint name="RR_r17_roller_joint" type="continuous">
    <origin rpy="-3.1414 0.227937 -3.14157" xyz="0.014986 0.0127 -0.064263"/>
    <parent link="RR_roller_group_link"/>
    <child link="RR_r17_roller_link"/>
    <axis xyz="1 0 0"/>
  </joint>
  <link name="RR_r17_roller_link">
    <visual>
      <geometry>
        <mesh filename="package://ul_omnibot/description/meshes/roller.dae"/>
      </geometry>
      <material name="white"/>
    </visual>
    <collision>
      <max_contacts>10</max_contacts>
      <geometry>
        <mesh filename="package://ul_omnibot/description/meshes/roller.stl"/>
      </geometry>
    </collision>
    <inertial>
      <origin xyz="0.0 0.0 0.0"/>
      <mass value="0.009"/>
      <inertia ixx="0.166667" ixy="0" ixz="0" iyy="0.166667" iyz="0" izz="0.166667"/>
    </inertial>
    <surface>
      <friction>
        <ode>
          <mu>1</mu>
          <mu2>1</mu2>
          <kp>1e15</kp>
          <kd>1e13</kd>
        </ode>
        <torsional>
          <coefficient>1</coefficient>
          <patch_radius>0</patch_radius>
          <surface_radius>0</surface_radius>
          <use_patch_radius>1</use_patch_radius>
          <ode>
            <slip>0</slip>
          </ode>
        </torsional>
      </friction>
      <bounce>
        <restitution_coefficient>0</restitution_coefficient>
        <threshold>1e+06</threshold>
      </bounce>
      <contact>
        <ode>
          <max_vel>10</max_vel>
        </ode>
      </contact>
    </surface>
  </link>
  <joint name="RR_r18_roller_joint" type="continuous">
    <origin rpy="-2.7e-05 -0.676664 7.7e-05" xyz="-0.041402 0.0127 0.051561"/>
    <parent link="RR_roller_group_link"/>
    <child link="RR_r18_roller_link"/>
    <axis xyz="1 0 0"/>
  </joint>
  <link name="RR_r18_roller_link">
    <visual>
      <geometry>
        <mesh filename="package://ul_omnibot/description/meshes/roller.dae"/>
      </geometry>
      <material name="white"/>
    </visual>
    <collision>
      <max_contacts>10</max_contacts>
      <geometry>
        <mesh filename="package://ul_omnibot/description/meshes/roller.stl"/>
      </geometry>
    </collision>
    <inertial>
      <origin xyz="0.0 0.0 0.0"/>
      <mass value="0.009"/>
      <inertia ixx="0.166667" ixy="0" ixz="0" iyy="0.166667" iyz="0" izz="0.166667"/>
    </inertial>
    <surface>
      <friction>
        <ode>
          <mu>1</mu>
          <mu2>1</mu2>
          <kp>1e15</kp>
          <kd>1e13</kd>
        </ode>
        <torsional>
          <coefficient>1</coefficient>
          <patch_radius>0</patch_radius>
          <surface_radius>0</surface_radius>
          <use_patch_radius>1</use_patch_radius>
          <ode>
            <slip>0</slip>
          </ode>
        </torsional>
      </friction>
      <bounce>
        <restitution_coefficient>0</restitution_coefficient>
        <threshold>1e+06</threshold>
      </bounce>
      <contact>
        <ode>
          <max_vel>10</max_vel>
        </ode>
      </contact>
    </surface>
  </link>
  <joint name="RR_r19_roller_joint" type="continuous">
    <origin rpy="-3.14137 0.676607 -3.14152" xyz="0.041402 0.0127 -0.051563"/>
    <parent link="RR_roller_group_link"/>
    <child link="RR_r19_roller_link"/>
    <axis xyz="1 0 0"/>
  </joint>
  <link name="RR_r19_roller_link">
    <visual>
      <geometry>
        <mesh filename="package://ul_omnibot/description/meshes/roller.dae"/>
      </geometry>
      <material name="white"/>
    </visual>
    <collision>
      <max_contacts>10</max_contacts>
      <geometry>
        <mesh filename="package://ul_omnibot/description/meshes/roller.stl"/>
      </geometry>
    </collision>
    <inertial>
      <origin xyz="0.0 0.0 0.0"/>
      <mass value="0.009"/>
      <inertia ixx="0.166667" ixy="0" ixz="0" iyy="0.166667" iyz="0" izz="0.166667"/>
    </inertial>
    <surface>
      <friction>
        <ode>
          <mu>1</mu>
          <mu2>1</mu2>
          <kp>1e15</kp>
          <kd>1e13</kd>
        </ode>
        <torsional>
          <coefficient>1</coefficient>
          <patch_radius>0</patch_radius>
          <surface_radius>0</surface_radius>
          <use_patch_radius>1</use_patch_radius>
          <ode>
            <slip>0</slip>
          </ode>
        </torsional>
      </friction>
      <bounce>
        <restitution_coefficient>0</restitution_coefficient>
        <threshold>1e+06</threshold>
      </bounce>
      <contact>
        <ode>
          <max_vel>10</max_vel>
        </ode>
      </contact>
    </surface>
  </link>
  <joint name="RR_r20_roller_joint" type="continuous">
    <origin rpy="-3.14123 1.1952 -3.14135" xyz="0.05969 0.0127 -0.028449"/>
    <parent link="RR_roller_group_link"/>
    <child link="RR_r20_roller_link"/>
    <axis xyz="1 0 0"/>
  </joint>
  <link name="RR_r20_roller_link">
    <visual>
      <geometry>
        <mesh filename="package://ul_omnibot/description/meshes/roller.dae"/>
      </geometry>
      <material name="white"/>
    </visual>
    <collision>
      <max_contacts>10</max_contacts>
      <geometry>
        <mesh filename="package://ul_omnibot/description/meshes/roller.stl"/>
      </geometry>
    </collision>
    <inertial>
      <origin xyz="0.0 0.0 0.0"/>
      <mass value="0.009"/>
      <inertia ixx="0.166667" ixy="0" ixz="0" iyy="0.166667" iyz="0" izz="0.166667"/>
    </inertial>
    <surface>
      <friction>
        <ode>
          <mu>1</mu>
          <mu2>1</mu2>
          <kp>1e15</kp>
          <kd>1e13</kd>
        </ode>
        <torsional>
          <coefficient>1</coefficient>
          <patch_radius>0</patch_radius>
          <surface_radius>0</surface_radius>
          <use_patch_radius>1</use_patch_radius>
          <ode>
            <slip>0</slip>
          </ode>
        </torsional>
      </friction>
      <bounce>
        <restitution_coefficient>0</restitution_coefficient>
        <threshold>1e+06</threshold>
      </bounce>
      <contact>
        <ode>
          <max_vel>10</max_vel>
        </ode>
      </contact>
    </surface>
  </link>
  <joint name="RR_r21_roller_joint" type="continuous">
    <origin rpy="-1.1e-05 -0.448724 4.6e-05" xyz="-0.028702 -0.0127 0.059437"/>
    <parent link="RR_roller_group_link"/>
    <child link="RR_r21_roller_link"/>
    <axis xyz="1 0 0"/>
  </joint>
  <link name="RR_r21_roller_link">
    <visual>
      <geometry>
        <mesh filename="package://ul_omnibot/description/meshes/roller.dae"/>
      </geometry>
      <material name="white"/>
    </visual>
    <collision>
      <max_contacts>10</max_contacts>
      <geometry>
        <mesh filename="package://ul_omnibot/description/meshes/roller.stl"/>
      </geometry>
    </collision>
    <inertial>
      <origin xyz="0.0 0.0 0.0"/>
      <mass value="0.009"/>
      <inertia ixx="0.166667" ixy="0" ixz="0" iyy="0.166667" iyz="0" izz="0.166667"/>
    </inertial>
    <surface>
      <friction>
        <ode>
          <mu>1</mu>
          <mu2>1</mu2>
          <kp>1e15</kp>
          <kd>1e13</kd>
        </ode>
        <torsional>
          <coefficient>1</coefficient>
          <patch_radius>0</patch_radius>
          <surface_radius>0</surface_radius>
          <use_patch_radius>1</use_patch_radius>
          <ode>
            <slip>0</slip>
          </ode>
        </torsional>
      </friction>
      <bounce>
        <restitution_coefficient>0</restitution_coefficient>
        <threshold>1e+06</threshold>
      </bounce>
      <contact>
        <ode>
          <max_vel>10</max_vel>
        </ode>
      </contact>
    </surface>
  </link>
  <joint name="RR_r22_roller_joint" type="continuous">
    <origin rpy="-0.000123 -1.11701 0.000198" xyz="-0.05969 0.0127 0.028447"/>
    <parent link="RR_roller_group_link"/>
    <child link="RR_r22_roller_link"/>
    <axis xyz="1 0 0"/>
  </joint>
  <link name="RR_r22_roller_link">
    <visual>
      <geometry>
        <mesh filename="package://ul_omnibot/description/meshes/roller.dae"/>
      </geometry>
      <material name="white"/>
    </visual>
    <collision>
      <max_contacts>10</max_contacts>
      <geometry>
        <mesh filename="package://ul_omnibot/description/meshes/roller.stl"/>
      </geometry>
    </collision>
    <inertial>
      <origin xyz="0.0 0.0 0.0"/>
      <mass value="0.009"/>
      <inertia ixx="0.166667" ixy="0" ixz="0" iyy="0.166667" iyz="0" izz="0.166667"/>
    </inertial>
    <surface>
      <friction>
        <ode>
          <mu>1</mu>
          <mu2>1</mu2>
          <kp>1e15</kp>
          <kd>1e13</kd>
        </ode>
        <torsional>
          <coefficient>1</coefficient>
          <patch_radius>0</patch_radius>
          <surface_radius>0</surface_radius>
          <use_patch_radius>1</use_patch_radius>
          <ode>
            <slip>0</slip>
          </ode>
        </torsional>
      </friction>
      <bounce>
        <restitution_coefficient>0</restitution_coefficient>
        <threshold>1e+06</threshold>
      </bounce>
      <contact>
        <ode>
          <max_vel>10</max_vel>
        </ode>
      </contact>
    </surface>
  </link>
  <joint name="RR_r23_roller_joint" type="continuous">
    <origin rpy="-1.1e-05 0.448724 -4.6e-05" xyz="0.028702 -0.0127 0.059437"/>
    <parent link="RR_roller_group_link"/>
    <child link="RR_r23_roller_link"/>
    <axis xyz="1 0 0"/>
  </joint>
  <link name="RR_r23_roller_link">
    <visual>
      <geometry>
        <mesh filename="package://ul_omnibot/description/meshes/roller.dae"/>
      </geometry>
      <material name="white"/>
    </visual>
    <collision>
      <max_contacts>10</max_contacts>
      <geometry>
        <mesh filename="package://ul_omnibot/description/meshes/roller.stl"/>
      </geometry>
    </collision>
    <inertial>
      <origin xyz="0.0 0.0 0.0"/>
      <mass value="0.009"/>
      <inertia ixx="0.166667" ixy="0" ixz="0" iyy="0.166667" iyz="0" izz="0.166667"/>
    </inertial>
    <surface>
      <friction>
        <ode>
          <mu>1</mu>
          <mu2>1</mu2>
          <kp>1e15</kp>
          <kd>1e13</kd>
        </ode>
        <torsional>
          <coefficient>1</coefficient>
          <patch_radius>0</patch_radius>
          <surface_radius>0</surface_radius>
          <use_patch_radius>1</use_patch_radius>
          <ode>
            <slip>0</slip>
          </ode>
        </torsional>
      </friction>
      <bounce>
        <restitution_coefficient>0</restitution_coefficient>
        <threshold>1e+06</threshold>
      </bounce>
      <contact>
        <ode>
          <max_vel>10</max_vel>
        </ode>
      </contact>
    </surface>
  </link>
  <joint name="RR_r24_roller_joint" type="continuous">
    <origin rpy="-5.8e-05 -0.897622 0.000121" xyz="-0.051562 -0.0127 0.041149"/>
    <parent link="RR_roller_group_link"/>
    <child link="RR_r24_roller_link"/>
    <axis xyz="1 0 0"/>
  </joint>
  <link name="RR_r24_roller_link">
    <visual>
      <geometry>
        <mesh filename="package://ul_omnibot/description/meshes/roller.dae"/>
      </geometry>
      <material name="white"/>
    </visual>
    <collision>
      <max_contacts>10</max_contacts>
      <geometry>
        <mesh filename="package://ul_omnibot/description/meshes/roller.stl"/>
      </geometry>
    </collision>
    <inertial>
      <origin xyz="0.0 0.0 0.0"/>
      <mass value="0.009"/>
      <inertia ixx="0.166667" ixy="0" ixz="0" iyy="0.166667" iyz="0" izz="0.166667"/>
    </inertial>
    <surface>
      <friction>
        <ode>
          <mu>1</mu>
          <mu2>1</mu2>
          <kp>1e15</kp>
          <kd>1e13</kd>
        </ode>
        <torsional>
          <coefficient>1</coefficient>
          <patch_radius>0</patch_radius>
          <surface_radius>0</surface_radius>
          <use_patch_radius>1</use_patch_radius>
          <ode>
            <slip>0</slip>
          </ode>
        </torsional>
      </friction>
      <bounce>
        <restitution_coefficient>0</restitution_coefficient>
        <threshold>1e+06</threshold>
      </bounce>
      <contact>
        <ode>
          <max_vel>10</max_vel>
        </ode>
      </contact>
    </surface>
  </link>
  <joint name="RR_r25_roller_joint" type="continuous">
    <origin rpy="-5.8e-05 0.897622 -0.000121" xyz="0.051562 -0.0127 0.041149"/>
    <parent link="RR_roller_group_link"/>
    <child link="RR_r25_roller_link"/>
    <axis xyz="1 0 0"/>
  </joint>
  <link name="RR_r25_roller_link">
    <visual>
      <geometry>
        <mesh filename="package://ul_omnibot/description/meshes/roller.dae"/>
      </geometry>
      <material name="white"/>
    </visual>
    <collision>
      <max_contacts>10</max_contacts>
      <geometry>
        <mesh filename="package://ul_omnibot/description/meshes/roller.stl"/>
      </geometry>
    </collision>
    <inertial>
      <origin xyz="0.0 0.0 0.0"/>
      <mass value="0.009"/>
      <inertia ixx="0.166667" ixy="0" ixz="0" iyy="0.166667" iyz="0" izz="0.166667"/>
    </inertial>
    <surface>
      <friction>
        <ode>
          <mu>1</mu>
          <mu2>1</mu2>
          <kp>1e15</kp>
          <kd>1e13</kd>
        </ode>
        <torsional>
          <coefficient>1</coefficient>
          <patch_radius>0</patch_radius>
          <surface_radius>0</surface_radius>
          <use_patch_radius>1</use_patch_radius>
          <ode>
            <slip>0</slip>
          </ode>
        </torsional>
      </friction>
      <bounce>
        <restitution_coefficient>0</restitution_coefficient>
        <threshold>1e+06</threshold>
      </bounce>
      <contact>
        <ode>
          <max_vel>10</max_vel>
        </ode>
      </contact>
    </surface>
  </link>
  <joint name="RR_r26_roller_joint" type="continuous">
    <origin rpy="-0.000337 -1.34635 0.000422" xyz="-0.064262 -0.0127 0.014733"/>
    <parent link="RR_roller_group_link"/>
    <child link="RR_r26_roller_link"/>
    <axis xyz="1 0 0"/>
  </joint>
  <link name="RR_r26_roller_link">
    <visual>
      <geometry>
        <mesh filename="package://ul_omnibot/description/meshes/roller.dae"/>
      </geometry>
      <material name="white"/>
    </visual>
    <collision>
      <max_contacts>10</max_contacts>
      <geometry>
        <mesh filename="package://ul_omnibot/description/meshes/roller.stl"/>
      </geometry>
    </collision>
    <inertial>
      <origin xyz="0.0 0.0 0.0"/>
      <mass value="0.009"/>
      <inertia ixx="0.166667" ixy="0" ixz="0" iyy="0.166667" iyz="0" izz="0.166667"/>
    </inertial>
    <surface>
      <friction>
        <ode>
          <mu>1</mu>
          <mu2>1</mu2>
          <kp>1e15</kp>
          <kd>1e13</kd>
        </ode>
        <torsional>
          <coefficient>1</coefficient>
          <patch_radius>0</patch_radius>
          <surface_radius>0</surface_radius>
          <use_patch_radius>1</use_patch_radius>
          <ode>
            <slip>0</slip>
          </ode>
        </torsional>
      </friction>
      <bounce>
        <restitution_coefficient>0</restitution_coefficient>
        <threshold>1e+06</threshold>
      </bounce>
      <contact>
        <ode>
          <max_vel>10</max_vel>
        </ode>
      </contact>
    </surface>
  </link>
  <joint name="RR_r27_roller_joint" type="continuous">
    <origin rpy="-0.000337 1.34635 -0.000422" xyz="0.064262 -0.0127 0.014733"/>
    <parent link="RR_roller_group_link"/>
    <child link="RR_r27_roller_link"/>
    <axis xyz="1 0 0"/>
  </joint>
  <link name="RR_r27_roller_link">
    <visual>
      <geometry>
        <mesh filename="package://ul_omnibot/description/meshes/roller.dae"/>
      </geometry>
      <material name="white"/>
    </visual>
    <collision>
      <max_contacts>10</max_contacts>
      <geometry>
        <mesh filename="package://ul_omnibot/description/meshes/roller.stl"/>
      </geometry>
    </collision>
    <inertial>
      <origin xyz="0.0 0.0 0.0"/>
      <mass value="0.009"/>
      <inertia ixx="0.166667" ixy="0" ixz="0" iyy="0.166667" iyz="0" izz="0.166667"/>
    </inertial>
    <surface>
      <friction>
        <ode>
          <mu>1</mu>
          <mu2>1</mu2>
          <kp>1e15</kp>
          <kd>1e13</kd>
        </ode>
        <torsional>
          <coefficient>1</coefficient>
          <patch_radius>0</patch_radius>
          <surface_radius>0</surface_radius>
          <use_patch_radius>1</use_patch_radius>
          <ode>
            <slip>0</slip>
          </ode>
        </torsional>
      </friction>
      <bounce>
        <restitution_coefficient>0</restitution_coefficient>
        <threshold>1e+06</threshold>
      </bounce>
      <contact>
        <ode>
          <max_vel>10</max_vel>
        </ode>
      </contact>
    </surface>
  </link>
  <joint name="RR_r28_roller_joint" type="continuous">
    <origin rpy="-3.1414 3e-06 -3.14159" xyz="0 -0.0127 -0.066039"/>
    <parent link="RR_roller_group_link"/>
    <child link="RR_r28_roller_link"/>
    <axis xyz="1 0 0"/>
  </joint>
  <link name="RR_r28_roller_link">
    <visual>
      <geometry>
        <mesh filename="package://ul_omnibot/description/meshes/roller.dae"/>
      </geometry>
      <material name="white"/>
    </visual>
    <collision>
      <max_contacts>10</max_contacts>
      <geometry>
        <mesh filename="package://ul_omnibot/description/meshes/roller.stl"/>
      </geometry>
    </collision>
    <inertial>
      <origin xyz="0.0 0.0 0.0"/>
      <mass value="0.009"/>
      <inertia ixx="0.166667" ixy="0" ixz="0" iyy="0.166667" iyz="0" izz="0.166667"/>
    </inertial>
    <surface>
      <friction>
        <ode>
          <mu>1</mu>
          <mu2>1</mu2>
          <kp>1e15</kp>
          <kd>1e13</kd>
        </ode>
        <torsional>
          <coefficient>1</coefficient>
          <patch_radius>0</patch_radius>
          <surface_radius>0</surface_radius>
          <use_patch_radius>1</use_patch_radius>
          <ode>
            <slip>0</slip>
          </ode>
        </torsional>
      </friction>
      <bounce>
        <restitution_coefficient>0</restitution_coefficient>
        <threshold>1e+06</threshold>
      </bounce>
      <contact>
        <ode>
          <max_vel>10</max_vel>
        </ode>
      </contact>
    </surface>
  </link>
  <transmission name="RR_wheel_trans">
    <type>transmission_interface/SimpleTransmission</type>
    <joint name="RR_wheel_joint">
      <hardware_interface>hardware_interface/VelocityJointInterface</hardware_interface>
    </joint>
    <actuator name="RR_wheel_motor">
      <hardware_interface>hardware_interface/VelocityJointInterface</hardware_interface>
      <mechanicalReduction>30</mechanicalReduction>
    </actuator>
  </transmission>
  <gazebo reference="RR_wheel_link">
    <selfCollide>false</selfCollide>
    <mu1 value="0.8"/>
    <mu2 value="0.8"/>
    <material>Gazebo/Red</material>
  </gazebo>
  <!-- GAZEBO -->
  <gazebo>
    <plugin filename="libgazebo_ros2_control.so" name="gazebo_ros2_control">
      <parameters>[local-path]/ros2_ws/src/ul_omnibot/config/controller.yaml</parameters>
    </plugin>
  </gazebo>
  <!-- ROS2 CONTROL -->
  <ros2_control name="GazeboSystem" type="system">
    <hardware>
      <plugin>gazebo_ros2_control/GazeboSystem</plugin>
    </hardware>
    <joint name="FL_wheel_joint">
      <command_interface name="velocity">
            </command_interface>
      <state_interface name="velocity"/>
    </joint>
    <joint name="RL_wheel_joint">
      <command_interface name="velocity">
            </command_interface>
      <state_interface name="velocity"/>
    </joint>
    <joint name="RR_wheel_joint">
      <command_interface name="velocity">
            </command_interface>
      <state_interface name="velocity"/>
    </joint>
    <joint name="FR_wheel_joint">
      <command_interface name="velocity">
            </command_interface>
      <state_interface name="velocity"/>
    </joint>
  </ros2_control>
  <!-- <xacro:include filename="gazebo_control.xacro"/> -->
</robot>
